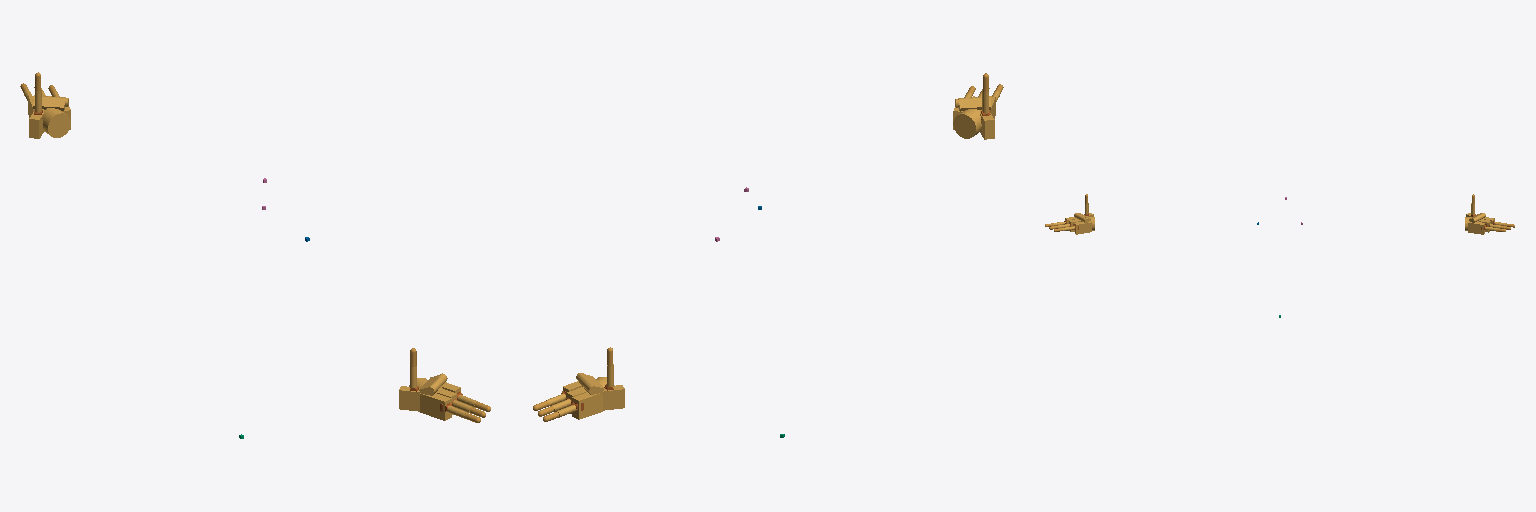
--- Render facts (derived) ---
The picture shows the robot from 3 angles, left to right: view 1: azimuth 30°, elevation 25°; view 2: azimuth 150°, elevation 25°; view 3: azimuth 270°, elevation 25°; orthographic projection.
Robot: atlas — 111 links, 110 joints (52 revolute, 1 continuous, 57 fixed); root link pelvis; default pose: every joint at zero.
Links seen in each view (by area): view 1: right_palm, left_palm; view 2: left_palm, right_palm; view 3: none.
Boxes of the visible links, x1,y1,x2,y2 form: right_palm: (399,373,460,420); left_palm: (28,95,70,138); left_palm: (563,373,624,419); right_palm: (953,96,995,139).
Size in the robot's own frame: 0.2424 by 2.6 by 0.7741 metres.
0 mesh visuals loaded from 31 distinct referenced files (none loaded); not drawn: 31 (reference not matched to a file when rendering).

robot.urdf — atlas:
<?xml version="1.0" ?>
<!-- =================================================================================== -->
<!-- |    This document was autogenerated by xacro from /opt/ros/groovy/share/atlas_description/robots/atlas_v3_sandia_hands.urdf.xacro | -->
<!-- |    EDITING THIS FILE BY HAND IS NOT RECOMMENDED                                 | -->
<!-- =================================================================================== -->
<robot name="atlas" xmlns:xacro="http://www.ros.org/wiki/xacro">
  <link name="l_clav">
    <inertial>
      <mass value="3.45"/>
      <origin rpy="0 -0 0" xyz="0 0.048 0.084"/>
      <inertia ixx="0.011" ixy="0" ixz="0" iyy="0.009" iyz="-0.004" izz="0.004"/>
    </inertial>
    <visual>
      <origin rpy="0 -0 0" xyz="0 0 0"/>
      <geometry>
        <mesh filename="package://atlas_description/meshes_v3/l_clav.DAE" scale="1 1 1"/>
      </geometry>
    </visual>
    <collision>
      <origin rpy="0 -0 0" xyz="0 0 0"/>
      <geometry>
        <mesh filename="package://atlas_description/meshes_v3/l_clav.DAE" scale="1 1 1"/>
      </geometry>
    </collision>
  </link>
  <link name="l_farm">
    <inertial>
      <mass value="3.388"/>
      <origin rpy="0 -0 0" xyz="0 -0.065 0"/>
      <inertia ixx="0.00656" ixy="0" ixz="0" iyy="0.00358" iyz="0" izz="0.00656"/>
    </inertial>
    <visual>
      <origin rpy="0 -0 0" xyz="0 0 0"/>
      <geometry>
        <mesh filename="package://atlas_description/meshes_v3/l_farm.DAE" scale="1 1 1"/>
      </geometry>
    </visual>
    <collision>
      <origin rpy="0 -0 0" xyz="0 0 0"/>
      <geometry>
        <mesh filename="package://atlas_description/meshes_v3/l_farm.DAE" scale="1 1 1"/>
      </geometry>
    </collision>
  </link>
  <link name="l_foot">
    <inertial>
      <mass value="2.05"/>
      <origin rpy="0 -0 0" xyz="0.027 0 -0.067"/>
      <inertia ixx="0.002" ixy="0" ixz="0" iyy="0.007" iyz="0" izz="0.008"/>
    </inertial>
    <visual>
      <origin rpy="0 -0 0" xyz="0 0 0"/>
      <geometry>
        <mesh filename="package://atlas_description/meshes_v3/l_foot.DAE" scale="1 1 1"/>
      </geometry>
    </visual>
    <collision>
      <origin rpy="0 -0 0" xyz="0 0 0"/>
      <geometry>
        <mesh filename="package://atlas_description/meshes_v3/l_foot.DAE" scale="1 1 1"/>
      </geometry>
    </collision>
  </link>
  <link name="l_hand">
    <inertial>
      <mass value="2.509"/>
      <origin rpy="0 -0 0" xyz="0 0 0"/>
      <inertia ixx="0.00265" ixy="0" ixz="0" iyy="0.00446" iyz="0" izz="0.00446"/>
    </inertial>
    <visual>
      <origin rpy="0 -0 0" xyz="0 0 0"/>
      <geometry>
        <mesh filename="package://atlas_description/meshes_v3/l_hand.DAE" scale="1 1 1"/>
      </geometry>
    </visual>
    <collision>
      <origin rpy="0 -0 0" xyz="0 0 0"/>
      <geometry>
        <mesh filename="package://atlas_description/meshes_v3/l_hand.DAE" scale="1 1 1"/>
      </geometry>
    </collision>
  </link>
  <link name="l_larm">
    <inertial>
      <mass value="2.509"/>
      <origin rpy="0 -0 0" xyz="0 0 0"/>
      <inertia ixx="0.00265" ixy="0" ixz="0" iyy="0.00446" iyz="0" izz="0.00446"/>
    </inertial>
    <visual>
      <origin rpy="0 -0 0" xyz="0 0 0"/>
      <geometry>
        <mesh filename="package://atlas_description/meshes_v3/l_elbow_rx.DAE" scale="1 1 1"/>
      </geometry>
    </visual>
    <collision>
      <origin rpy="0 -0 0" xyz="0 0 0"/>
      <geometry>
        <mesh filename="package://atlas_description/meshes_v3/l_elbow_rx.DAE" scale="1 1 1"/>
      </geometry>
    </collision>
  </link>
  <link name="l_lglut">
    <inertial>
      <mass value="0.866"/>
      <origin rpy="0 -0 0" xyz="0.0133341 0.0170484 -0.0312052"/>
      <inertia ixx="0.000691326" ixy="-2.24344e-05" ixz="2.50508e-06" iyy="0.00126856" iyz="0.000137862" izz="0.00106487"/>
    </inertial>
    <visual>
      <origin rpy="0 -0 0" xyz="0 0 0"/>
      <geometry>
        <mesh filename="package://atlas_description/meshes_v3/l_lglut.DAE" scale="1 1 1"/>
      </geometry>
    </visual>
    <collision>
      <origin rpy="0 -0 0" xyz="0 0 0"/>
      <geometry>
        <mesh filename="package://atlas_description/meshes_v3/l_lglut.DAE" scale="1 1 1"/>
      </geometry>
    </collision>
  </link>
  <link name="l_lleg">
    <inertial>
      <mass value="5.479"/>
      <origin rpy="0 -0 0" xyz="0.001 0 -0.187"/>
      <inertia ixx="0.077" ixy="0" ixz="-0.003" iyy="0.076" iyz="0" izz="0.01"/>
    </inertial>
    <visual>
      <origin rpy="0 -0 0" xyz="0 0 0"/>
      <geometry>
        <mesh filename="package://atlas_description/meshes_v3/l_lleg.DAE" scale="1 1 1"/>
      </geometry>
    </visual>
    <collision>
      <origin rpy="0 -0 0" xyz="0 0 0"/>
      <geometry>
        <mesh filename="package://atlas_description/meshes_v3/l_lleg.DAE" scale="1 1 1"/>
      </geometry>
    </collision>
  </link>
  <link name="l_scap">
    <inertial>
      <mass value="3.012"/>
      <origin rpy="0 -0 0" xyz="0 0 0"/>
      <inertia ixx="0.00319" ixy="0" ixz="0" iyy="0.00583" iyz="0" izz="0.00583"/>
    </inertial>
    <visual>
      <origin rpy="0 -0 0" xyz="0 0 0"/>
      <geometry>
        <mesh filename="package://atlas_description/meshes_v3/l_sh_rx.DAE" scale="1 1 1"/>
      </geometry>
    </visual>
    <collision>
      <origin rpy="0 -0 0" xyz="0 0 0"/>
      <geometry>
        <mesh filename="package://atlas_description/meshes_v3/l_sh_rx.DAE" scale="1 1 1"/>
      </geometry>
    </collision>
  </link>
  <link name="l_talus">
    <inertial>
      <mass value="0.125"/>
      <origin rpy="0 -0 0" xyz="0 0 0"/>
      <inertia ixx="1.01674e-05" ixy="0" ixz="0" iyy="8.42775e-06" iyz="0" izz="1.30101e-05"/>
    </inertial>
    <visual>
      <origin rpy="0 -0 0" xyz="0 0 0"/>
      <geometry>
        <mesh filename="package://atlas_description/meshes_v3/l_talus.DAE" scale="1 1 1"/>
      </geometry>
    </visual>
    <collision>
      <origin rpy="0 -0 0" xyz="0 0 0"/>
      <geometry>
        <mesh filename="package://atlas_description/meshes_v3/l_talus.DAE" scale="1 1 1"/>
      </geometry>
    </collision>
  </link>
  <link name="l_uarm">
    <inertial>
      <mass value="3.388"/>
      <origin rpy="0 -0 0" xyz="0 -0.065 0"/>
      <inertia ixx="0.00656" ixy="0" ixz="0" iyy="0.00358" iyz="0" izz="0.00656"/>
    </inertial>
    <visual>
      <origin rpy="0 -0 0" xyz="0 0 0"/>
      <geometry>
        <mesh filename="package://atlas_description/meshes_v3/l_elbow_ry.DAE" scale="1 1 1"/>
      </geometry>
    </visual>
    <collision>
      <origin rpy="0 -0 0" xyz="0 0 0"/>
      <geometry>
        <mesh filename="package://atlas_description/meshes_v3/l_elbow_ry.DAE" scale="1 1 1"/>
      </geometry>
    </collision>
  </link>
  <link name="l_uglut">
    <inertial>
      <mass value="0.648"/>
      <origin rpy="0 -0 0" xyz="0.00529262 -0.00344732 0.00313046"/>
      <inertia ixx="0.00074276" ixy="-3.79607e-08" ixz="-2.79549e-05" iyy="0.000688179" iyz="-3.2735e-08" izz="0.00041242"/>
    </inertial>
    <visual>
      <origin rpy="0 -0 0" xyz="0 0 0"/>
      <geometry>
        <mesh filename="package://atlas_description/meshes_v3/l_uglut.DAE" scale="1 1 1"/>
      </geometry>
    </visual>
    <collision>
      <origin rpy="0 -0 0" xyz="0 0 0"/>
      <geometry>
        <mesh filename="package://atlas_description/meshes_v3/l_uglut.DAE" scale="1 1 1"/>
      </geometry>
    </collision>
  </link>
  <link name="l_uleg">
    <inertial>
      <mass value="9.209"/>
      <origin rpy="0 -0 0" xyz="0 0 -0.21"/>
      <inertia ixx="0.09" ixy="0" ixz="0" iyy="0.09" iyz="0" izz="0.02"/>
    </inertial>
    <visual>
      <origin rpy="0 -0 0" xyz="0 0 0"/>
      <geometry>
        <mesh filename="package://atlas_description/meshes_v3/l_uleg.DAE" scale="1 1 1"/>
      </geometry>
    </visual>
    <collision>
      <origin rpy="0 -0 0" xyz="0 0 0"/>
      <geometry>
        <mesh filename="package://atlas_description/meshes_v3/l_uleg.DAE" scale="1 1 1"/>
      </geometry>
    </collision>
  </link>
  <link name="ltorso">
    <inertial>
      <mass value="2.409"/>
      <origin rpy="0 -0 0" xyz="-0.0112984 -3.15366e-06 0.0746835"/>
      <inertia ixx="0.0039092" ixy="-5.04491e-08" ixz="-0.000342157" iyy="0.00341694" iyz="4.87119e-07" izz="0.00174492"/>
    </inertial>
    <visual>
      <origin rpy="0 -0 0" xyz="0 0 0"/>
      <geometry>
        <mesh filename="package://atlas_description/meshes_v3/ltorso.DAE" scale="1 1 1"/>
      </geometry>
    </visual>
    <collision>
      <origin rpy="0 -0 0" xyz="0 0 0"/>
      <geometry>
        <mesh filename="package://atlas_description/meshes_v3/ltorso.DAE" scale="1 1 1"/>
      </geometry>
    </collision>
  </link>
  <link name="mtorso">
    <inertial>
      <mass value="0.69"/>
      <origin rpy="0 -0 0" xyz="-0.00816266 -0.0131245 0.0305974"/>
      <inertia ixx="0.000454181" ixy="-6.10764e-05" ixz="3.94009e-05" iyy="0.000483282" iyz="5.27463e-05" izz="0.000444215"/>
    </inertial>
    <visual>
      <origin rpy="0 -0 0" xyz="0 0 0"/>
      <geometry>
        <mesh filename="package://atlas_description/meshes_v3/mtorso.DAE" scale="1 1 1"/>
      </geometry>
    </visual>
    <collision>
      <origin rpy="0 -0 0" xyz="0 0 0"/>
      <geometry>
        <mesh filename="package://atlas_description/meshes_v3/mtorso.DAE" scale="1 1 1"/>
      </geometry>
    </collision>
  </link>
  <link name="pelvis">
    <inertial>
      <mass value="17.882"/>
      <origin rpy="0 -0 0" xyz="0.0111 0 0.0271"/>
      <inertia ixx="0.1244" ixy="0.0008" ixz="-0.0007" iyy="0.0958" iyz="-0.0005" izz="0.1167"/>
    </inertial>
    <visual>
      <origin rpy="0 -0 0" xyz="0 0 0"/>
      <geometry>
        <mesh filename="package://atlas_description/meshes_v3/pelvis.DAE" scale="1 1 1"/>
      </geometry>
    </visual>
    <collision>
      <origin rpy="0 -0 0" xyz="0 0 0"/>
      <geometry>
        <mesh filename="package://atlas_description/meshes_v3/pelvis.DAE" scale="1 1 1"/>
      </geometry>
    </collision>
  </link>
  <link name="r_clav">
    <inertial>
      <mass value="3.45"/>
      <origin rpy="0 -0 0" xyz="0 -0.048 0.084"/>
      <inertia ixx="0.011" ixy="0" ixz="0" iyy="0.009" iyz="0.004" izz="0.004"/>
    </inertial>
    <visual>
      <origin rpy="0 -0 0" xyz="0 0 0"/>
      <geometry>
        <mesh filename="package://atlas_description/meshes_v3/r_clav.DAE" scale="1 1 1"/>
      </geometry>
    </visual>
    <collision>
      <origin rpy="0 -0 0" xyz="0 0 0"/>
      <geometry>
        <mesh filename="package://atlas_description/meshes_v3/r_clav.DAE" scale="1 1 1"/>
      </geometry>
    </collision>
  </link>
  <link name="r_farm">
    <inertial>
      <mass value="3.388"/>
      <origin rpy="0 -0 0" xyz="0 0.065 0"/>
      <inertia ixx="0.00656" ixy="0" ixz="0" iyy="0.00358" iyz="0" izz="0.00656"/>
    </inertial>
    <visual>
      <origin rpy="0 -0 0" xyz="0 0 0"/>
      <geometry>
        <mesh filename="package://atlas_description/meshes_v3/r_farm.DAE" scale="1 1 1"/>
      </geometry>
    </visual>
    <collision>
      <origin rpy="0 -0 0" xyz="0 0 0"/>
      <geometry>
        <mesh filename="package://atlas_description/meshes_v3/r_farm.DAE" scale="1 1 1"/>
      </geometry>
    </collision>
  </link>
  <link name="r_foot">
    <inertial>
      <mass value="2.05"/>
      <origin rpy="0 -0 0" xyz="0.027 0 -0.067"/>
      <inertia ixx="0.002" ixy="0" ixz="0" iyy="0.007" iyz="0" izz="0.008"/>
    </inertial>
    <visual>
      <origin rpy="0 -0 0" xyz="0 0 0"/>
      <geometry>
        <mesh filename="package://atlas_description/meshes_v3/r_foot.DAE" scale="1 1 1"/>
      </geometry>
    </visual>
    <collision>
      <origin rpy="0 -0 0" xyz="0 0 0"/>
      <geometry>
        <mesh filename="package://atlas_description/meshes_v3/r_foot.DAE" scale="1 1 1"/>
      </geometry>
    </collision>
  </link>
  <link name="r_hand">
    <inertial>
      <mass value="2.509"/>
      <origin rpy="0 -0 0" xyz="0 0 0"/>
      <inertia ixx="0.00265" ixy="0" ixz="0" iyy="0.00446" iyz="0" izz="0.00446"/>
    </inertial>
    <visual>
      <origin rpy="0 -0 0" xyz="0 0 0"/>
      <geometry>
        <mesh filename="package://atlas_description/meshes_v3/r_hand.DAE" scale="1 1 1"/>
      </geometry>
    </visual>
    <collision>
      <origin rpy="0 -0 0" xyz="0 0 0"/>
      <geometry>
        <mesh filename="package://atlas_description/meshes_v3/r_hand.DAE" scale="1 1 1"/>
      </geometry>
    </collision>
  </link>
  <link name="r_larm">
    <inertial>
      <mass value="2.509"/>
      <origin rpy="0 -0 0" xyz="0 0 0"/>
      <inertia ixx="0.00265" ixy="0" ixz="0" iyy="0.00446" iyz="0" izz="0.00446"/>
    </inertial>
    <visual>
      <origin rpy="0 -0 0" xyz="0 0 0"/>
      <geometry>
        <mesh filename="package://atlas_description/meshes_v3/r_elbow_rx.DAE" scale="1 1 1"/>
      </geometry>
    </visual>
    <collision>
      <origin rpy="0 -0 0" xyz="0 0 0"/>
      <geometry>
        <mesh filename="package://atlas_description/meshes_v3/r_elbow_rx.DAE" scale="1 1 1"/>
      </geometry>
    </collision>
  </link>
  <link name="r_lglut">
    <inertial>
      <mass value="0.866"/>
      <origin rpy="0 -0 0" xyz="0.0133341 -0.0170484 -0.0312052"/>
      <inertia ixx="0.000691326" ixy="2.24344e-05" ixz="2.50508e-06" iyy="0.00126856" iyz="-0.000137862" izz="0.00106487"/>
    </inertial>
    <visual>
      <origin rpy="0 -0 0" xyz="0 0 0"/>
      <geometry>
        <mesh filename="package://atlas_description/meshes_v3/r_lglut.DAE" scale="1 1 1"/>
      </geometry>
    </visual>
    <collision>
      <origin rpy="0 -0 0" xyz="0 0 0"/>
      <geometry>
        <mesh filename="package://atlas_description/meshes_v3/r_lglut.DAE" scale="1 1 1"/>
      </geometry>
    </collision>
  </link>
  <link name="r_lleg">
    <inertial>
      <mass value="5.479"/>
      <origin rpy="0 -0 0" xyz="0.001 0 -0.187"/>
      <inertia ixx="0.077" ixy="-0" ixz="-0.003" iyy="0.076" iyz="-0" izz="0.01"/>
    </inertial>
    <visual>
      <origin rpy="0 -0 0" xyz="0 0 0"/>
      <geometry>
        <mesh filename="package://atlas_description/meshes_v3/r_lleg.DAE" scale="1 1 1"/>
      </geometry>
    </visual>
    <collision>
      <origin rpy="0 -0 0" xyz="0 0 0"/>
      <geometry>
        <mesh filename="package://atlas_description/meshes_v3/r_lleg.DAE" scale="1 1 1"/>
      </geometry>
    </collision>
  </link>
  <link name="r_scap">
    <inertial>
      <mass value="3.012"/>
      <origin rpy="0 -0 0" xyz="0 0 0"/>
      <inertia ixx="0.00319" ixy="0" ixz="0" iyy="0.00583" iyz="0" izz="0.00583"/>
    </inertial>
    <visual>
      <origin rpy="0 -0 0" xyz="0 0 0"/>
      <geometry>
        <mesh filename="package://atlas_description/meshes_v3/r_sh_rx.DAE" scale="1 1 1"/>
      </geometry>
    </visual>
    <collision>
      <origin rpy="0 -0 0" xyz="0 0 0"/>
      <geometry>
        <mesh filename="package://atlas_description/meshes_v3/r_sh_rx.DAE" scale="1 1 1"/>
      </geometry>
    </collision>
  </link>
  <link name="r_talus">
    <inertial>
      <mass value="0.125"/>
      <origin rpy="0 -0 0" xyz="0 0 0"/>
      <inertia ixx="1.01674e-05" ixy="0" ixz="0" iyy="8.42775e-06" iyz="0" izz="1.30101e-05"/>
    </inertial>
    <visual>
      <origin rpy="0 -0 0" xyz="0 0 0"/>
      <geometry>
        <mesh filename="package://atlas_description/meshes_v3/r_talus.DAE" scale="1 1 1"/>
      </geometry>
    </visual>
    <collision>
      <origin rpy="0 -0 0" xyz="0 0 0"/>
      <geometry>
        <mesh filename="package://atlas_description/meshes_v3/r_talus.DAE" scale="1 1 1"/>
      </geometry>
    </collision>
  </link>
  <link name="r_uarm">
    <inertial>
      <mass value="3.388"/>
      <origin rpy="0 -0 0" xyz="0 0.065 0"/>
      <inertia ixx="0.00656" ixy="0" ixz="0" iyy="0.00358" iyz="0" izz="0.00656"/>
    </inertial>
    <visual>
      <origin rpy="0 -0 0" xyz="0 0 0"/>
      <geometry>
        <mesh filename="package://atlas_description/meshes_v3/r_elbow_ry.DAE" scale="1 1 1"/>
      </geometry>
    </visual>
    <collision>
      <origin rpy="0 -0 0" xyz="0 0 0"/>
      <geometry>
        <mesh filename="package://atlas_description/meshes_v3/r_elbow_ry.DAE" scale="1 1 1"/>
      </geometry>
    </collision>
  </link>
  <link name="r_uglut">
    <inertial>
      <mass value="0.648"/>
      <origin rpy="0 -0 0" xyz="0.00529262 0.00344732 0.00313046"/>
      <inertia ixx="0.00074276" ixy="3.79607e-08" ixz="-2.79549e-05" iyy="0.000688179" iyz="3.2735e-08" izz="0.00041242"/>
    </inertial>
    <visual>
      <origin rpy="0 -0 0" xyz="0 0 0"/>
      <geometry>
        <mesh filename="package://atlas_description/meshes_v3/r_uglut.DAE" scale="1 1 1"/>
      </geometry>
    </visual>
    <collision>
      <origin rpy="0 -0 0" xyz="0 0 0"/>
      <geometry>
        <mesh filename="package://atlas_description/meshes_v3/r_uglut.DAE" scale="1 1 1"/>
      </geometry>
    </collision>
  </link>
  <link name="r_uleg">
    <inertial>
      <mass value="9.209"/>
      <origin rpy="0 -0 0" xyz="0 0 -0.21"/>
      <inertia ixx="0.09" ixy="0" ixz="0" iyy="0.09" iyz="0" izz="0.02"/>
    </inertial>
    <visual>
      <origin rpy="0 -0 0" xyz="0 0 0"/>
      <geometry>
        <mesh filename="package://atlas_description/meshes_v3/r_uleg.DAE" scale="1 1 1"/>
      </geometry>
    </visual>
    <collision>
      <origin rpy="0 -0 0" xyz="0 0 0"/>
      <geometry>
        <mesh filename="package://atlas_description/meshes_v3/r_uleg.DAE" scale="1 1 1"/>
      </geometry>
    </collision>
  </link>
  <link name="utorso">
    <inertial>
      <mass value="52.007"/>
      <origin rpy="0 -0 0" xyz="-0.0923 0 0.3"/>
      <inertia ixx="1.466" ixy="0.00362" ixz="0.336" iyy="1.51" iyz="0.001" izz="1.3"/>
    </inertial>
    <visual>
      <origin rpy="0 -0 0" xyz="0 0 0"/>
      <geometry>
        <mesh filename="package://atlas_description/meshes_v3/utorso.DAE" scale="1 1 1"/>
      </geometry>
    </visual>
    <collision>
      <origin rpy="0 -0 0" xyz="0 0 0"/>
      <geometry>
        <mesh filename="package://atlas_description/meshes_v3/utorso.DAE" scale="1 1 1"/>
      </geometry>
    </collision>
    <visual>
      <origin rpy="0 -0 0" xyz="0 0 0"/>
      <geometry>
        <mesh filename="package://atlas_description/meshes_v3/utorso_pack.DAE" scale="1 1 1"/>
      </geometry>
    </visual>
    <collision>
      <origin rpy="0 -0 0" xyz="0 0 0"/>
      <geometry>
        <mesh filename="package://atlas_description/meshes_v3/utorso_pack.DAE" scale="1 1 1"/>
      </geometry>
    </collision>
  </link>
  <joint name="back_bkx" type="revolute">
    <origin rpy="0 -0 0" xyz="0 0 0.05"/>
    <axis xyz="1 0 0"/>
    <parent link="mtorso"/>
    <child link="utorso"/>
    <dynamics damping="0.1" friction="0"/>
    <limit effort="200" lower="-0.698132" upper="0.698132" velocity="12"/>
    <safety_controller k_position="100" k_velocity="100" soft_lower_limit="-10.6981" soft_upper_limit="10.6981"/>
  </joint>
  <joint name="back_bky" type="revolute">
    <origin rpy="0 -0 0" xyz="0 0 0.16197"/>
    <axis xyz="0 1 0"/>
    <parent link="ltorso"/>
    <child link="mtorso"/>
    <dynamics damping="0.1" friction="0"/>
    <limit effort="206.843" lower="-0.610691" upper="0.438427" velocity="12"/>
    <safety_controller k_position="100" k_velocity="100" soft_lower_limit="-10.6107" soft_upper_limit="10.4384"/>
  </joint>
  <joint name="back_bkz" type="revolute">
    <origin rpy="0 -0 0" xyz="-0.0125 0 0"/>
    <axis xyz="0 0 1"/>
    <parent link="pelvis"/>
    <child link="ltorso"/>
    <dynamics damping="0.1" friction="0"/>
    <limit effort="124.016" lower="-0.663225" upper="0.663225" velocity="12"/>
    <safety_controller k_position="100" k_velocity="100" soft_lower_limit="-10.6632" soft_upper_limit="10.6632"/>
  </joint>
  <joint name="l_arm_elx" type="revolute">
    <origin rpy="0 -0 0" xyz="0 0.119 0.00921"/>
    <axis xyz="1 0 0"/>
    <parent link="l_uarm"/>
    <child link="l_larm"/>
    <dynamics damping="0.1" friction="0"/>
    <limit effort="114" lower="0" upper="2.35619" velocity="12"/>
    <safety_controller k_position="100" k_velocity="100" soft_lower_limit="-10" soft_upper_limit="12.3562"/>
  </joint>
  <joint name="l_arm_ely" type="revolute">
    <origin rpy="0 -0 0" xyz="0 0.187 0.016"/>
    <axis xyz="0 1 0"/>
    <parent link="l_scap"/>
    <child link="l_uarm"/>
    <dynamics damping="0.1" friction="0"/>
    <limit effort="114" lower="0" upper="3.14159" velocity="12"/>
    <safety_controller k_position="100" k_velocity="100" soft_lower_limit="-10" soft_upper_limit="13.1416"/>
  </joint>
  <joint name="l_arm_shx" type="revolute">
    <origin rpy="0 -0 0" xyz="0 0.14035 0.19609"/>
    <axis xyz="1 0 0"/>
    <parent link="l_clav"/>
    <child link="l_scap"/>
    <dynamics damping="0.1" friction="0"/>
    <limit effort="170" lower="-1.5708" upper="1.5708" velocity="12"/>
    <safety_controller k_position="100" k_velocity="100" soft_lower_limit="-11.5708" soft_upper_limit="11.5708"/>
  </joint>
  <joint name="l_arm_shy" type="revolute">
    <origin rpy="0 -0 0" xyz="0.06441 0.13866 0.10718"/>
    <axis xyz="0 0.5 0.866025"/>
    <parent link="utorso"/>
    <child link="l_clav"/>
    <dynamics damping="0.1" friction="0"/>
    <limit effort="212" lower="-1.5708" upper="0.785398" velocity="12"/>
    <safety_controller k_position="100" k_velocity="100" soft_lower_limit="-11.5708" soft_upper_limit="10.7854"/>
  </joint>
  <joint name="l_arm_wrx" type="revolute">
    <origin rpy="0 -0 0" xyz="0 0.119 0.00921"/>
    <axis xyz="1 0 0"/>
    <parent link="l_farm"/>
    <child link="l_hand"/>
    <dynamics damping="0.1" friction="0"/>
    <limit effort="60" lower="-1.1781" upper="1.1781" velocity="12"/>
    <safety_controller k_position="100" k_velocity="100" soft_lower_limit="-11.1781" soft_upper_limit="11.1781"/>
  </joint>
  <joint name="l_arm_wry" type="revolute">
    <origin rpy="0 -0 0" xyz="0 0.187 -0.00921"/>
    <axis xyz="0 1 0"/>
    <parent link="l_larm"/>
    <child link="l_farm"/>
    <dynamics damping="0.1" friction="0"/>
    <limit effort="114" lower="0" upper="3.14159" velocity="12"/>
    <safety_controller k_position="100" k_velocity="100" soft_lower_limit="-10" soft_upper_limit="13.1416"/>
  </joint>
  <joint name="l_leg_akx" type="revolute">
    <origin rpy="0 -0 0" xyz="0 0 0"/>
    <axis xyz="1 0 0"/>
    <parent link="l_talus"/>
    <child link="l_foot"/>
    <dynamics damping="0.1" friction="0"/>
    <limit effort="90" lower="-0.8" upper="0.8" velocity="12"/>
    <safety_controller k_position="100" k_velocity="100" soft_lower_limit="-10.8" soft_upper_limit="10.8"/>
  </joint>
  <joint name="l_leg_aky" type="revolute">
    <origin rpy="0 -0 0" xyz="0 0 -0.422"/>
    <axis xyz="0 1 0"/>
    <parent link="l_lleg"/>
    <child link="l_talus"/>
    <dynamics damping="0.1" friction="0"/>
    <limit effort="700" lower="-1" upper="0.7" velocity="12"/>
    <safety_controller k_position="100" k_velocity="100" soft_lower_limit="-11" soft_upper_limit="10.7"/>
  </joint>
  <joint name="l_leg_hpx" type="revolute">
    <origin rpy="0 -0 0" xyz="0 0 0"/>
    <axis xyz="1 0 0"/>
    <parent link="l_uglut"/>
    <child link="l_lglut"/>
    <dynamics damping="0.1" friction="0"/>
    <limit effort="180" lower="-0.523599" upper="0.523599" velocity="12"/>
    <safety_controller k_position="100" k_velocity="100" soft_lower_limit="-10.5236" soft_upper_limit="10.5236"/>
  </joint>
  <joint name="l_leg_hpy" type="revolute">
    <origin rpy="0 -0 0" xyz="0.05 0 -0.05"/>
    <axis xyz="0 1 0"/>
    <parent link="l_lglut"/>
    <child link="l_uleg"/>
    <dynamics damping="0.1" friction="0"/>
    <limit effort="260" lower="-1.72072" upper="0.524821" velocity="12"/>
    <safety_controller k_position="100" k_velocity="100" soft_lower_limit="-11.7207" soft_upper_limit="10.5248"/>
  </joint>
  <joint name="l_leg_hpz" type="revolute">
    <origin rpy="0 -0 0" xyz="0 0.089 0"/>
    <axis xyz="0 0 1"/>
    <parent link="pelvis"/>
    <child link="l_uglut"/>
    <dynamics damping="0.1" friction="0"/>
    <limit effort="110" lower="-0.174533" upper="1.22173" velocity="12"/>
    <safety_controller k_position="100" k_velocity="100" soft_lower_limit="-10.1745" soft_upper_limit="11.2217"/>
  </joint>
  <joint name="l_leg_kny" type="revolute">
    <origin rpy="0 -0 0" xyz="-0.05 0 -0.374"/>
    <axis xyz="0 1 0"/>
    <parent link="l_uleg"/>
    <child link="l_lleg"/>
    <dynamics damping="0.1" friction="0"/>
    <limit effort="220" lower="0" upper="2.38569" velocity="12"/>
    <safety_controller k_position="100" k_velocity="100" soft_lower_limit="-10" soft_upper_limit="12.3857"/>
  </joint>
  <joint name="neck_ry" type="revolute">
    <origin rpy="0 -0 0" xyz="0.21672 0 0.53796"/>
    <axis xyz="0 1 0"/>
    <parent link="utorso"/>
    <child link="head"/>
    <dynamics damping="0.1" friction="0"/>
    <limit effort="5" lower="-0.602139" upper="1.14494" velocity="12"/>
    <safety_controller k_position="100" k_velocity="100" soft_lower_limit="-10.6021" soft_upper_limit="11.1449"/>
  </joint>
  <joint name="r_arm_elx" type="revolute">
    <origin rpy="0 -0 0" xyz="0 -0.119 0.00921"/>
    <axis xyz="1 0 0"/>
    <parent link="r_uarm"/>
    <child link="r_larm"/>
    <dynamics damping="0.1" friction="0"/>
    <limit effort="114" lower="-2.35619" upper="0" velocity="12"/>
    <safety_controller k_position="100" k_velocity="100" soft_lower_limit="-12.3562" soft_upper_limit="10"/>
  </joint>
  <joint name="r_arm_ely" type="revolute">
    <origin rpy="0 -0 0" xyz="0 -0.187 0.016"/>
    <axis xyz="0 1 0"/>
    <parent link="r_scap"/>
    <child link="r_uarm"/>
    <dynamics damping="0.1" friction="0"/>
    <limit effort="114" lower="0" upper="3.14159" velocity="12"/>
    <safety_controller k_position="100" k_velocity="100" soft_lower_limit="-10" soft_upper_limit="13.1416"/>
  </joint>
  <joint name="r_arm_shx" type="revolute">
    <origin rpy="0 -0 0" xyz="0 -0.14035 0.19609"/>
    <axis xyz="1 0 0"/>
    <parent link="r_clav"/>
    <child link="r_scap"/>
    <dynamics damping="0.1" friction="0"/>
    <limit effort="170" lower="-1.5708" upper="1.5708" velocity="12"/>
    <safety_controller k_position="100" k_velocity="100" soft_lower_limit="-11.5708" soft_upper_limit="11.5708"/>
  </joint>
  <joint name="r_arm_shy" type="revolute">
    <origin rpy="0 -0 0" xyz="0.06441 -0.13866 0.10718"/>
    <axis xyz="0 0.5 -0.866025"/>
    <parent link="utorso"/>
    <child link="r_clav"/>
    <dynamics damping="0.1" friction="0"/>
    <limit effort="212" lower="-1.5708" upper="0.785398" velocity="12"/>
    <safety_controller k_position="100" k_velocity="100" soft_lower_limit="-11.5708" soft_upper_limit="10.7854"/>
  </joint>
  <joint name="r_arm_wrx" type="revolute">
    <origin rpy="0 -0 0" xyz="0 -0.119 0.00921"/>
    <axis xyz="1 0 0"/>
    <parent link="r_farm"/>
    <child link="r_hand"/>
    <dynamics damping="0.1" friction="0"/>
    <limit effort="60" lower="-1.1781" upper="1.1781" velocity="12"/>
    <safety_controller k_position="100" k_velocity="100" soft_lower_limit="-11.1781" soft_upper_limit="11.1781"/>
  </joint>
  <joint name="r_arm_wry" type="revolute">
    <origin rpy="0 -0 0" xyz="0 -0.187 -0.00921"/>
    <axis xyz="0 1 0"/>
    <parent link="r_larm"/>
    <child link="r_farm"/>
    <dynamics damping="0.1" friction="0"/>
    <limit effort="114" lower="0" upper="3.14159" velocity="12"/>
    <safety_controller k_position="100" k_velocity="100" soft_lower_limit="-10" soft_upper_limit="13.1416"/>
  </joint>
  <joint name="r_leg_akx" type="revolute">
    <origin rpy="0 -0 0" xyz="0 0 0"/>
    <axis xyz="1 0 0"/>
    <parent link="r_talus"/>
    <child link="r_foot"/>
    <dynamics damping="0.1" friction="0"/>
    <limit effort="90" lower="-0.8" upper="0.8" velocity="12"/>
    <safety_controller k_position="100" k_velocity="100" soft_lower_limit="-10.8" soft_upper_limit="10.8"/>
  </joint>
  <joint name="r_leg_aky" type="revolute">
    <origin rpy="0 -0 0" xyz="0 0 -0.422"/>
    <axis xyz="0 1 0"/>
    <parent link="r_lleg"/>
    <child link="r_talus"/>
    <dynamics damping="0.1" friction="0"/>
    <limit effort="700" lower="-1" upper="0.7" velocity="12"/>
    <safety_controller k_position="100" k_velocity="100" soft_lower_limit="-11" soft_upper_limit="10.7"/>
  </joint>
  <joint name="r_leg_hpx" type="revolute">
    <origin rpy="0 -0 0" xyz="0 0 0"/>
    <axis xyz="1 0 0"/>
    <parent link="r_uglut"/>
    <child link="r_lglut"/>
    <dynamics damping="0.1" friction="0"/>
    <limit effort="180" lower="-0.523599" upper="0.523599" velocity="12"/>
    <safety_controller k_position="100" k_velocity="100" soft_lower_limit="-10.5236" soft_upper_limit="10.5236"/>
  </joint>
  <joint name="r_leg_hpy" type="revolute">
    <origin rpy="0 -0 0" xyz="0.05 0 -0.05"/>
    <axis xyz="0 1 0"/>
    <parent link="r_lglut"/>
    <child link="r_uleg"/>
    <dynamics damping="0.1" friction="0"/>
    <limit effort="260" lower="-1.72072" upper="0.524821" velocity="12"/>
    <safety_controller k_position="100" k_velocity="100" soft_lower_limit="-11.7207" soft_upper_limit="10.5248"/>
  </joint>
  <joint name="r_leg_hpz" type="revolute">
    <origin rpy="0 -0 0" xyz="0 -0.089 0"/>
    <axis xyz="0 0 1"/>
    <parent link="pelvis"/>
    <child link="r_uglut"/>
    <dynamics damping="0.1" friction="0"/>
    <limit effort="110" lower="-1.22173" upper="0.174533" velocity="12"/>
    <safety_controller k_position="100" k_velocity="100" soft_lower_limit="-11.2217" soft_upper_limit="10.1745"/>
  </joint>
  <joint name="r_leg_kny" type="revolute">
    <origin rpy="0 -0 0" xyz="-0.05 0 -0.374"/>
    <axis xyz="0 1 0"/>
    <parent link="r_uleg"/>
    <child link="r_lleg"/>
    <dynamics damping="0.1" friction="0"/>
    <limit effort="220" lower="0" upper="2.38569" velocity="12"/>
    <safety_controller k_position="100" k_velocity="100" soft_lower_limit="-10" soft_upper_limit="12.3857"/>
  </joint>
  <link name="r_situational_awareness_camera_link">
    <inertial>
      <mass value="0.1"/>
      <origin xyz="0 0 0"/>
      <inertia ixx="0.00001" ixy="0" ixz="0" iyy="0.00001" iyz="0" izz="0.00001"/>
    </inertial>
    <visual>
      <origin rpy="0 0 0" xyz="0 0 0"/>
      <geometry>
        <box size="0.01 0.01 0.01"/>
      </geometry>
    </visual>
  </link>
  <joint name="r_situational_awareness_camera_joint" type="fixed">
    <parent link="utorso"/>
    <child link="r_situational_awareness_camera_link"/>
    <!-- if camera points x-forward, bottom towards front of robot, 15 degree yaw forwards from
           lateral (+y) view -->
    <origin rpy="1.57079633 0 -1.30899694" xyz="0.216409 -0.121799 0.406759"/>
  </joint>
  <joint name="r_situational_awareness_camera_optical_frame_joint" type="fixed">
    <origin rpy="-1.5708 0.0 -1.5708" xyz="0 0 0"/>
    <parent link="r_situational_awareness_camera_link"/>
    <child link="r_situational_awareness_camera_optical_frame"/>
  </joint>
  <link name="r_situational_awareness_camera_optical_frame"/>
  <link name="l_situational_awareness_camera_link">
    <inertial>
      <mass value="0.1"/>
      <origin xyz="0 0 0"/>
      <inertia ixx="0.00001" ixy="0" ixz="0" iyy="0.00001" iyz="0" izz="0.00001"/>
    </inertial>
    <visual>
      <origin rpy="0 0 0" xyz="0 0 0"/>
      <geometry>
        <box size="0.01 0.01 0.01"/>
      </geometry>
    </visual>
  </link>
  <joint name="l_situational_awareness_camera_joint" type="fixed">
    <parent link="utorso"/>
    <child link="l_situational_awareness_camera_link"/>
    <!-- if camera points x-forward, bottom towards front of robot, 15 degree yaw forwards from
           lateral (+y) view -->
    <origin rpy="-1.57079633 0 1.30899694" xyz="0.216409 0.121799 0.406759"/>
  </joint>
  <joint name="l_situational_awareness_camera_optical_frame_joint" type="fixed">
    <origin rpy="-1.5708 0.0 -1.5708" xyz="0 0 0"/>
    <parent link="l_situational_awareness_camera_link"/>
    <child link="l_situational_awareness_camera_optical_frame"/>
  </joint>
  <link name="l_situational_awareness_camera_optical_frame"/>
  <link name="right_palm">
    <origin rpy="0 0 0" xyz="0 0 0"/>
    <inertial>
      <mass value="1.303"/>
      <origin xyz="0 0 0"/>
      <!-- solid sphere with 5cm radius -->
      <inertia ixx="0.001303" ixy="0" ixz="0" iyy="0.001303" iyz="0" izz="0.001303"/>
    </inertial>
    <!-- begin simple shape approximation of palm -->
    <collision group="default">
      <origin rpy="0 1.57079632679 -0.9" xyz="0.069 0.016 0.038"/>
      <geometry>
        <cylinder length="0.100" radius="0.013"/>
      </geometry>
    </collision>
    <collision group="other">
      <origin rpy="0.41 0 -0.9" xyz="0.064 0.008 0.021"/>
      <geometry>
        <box size="0.09 .035 .05"/>
      </geometry>
    </collision>
    <collision group="other">
      <origin rpy="0 1.57079632679 0" xyz="0.02 0 -0.005"/>
      <geometry>
        <cylinder length="0.05" radius="0.038"/>
      </geometry>
    </collision>
    <collision group="other">
      <origin rpy="0 0 0.37" xyz="0.11 -0.01 -0.005"/>
      <geometry>
        <box size="0.09 .03 .06"/>
      </geometry>
    </collision>
    <collision group="other">
      <origin rpy="0 0 0.37" xyz="0.09 0.02 -0.005"/>
      <geometry>
        <box size="0.09 .03 .06"/>
      </geometry>
    </collision>
    <collision group="other">
      <origin rpy="0 0 0.37" xyz="0.060 0.05 -0.005"/>
      <geometry>
        <box size="0.09 .03 .06"/>
      </geometry>
    </collision>
    <collision group="other">
      <origin rpy="0 0 0.79" xyz="0.044 -0.04 -0.005"/>
      <geometry>
        <box size="0.09 .03 .06"/>
      </geometry>
    </collision>
    <!--   end simple shape approximation of palm -->
    <!-- begin visual shape approximation of palm -->
    <visual>
      <origin rpy="0 1.57079632679 -0.9" xyz="0.069 0.016 0.038"/>
      <geometry>
        <cylinder length="0.100" radius="0.013"/>
      </geometry>
      <material name="right_sandia_hand_skin">
        <color rgba="0.835 0.655 0.345 1.0"/>
      </material>
    </visual>
    <visual>
      <origin rpy="0.41 0 -0.9" xyz="0.064 0.008 0.021"/>
      <geometry>
        <box size="0.09 .035 .05"/>
      </geometry>
      <material name="right_sandia_hand_skin">
        <color rgba="0.835 0.655 0.345 1.0"/>
      </material>
    </visual>
    <visual>
      <origin rpy="0 1.57079632679 0" xyz="0.02 0 -0.005"/>
      <geometry>
        <cylinder length="0.05" radius="0.038"/>
      </geometry>
      <material name="right_sandia_hand_skin">
        <color rgba="0.835 0.655 0.345 1.0"/>
      </material>
    </visual>
    <visual>
      <origin rpy="0 0 0.37" xyz="0.11 -0.01 -0.005"/>
      <geometry>
        <box size="0.09 .03 .06"/>
      </geometry>
      <material name="right_sandia_hand_skin">
        <color rgba="0.835 0.655 0.345 1.0"/>
      </material>
    </visual>
    <visual>
      <origin rpy="0 0 0.37" xyz="0.09 0.02 -0.005"/>
      <geometry>
        <box size="0.09 .03 .06"/>
      </geometry>
      <material name="right_sandia_hand_skin">
        <color rgba="0.835 0.655 0.345 1.0"/>
      </material>
    </visual>
    <visual>
      <origin rpy="0 0 0.37" xyz="0.060 0.05 -0.005"/>
      <geometry>
        <box size="0.09 .03 .06"/>
      </geometry>
      <material name="right_sandia_hand_skin">
        <color rgba="0.835 0.655 0.345 1.0"/>
      </material>
    </visual>
    <visual>
      <origin rpy="0 0 0.79" xyz="0.044 -0.04 -0.005"/>
      <geometry>
        <box size="0.09 .03 .06"/>
      </geometry>
      <material name="right_sandia_hand_skin">
        <color rgba="0.835 0.655 0.345 1.0"/>
      </material>
    </visual>
    <!--   end visual shape approximation of palm -->
    <!-- begin collision mesh of f2 ->
      <collision group="default">
        <origin xyz="0 0 0" rpy="0 0 0"/>
        <geometry>
          <mesh filename="package://sandia_hand_description/meshes/palm.stl"/>
        </geometry>
      </collision>
      <!-   end collision mesh of f2 -->
    <!-- begin visual mesh of f2    ->
      <visual>
        <origin xyz="0 0 0" rpy="0 0 0"/>
        <geometry>
          <mesh filename="package://sandia_hand_description/meshes/palm.stl"/>
        </geometry>
        <material name="${side}_sandia_hand_skin">
          <color rgba="0.835 0.655 0.345 1.0"/>
        </material>
      </visual>
      <!-   end visual mesh of f2 -->
  </link>
  <joint name="right_sandia_hand_joint" type="fixed">
    <parent link="r_hand"/>
    <child link="right_palm"/>
    <origin rpy="0 0 -1.57079" xyz="-0.00179 -0.13516 0.01176"/>
  </joint>
  <link name="right_f0_base">
    <origin rpy="0 0 0" xyz="0 0 0"/>
    <inertial>
      <!-- total mass is 2.303 kg, palm is about 1.303 kg, distribute the rest into _base -->
      <mass value="0.250"/>
      <!-- (2.303 - 1.303) / 4 -->
      <origin xyz="0 0 0"/>
      <!-- model as sphere with radius of 1cm -->
      <inertia ixx="0.00001" ixy="0" ixz="0" iyy="0.00001" iyz="0" izz="0.00001"/>
    </inertial>
  </link>
  <link name="right_f0_fixed_accel">
    <origin rpy="0 0 0" xyz="0 0 0"/>
    <inertial>
      <mass value="0.01"/>
      <origin xyz="0 0 0"/>
      <inertia ixx="0.000001" ixy="0" ixz="0" iyy="0.000001" iyz="0" izz="0.000001"/>
    </inertial>
  </link>
  <link name="right_f0_0">
    <origin rpy="0 0 0" xyz="0 0 0"/>
    <inertial>
      <mass value="0.106"/>
      <!-- F1 -->
      <origin xyz="0 0 0"/>
      <!-- solid cylinder -->
      <inertia ixx="0.000011925" ixy="0" ixz="0" iyy="0.00011505" iyz="0" izz="0.00011505"/>
    </inertial>
    <!-- begin simple shape approximation of f0 -->
    <collision group="default">
      <origin rpy="0 0 0" xyz="0 0 0.003"/>
      <geometry>
        <cylinder length="0.023" radius="0.015"/>
      </geometry>
    </collision>
    <collision group="other">
      <origin rpy="1.57079632679 0 0" xyz="0.011 0 0.003"/>
      <geometry>
        <cylinder length="0.023" radius="0.01"/>
      </geometry>
    </collision>
    <!--   end simple shape approximation of f0 -->
    <!-- begin visual shape approximation of f0 -->
    <visual>
      <origin rpy="0 0 0" xyz="0 0 0.003"/>
      <geometry>
        <cylinder length="0.023" radius="0.015"/>
      </geometry>
      <material name="right_sandia_hand_skin_suntan">
        <color rgba="0.7 0.4 0.2 1.0"/>
      </material>
    </visual>
    <visual>
      <origin rpy="1.57079632679 0 0" xyz="0.011 0 0.003"/>
      <geometry>
        <cylinder length="0.023" radius="0.01"/>
      </geometry>
      <material name="right_sandia_hand_skin_suntan">
        <color rgba="0.7 0.4 0.2 1.0"/>
      </material>
    </visual>
    <!--   end visual shape approximation of f0 -->
    <!-- begin collision mesh of f0 ->
      <collision group="default">
        <origin xyz="0 0 0" rpy="0 0 0"/>
        <geometry>
          <mesh filename="package://sandia_hand_description/meshes/f0.stl"/>
        </geometry>
      </collision>
      <!-   end collision mesh of f0 -->
    <!-- begin visual mesh of f0 ->
      <visual>
        <origin xyz="0 0 0" rpy="0 0 0"/>
        <geometry>
          <mesh filename="package://sandia_hand_description/meshes/f0.stl"/>
        </geometry>
        <material name="${side}_sandia_hand_skin_suntan">
          <color rgba="0.7 0.4 0.2 1.0"/>
        </material>
      </visual>
      <!-   end visual mesh of f0 -->
  </link>
  <link name="right_f0_1">
    <origin rpy="0 0 0" xyz="0 0 0"/>
    <inertial>
      <mass value="0.033"/>
      <!-- F2 -->
      <origin xyz="0 0 0"/>
      <!-- solid cylinder -->
      <inertia ixx="0.00000165" ixy="0" ixz="0" iyy="0.00001316975" iyz="0" izz="0.00001316975"/>
    </inertial>
    <!-- begin simple shape approximation of f1 -->
    <collision group="default">
      <origin rpy="0 1.57079632679 0" xyz="0.024 0 0"/>
      <geometry>
        <cylinder length="0.067" radius="0.01"/>
      </geometry>
    </collision>
    <!--   end simple shape approximation of f1 -->
    <!-- begin visual shape approximation of f1 -->
    <visual>
      <origin rpy="0 1.57079632679 0" xyz="0.024 0 0"/>
      <geometry>
        <cylinder length="0.067" radius="0.01"/>
      </geometry>
      <material name="right_sandia_hand_skin">
        <color rgba="0.835 0.655 0.345 1.0"/>
      </material>
    </visual>
    <!--   end visual shape approximation of f1 -->
    <!-- begin collision mesh of f1 ->
      <collision group="default">
        <origin xyz="0 0 0" rpy="0 0 0"/>
        <geometry>
          <mesh filename="package://sandia_hand_description/meshes/f1.stl"/>
        </geometry>
      </collision>
      <!-   end collision mesh of f1 -->
    <!-- begin visual mesh of f1 ->
      <visual>
        <origin xyz="0 0 0" rpy="0 0 0"/>
        <geometry>
          <mesh filename="package://sandia_hand_description/meshes/f1.stl"/>
        </geometry>
        <material name="${side}_sandia_hand_skin">
          <color rgba="0.835 0.655 0.345 1.0"/>
        </material>
      </visual>
      <!-   end visual mesh of f1 -->
  </link>
  <link name="right_f0_1_accel">
    <origin rpy="0 0 0" xyz="0 0 0"/>
    <inertial>
      <mass value="0.01"/>
      <origin xyz="0 0 0"/>
      <inertia ixx="0.000001" ixy="0" ixz="0" iyy="0.000001" iyz="0" izz="0.000001"/>
    </inertial>
  </link>
  <link name="right_f0_2">
    <origin rpy="0 0 0" xyz="0 0 0"/>
    <inertial>
      <mass value="0.033"/>
      <!-- F3 -->
      <origin xyz="0 0 0"/>
      <!-- solid cylinder -->
      <inertia ixx="0.0000013365" ixy="0" ixz="0" iyy="0.000009603" iyz="0" izz="0.000009603"/>
    </inertial>
    <!-- begin simple shape approximation of f2 -->
    <collision group="default">
      <origin rpy="0 1.57079632679 0" xyz="0.024 0 0"/>
      <geometry>
        <cylinder length="0.057" radius="0.009"/>
      </geometry>
    </collision>
    <collision group="other">
      <origin rpy="0 0 0" xyz="0.052 0 0"/>
      <geometry>
        <sphere radius="0.009"/>
      </geometry>
    </collision>
    <!--   end simple shape approximation of f2 -->
    <!-- begin visual shape approximation of f2 -->
    <visual>
      <origin rpy="0 1.57079632679 0" xyz="0.024 0 0"/>
      <geometry>
        <cylinder length="0.057" radius="0.009"/>
      </geometry>
      <material name="right_sandia_hand_skin_suntan">
        <color rgba="0.8 0.6 0.3 1.0"/>
      </material>
    </visual>
    <visual>
      <origin rpy="0 0 0" xyz="0.052 0 0"/>
      <geometry>
        <sphere radius="0.009"/>
      </geometry>
      <material name="right_sandia_hand_skin_suntan">
        <color rgba="0.8 0.6 0.3 1.0"/>
      </material>
    </visual>
    <!-- begin collision mesh of f2    ->
      <collision group="default">
        <origin xyz="0 0 0" rpy="0 0 0"/>
        <geometry>
          <mesh filename="package://sandia_hand_description/meshes/f2.stl"/>
        </geometry>
      </collision>
      <!-   end collision mesh of f2 -->
    <!-- begin visual mesh of f2    ->
      <visual>
        <origin xyz="0 0 0" rpy="0 0 0"/>
        <geometry>
          <mesh filename="package://sandia_hand_description/meshes/f2.stl"/>
        </geometry>
        <material name="${side}_sandia_hand_skin_suntan">
          <color rgba="0.8 0.6 0.3 1.0"/>
        </material>
      </visual>
      <!-   end visual mesh of f2 -->
  </link>
  <link name="right_f0_2_accel">
    <origin rpy="0 0 0" xyz="0 0 0"/>
    <inertial>
      <mass value="0.01"/>
      <origin xyz="0 0 0"/>
      <inertia ixx="0.000001" ixy="0" ixz="0" iyy="0.000001" iyz="0" izz="0.000001"/>
    </inertial>
  </link>
  <joint name="right_f0_base" type="fixed">
    <parent link="right_palm"/>
    <child link="right_f0_base"/>
    <origin rpy="0 0 0.3" xyz="0.14 0.0 0"/>
  </joint>
  <joint name="right_f0_j0" type="revolute">
    <axis xyz="0 0 1"/>
    <parent link="right_f0_base"/>
    <child link="right_f0_0"/>
    <limit effort="11" lower="-1.57079632679" upper="1.57079632679" velocity="-1"/>
    <safety_controller k_position="1000.0" k_velocity="1000.0" soft_lower_limit="-11.57079" soft_upper_limit="11.57079"/>
    <dynamics damping="1.0"/>
    <origin rpy="0 0 0" xyz="0 0 0"/>
  </joint>
  <joint name="right_f0_j1" type="revolute">
    <axis xyz="0 0 1"/>
    <parent link="right_f0_0"/>
    <child link="right_f0_1"/>
    <limit effort="28" lower="-1.57079632679" upper="1.57079632679" velocity="-1"/>
    <safety_controller k_position="1000.0" k_velocity="1000.0" soft_lower_limit="-11.57079" soft_upper_limit="11.57079"/>
    <dynamics damping="1.0"/>
    <origin rpy="1.57079632679 0 0" xyz="0.028 0 0"/>
  </joint>
  <joint name="right_f0_j2" type="revolute">
    <axis xyz="0 0 1"/>
    <parent link="right_f0_1"/>
    <child link="right_f0_2"/>
    <origin rpy="0 0 0" xyz="0.05 0 0"/>
    <safety_controller k_position="1000.0" k_velocity="1000.0" soft_lower_limit="-11.57079" soft_upper_limit="11.57079"/>
    <dynamics damping="1.0"/>
    <limit effort="28" lower="-1.57079632679" upper="1.57079632679" velocity="-1"/>
  </joint>
  <joint name="right_f0_fixed_accel" type="fixed">
    <parent link="right_f0_base"/>
    <child link="right_f0_fixed_accel"/>
    <origin rpy="0 0 0" xyz="-0.05 0 0"/>
  </joint>
  <joint name="right_f0_1_accel" type="fixed">
    <parent link="right_f0_1"/>
    <child link="right_f0_1_accel"/>
    <origin rpy="-1.57079632679 0 0" xyz="0.03 0 0"/>
  </joint>
  <joint name="right_f0_2_accel" type="fixed">
    <parent link="right_f0_2"/>
    <child link="right_f0_2_accel"/>
    <origin rpy="-1.57079632679 0 0" xyz="0.04 0 0"/>
  </joint>
  <transmission name="right_f0_j0" type="pr2_mechanism_model/SimpleTransmission">
    <joint name="right_f0_j0"/>
    <actuator name="right_f0_j0_motor"/>
    <mechanicalReduction>1</mechanicalReduction>
  </transmission>
  <transmission name="right_f0_j1" type="pr2_mechanism_model/SimpleTransmission">
    <joint name="right_f0_j1"/>
    <actuator name="right_f0_j1_motor"/>
    <mechanicalReduction>1</mechanicalReduction>
  </transmission>
  <transmission name="right_f0_j2" type="pr2_mechanism_model/SimpleTransmission">
    <joint name="right_f0_j2"/>
    <actuator name="right_f0_j2_motor"/>
    <mechanicalReduction>1</mechanicalReduction>
  </transmission>
  <gazebo reference="right_f0_base">
    <mu1>1.1</mu1>
    <mu2>1.1</mu2>
    <kp>1000000.0</kp>
    <kd>10.0</kd>
    <maxVel>0.1</maxVel>
    <minDepth>0.00</minDepth>
    <maxContacts>1</maxContacts>
    <material>Gazebo/FlatBlack</material>
  </gazebo>
  <gazebo reference="right_f0_0">
    <mu1>1.1</mu1>
    <mu2>1.1</mu2>
    <kp>1000000.0</kp>
    <kd>10.0</kd>
    <maxVel>0.1</maxVel>
    <minDepth>0.00</minDepth>
    <maxContacts>1</maxContacts>
    <material>Gazebo/FlatBlack</material>
  </gazebo>
  <gazebo reference="right_f0_1">
    <mu1>1.1</mu1>
    <mu2>1.1</mu2>
    <kp>1000000.0</kp>
    <kd>10.0</kd>
    <maxVel>0.1</maxVel>
    <minDepth>0.00</minDepth>
    <maxContacts>1</maxContacts>
    <material>Gazebo/FlatBlack</material>
  </gazebo>
  <gazebo reference="right_f0_2">
    <mu1>1.1</mu1>
    <mu2>1.1</mu2>
    <kp>1000000.0</kp>
    <kd>10.0</kd>
    <maxVel>0.1</maxVel>
    <minDepth>0.00</minDepth>
    <maxContacts>1</maxContacts>
    <material>Gazebo/FlatBlack</material>
  </gazebo>
  <gazebo reference="right_f0_j0">
    <cfmDamping>1</cfmDamping>
  </gazebo>
  <gazebo reference="right_f0_j1">
    <cfmDamping>1</cfmDamping>
  </gazebo>
  <gazebo reference="right_f0_j2">
    <cfmDamping>1</cfmDamping>
  </gazebo>
  <link name="right_f1_base">
    <origin rpy="0 0 0" xyz="0 0 0"/>
    <inertial>
      <!-- total mass is 2.303 kg, palm is about 1.303 kg, distribute the rest into _base -->
      <mass value="0.250"/>
      <!-- (2.303 - 1.303) / 4 -->
      <origin xyz="0 0 0"/>
      <!-- model as sphere with radius of 1cm -->
      <inertia ixx="0.00001" ixy="0" ixz="0" iyy="0.00001" iyz="0" izz="0.00001"/>
    </inertial>
  </link>
  <link name="right_f1_fixed_accel">
    <origin rpy="0 0 0" xyz="0 0 0"/>
    <inertial>
      <mass value="0.01"/>
      <origin xyz="0 0 0"/>
      <inertia ixx="0.000001" ixy="0" ixz="0" iyy="0.000001" iyz="0" izz="0.000001"/>
    </inertial>
  </link>
  <link name="right_f1_0">
    <origin rpy="0 0 0" xyz="0 0 0"/>
    <inertial>
      <mass value="0.106"/>
      <!-- F1 -->
      <origin xyz="0 0 0"/>
      <!-- solid cylinder -->
      <inertia ixx="0.000011925" ixy="0" ixz="0" iyy="0.00011505" iyz="0" izz="0.00011505"/>
    </inertial>
    <!-- begin simple shape approximation of f0 -->
    <collision group="default">
      <origin rpy="0 0 0" xyz="0 0 0.003"/>
      <geometry>
        <cylinder length="0.023" radius="0.015"/>
      </geometry>
    </collision>
    <collision group="other">
      <origin rpy="1.57079632679 0 0" xyz="0.011 0 0.003"/>
      <geometry>
        <cylinder length="0.023" radius="0.01"/>
      </geometry>
    </collision>
    <!--   end simple shape approximation of f0 -->
    <!-- begin visual shape approximation of f0 -->
    <visual>
      <origin rpy="0 0 0" xyz="0 0 0.003"/>
      <geometry>
        <cylinder length="0.023" radius="0.015"/>
      </geometry>
      <material name="right_sandia_hand_skin_suntan">
        <color rgba="0.7 0.4 0.2 1.0"/>
      </material>
    </visual>
    <visual>
      <origin rpy="1.57079632679 0 0" xyz="0.011 0 0.003"/>
      <geometry>
        <cylinder length="0.023" radius="0.01"/>
      </geometry>
      <material name="right_sandia_hand_skin_suntan">
        <color rgba="0.7 0.4 0.2 1.0"/>
      </material>
    </visual>
    <!--   end visual shape approximation of f0 -->
    <!-- begin collision mesh of f0 ->
      <collision group="default">
        <origin xyz="0 0 0" rpy="0 0 0"/>
        <geometry>
          <mesh filename="package://sandia_hand_description/meshes/f0.stl"/>
        </geometry>
      </collision>
      <!-   end collision mesh of f0 -->
    <!-- begin visual mesh of f0 ->
      <visual>
        <origin xyz="0 0 0" rpy="0 0 0"/>
        <geometry>
          <mesh filename="package://sandia_hand_description/meshes/f0.stl"/>
        </geometry>
        <material name="${side}_sandia_hand_skin_suntan">
          <color rgba="0.7 0.4 0.2 1.0"/>
        </material>
      </visual>
      <!-   end visual mesh of f0 -->
  </link>
  <link name="right_f1_1">
    <origin rpy="0 0 0" xyz="0 0 0"/>
    <inertial>
      <mass value="0.033"/>
      <!-- F2 -->
      <origin xyz="0 0 0"/>
      <!-- solid cylinder -->
      <inertia ixx="0.00000165" ixy="0" ixz="0" iyy="0.00001316975" iyz="0" izz="0.00001316975"/>
    </inertial>
    <!-- begin simple shape approximation of f1 -->
    <collision group="default">
      <origin rpy="0 1.57079632679 0" xyz="0.024 0 0"/>
      <geometry>
        <cylinder length="0.067" radius="0.01"/>
      </geometry>
    </collision>
    <!--   end simple shape approximation of f1 -->
    <!-- begin visual shape approximation of f1 -->
    <visual>
      <origin rpy="0 1.57079632679 0" xyz="0.024 0 0"/>
      <geometry>
        <cylinder length="0.067" radius="0.01"/>
      </geometry>
      <material name="right_sandia_hand_skin">
        <color rgba="0.835 0.655 0.345 1.0"/>
      </material>
    </visual>
    <!--   end visual shape approximation of f1 -->
    <!-- begin collision mesh of f1 ->
      <collision group="default">
        <origin xyz="0 0 0" rpy="0 0 0"/>
        <geometry>
          <mesh filename="package://sandia_hand_description/meshes/f1.stl"/>
        </geometry>
      </collision>
      <!-   end collision mesh of f1 -->
    <!-- begin visual mesh of f1 ->
      <visual>
        <origin xyz="0 0 0" rpy="0 0 0"/>
        <geometry>
          <mesh filename="package://sandia_hand_description/meshes/f1.stl"/>
        </geometry>
        <material name="${side}_sandia_hand_skin">
          <color rgba="0.835 0.655 0.345 1.0"/>
        </material>
      </visual>
      <!-   end visual mesh of f1 -->
  </link>
  <link name="right_f1_1_accel">
    <origin rpy="0 0 0" xyz="0 0 0"/>
    <inertial>
      <mass value="0.01"/>
      <origin xyz="0 0 0"/>
      <inertia ixx="0.000001" ixy="0" ixz="0" iyy="0.000001" iyz="0" izz="0.000001"/>
    </inertial>
  </link>
  <link name="right_f1_2">
    <origin rpy="0 0 0" xyz="0 0 0"/>
    <inertial>
      <mass value="0.033"/>
      <!-- F3 -->
      <origin xyz="0 0 0"/>
      <!-- solid cylinder -->
      <inertia ixx="0.0000013365" ixy="0" ixz="0" iyy="0.000009603" iyz="0" izz="0.000009603"/>
    </inertial>
    <!-- begin simple shape approximation of f2 -->
    <collision group="default">
      <origin rpy="0 1.57079632679 0" xyz="0.024 0 0"/>
      <geometry>
        <cylinder length="0.057" radius="0.009"/>
      </geometry>
    </collision>
    <collision group="other">
      <origin rpy="0 0 0" xyz="0.052 0 0"/>
      <geometry>
        <sphere radius="0.009"/>
      </geometry>
    </collision>
    <!--   end simple shape approximation of f2 -->
    <!-- begin visual shape approximation of f2 -->
    <visual>
      <origin rpy="0 1.57079632679 0" xyz="0.024 0 0"/>
      <geometry>
        <cylinder length="0.057" radius="0.009"/>
      </geometry>
      <material name="right_sandia_hand_skin_suntan">
        <color rgba="0.8 0.6 0.3 1.0"/>
      </material>
    </visual>
    <visual>
      <origin rpy="0 0 0" xyz="0.052 0 0"/>
      <geometry>
        <sphere radius="0.009"/>
      </geometry>
      <material name="right_sandia_hand_skin_suntan">
        <color rgba="0.8 0.6 0.3 1.0"/>
      </material>
    </visual>
    <!-- begin collision mesh of f2    ->
      <collision group="default">
        <origin xyz="0 0 0" rpy="0 0 0"/>
        <geometry>
          <mesh filename="package://sandia_hand_description/meshes/f2.stl"/>
        </geometry>
      </collision>
      <!-   end collision mesh of f2 -->
    <!-- begin visual mesh of f2    ->
      <visual>
        <origin xyz="0 0 0" rpy="0 0 0"/>
        <geometry>
          <mesh filename="package://sandia_hand_description/meshes/f2.stl"/>
        </geometry>
        <material name="${side}_sandia_hand_skin_suntan">
          <color rgba="0.8 0.6 0.3 1.0"/>
        </material>
      </visual>
      <!-   end visual mesh of f2 -->
  </link>
  <link name="right_f1_2_accel">
    <origin rpy="0 0 0" xyz="0 0 0"/>
    <inertial>
      <mass value="0.01"/>
      <origin xyz="0 0 0"/>
      <inertia ixx="0.000001" ixy="0" ixz="0" iyy="0.000001" iyz="0" izz="0.000001"/>
    </inertial>
  </link>
  <joint name="right_f1_base" type="fixed">
    <parent link="right_palm"/>
    <child link="right_f1_base"/>
    <origin rpy="0 0 0.3" xyz="0.115 0.03122 0"/>
  </joint>
  <joint name="right_f1_j0" type="revolute">
    <axis xyz="0 0 1"/>
    <parent link="right_f1_base"/>
    <child link="right_f1_0"/>
    <limit effort="11" lower="-1.57079632679" upper="1.57079632679" velocity="-1"/>
    <safety_controller k_position="1000.0" k_velocity="1000.0" soft_lower_limit="-11.57079" soft_upper_limit="11.57079"/>
    <dynamics damping="1.0"/>
    <origin rpy="0 0 0" xyz="0 0 0"/>
  </joint>
  <joint name="right_f1_j1" type="revolute">
    <axis xyz="0 0 1"/>
    <parent link="right_f1_0"/>
    <child link="right_f1_1"/>
    <limit effort="28" lower="-1.57079632679" upper="1.57079632679" velocity="-1"/>
    <safety_controller k_position="1000.0" k_velocity="1000.0" soft_lower_limit="-11.57079" soft_upper_limit="11.57079"/>
    <dynamics damping="1.0"/>
    <origin rpy="1.57079632679 0 0" xyz="0.028 0 0"/>
  </joint>
  <joint name="right_f1_j2" type="revolute">
    <axis xyz="0 0 1"/>
    <parent link="right_f1_1"/>
    <child link="right_f1_2"/>
    <origin rpy="0 0 0" xyz="0.05 0 0"/>
    <safety_controller k_position="1000.0" k_velocity="1000.0" soft_lower_limit="-11.57079" soft_upper_limit="11.57079"/>
    <dynamics damping="1.0"/>
    <limit effort="28" lower="-1.57079632679" upper="1.57079632679" velocity="-1"/>
  </joint>
  <joint name="right_f1_fixed_accel" type="fixed">
    <parent link="right_f1_base"/>
    <child link="right_f1_fixed_accel"/>
    <origin rpy="0 0 0" xyz="-0.05 0 0"/>
  </joint>
  <joint name="right_f1_1_accel" type="fixed">
    <parent link="right_f1_1"/>
    <child link="right_f1_1_accel"/>
    <origin rpy="-1.57079632679 0 0" xyz="0.03 0 0"/>
  </joint>
  <joint name="right_f1_2_accel" type="fixed">
    <parent link="right_f1_2"/>
    <child link="right_f1_2_accel"/>
    <origin rpy="-1.57079632679 0 0" xyz="0.04 0 0"/>
  </joint>
  <transmission name="right_f1_j0" type="pr2_mechanism_model/SimpleTransmission">
    <joint name="right_f1_j0"/>
    <actuator name="right_f1_j0_motor"/>
    <mechanicalReduction>1</mechanicalReduction>
  </transmission>
  <transmission name="right_f1_j1" type="pr2_mechanism_model/SimpleTransmission">
    <joint name="right_f1_j1"/>
    <actuator name="right_f1_j1_motor"/>
    <mechanicalReduction>1</mechanicalReduction>
  </transmission>
  <transmission name="right_f1_j2" type="pr2_mechanism_model/SimpleTransmission">
    <joint name="right_f1_j2"/>
    <actuator name="right_f1_j2_motor"/>
    <mechanicalReduction>1</mechanicalReduction>
  </transmission>
  <gazebo reference="right_f1_base">
    <mu1>1.1</mu1>
    <mu2>1.1</mu2>
    <kp>1000000.0</kp>
    <kd>10.0</kd>
    <maxVel>0.1</maxVel>
    <minDepth>0.00</minDepth>
    <maxContacts>1</maxContacts>
    <material>Gazebo/FlatBlack</material>
  </gazebo>
  <gazebo reference="right_f1_0">
    <mu1>1.1</mu1>
    <mu2>1.1</mu2>
    <kp>1000000.0</kp>
    <kd>10.0</kd>
    <maxVel>0.1</maxVel>
    <minDepth>0.00</minDepth>
    <maxContacts>1</maxContacts>
    <material>Gazebo/FlatBlack</material>
  </gazebo>
  <gazebo reference="right_f1_1">
    <mu1>1.1</mu1>
    <mu2>1.1</mu2>
    <kp>1000000.0</kp>
    <kd>10.0</kd>
    <maxVel>0.1</maxVel>
    <minDepth>0.00</minDepth>
    <maxContacts>1</maxContacts>
    <material>Gazebo/FlatBlack</material>
  </gazebo>
  <gazebo reference="right_f1_2">
    <mu1>1.1</mu1>
    <mu2>1.1</mu2>
    <kp>1000000.0</kp>
    <kd>10.0</kd>
    <maxVel>0.1</maxVel>
    <minDepth>0.00</minDepth>
    <maxContacts>1</maxContacts>
    <material>Gazebo/FlatBlack</material>
  </gazebo>
  <gazebo reference="right_f1_j0">
    <cfmDamping>1</cfmDamping>
  </gazebo>
  <gazebo reference="right_f1_j1">
    <cfmDamping>1</cfmDamping>
  </gazebo>
  <gazebo reference="right_f1_j2">
    <cfmDamping>1</cfmDamping>
  </gazebo>
  <link name="right_f2_base">
    <origin rpy="0 0 0" xyz="0 0 0"/>
    <inertial>
      <!-- total mass is 2.303 kg, palm is about 1.303 kg, distribute the rest into _base -->
      <mass value="0.250"/>
      <!-- (2.303 - 1.303) / 4 -->
      <origin xyz="0 0 0"/>
      <!-- model as sphere with radius of 1cm -->
      <inertia ixx="0.00001" ixy="0" ixz="0" iyy="0.00001" iyz="0" izz="0.00001"/>
    </inertial>
  </link>
  <link name="right_f2_fixed_accel">
    <origin rpy="0 0 0" xyz="0 0 0"/>
    <inertial>
      <mass value="0.01"/>
      <origin xyz="0 0 0"/>
      <inertia ixx="0.000001" ixy="0" ixz="0" iyy="0.000001" iyz="0" izz="0.000001"/>
    </inertial>
  </link>
  <link name="right_f2_0">
    <origin rpy="0 0 0" xyz="0 0 0"/>
    <inertial>
      <mass value="0.106"/>
      <!-- F1 -->
      <origin xyz="0 0 0"/>
      <!-- solid cylinder -->
      <inertia ixx="0.000011925" ixy="0" ixz="0" iyy="0.00011505" iyz="0" izz="0.00011505"/>
    </inertial>
    <!-- begin simple shape approximation of f0 -->
    <collision group="default">
      <origin rpy="0 0 0" xyz="0 0 0.003"/>
      <geometry>
        <cylinder length="0.023" radius="0.015"/>
      </geometry>
    </collision>
    <collision group="other">
      <origin rpy="1.57079632679 0 0" xyz="0.011 0 0.003"/>
      <geometry>
        <cylinder length="0.023" radius="0.01"/>
      </geometry>
    </collision>
    <!--   end simple shape approximation of f0 -->
    <!-- begin visual shape approximation of f0 -->
    <visual>
      <origin rpy="0 0 0" xyz="0 0 0.003"/>
      <geometry>
        <cylinder length="0.023" radius="0.015"/>
      </geometry>
      <material name="right_sandia_hand_skin_suntan">
        <color rgba="0.7 0.4 0.2 1.0"/>
      </material>
    </visual>
    <visual>
      <origin rpy="1.57079632679 0 0" xyz="0.011 0 0.003"/>
      <geometry>
        <cylinder length="0.023" radius="0.01"/>
      </geometry>
      <material name="right_sandia_hand_skin_suntan">
        <color rgba="0.7 0.4 0.2 1.0"/>
      </material>
    </visual>
    <!--   end visual shape approximation of f0 -->
    <!-- begin collision mesh of f0 ->
      <collision group="default">
        <origin xyz="0 0 0" rpy="0 0 0"/>
        <geometry>
          <mesh filename="package://sandia_hand_description/meshes/f0.stl"/>
        </geometry>
      </collision>
      <!-   end collision mesh of f0 -->
    <!-- begin visual mesh of f0 ->
      <visual>
        <origin xyz="0 0 0" rpy="0 0 0"/>
        <geometry>
          <mesh filename="package://sandia_hand_description/meshes/f0.stl"/>
        </geometry>
        <material name="${side}_sandia_hand_skin_suntan">
          <color rgba="0.7 0.4 0.2 1.0"/>
        </material>
      </visual>
      <!-   end visual mesh of f0 -->
  </link>
  <link name="right_f2_1">
    <origin rpy="0 0 0" xyz="0 0 0"/>
    <inertial>
      <mass value="0.033"/>
      <!-- F2 -->
      <origin xyz="0 0 0"/>
      <!-- solid cylinder -->
      <inertia ixx="0.00000165" ixy="0" ixz="0" iyy="0.00001316975" iyz="0" izz="0.00001316975"/>
    </inertial>
    <!-- begin simple shape approximation of f1 -->
    <collision group="default">
      <origin rpy="0 1.57079632679 0" xyz="0.024 0 0"/>
      <geometry>
        <cylinder length="0.067" radius="0.01"/>
      </geometry>
    </collision>
    <!--   end simple shape approximation of f1 -->
    <!-- begin visual shape approximation of f1 -->
    <visual>
      <origin rpy="0 1.57079632679 0" xyz="0.024 0 0"/>
      <geometry>
        <cylinder length="0.067" radius="0.01"/>
      </geometry>
      <material name="right_sandia_hand_skin">
        <color rgba="0.835 0.655 0.345 1.0"/>
      </material>
    </visual>
    <!--   end visual shape approximation of f1 -->
    <!-- begin collision mesh of f1 ->
      <collision group="default">
        <origin xyz="0 0 0" rpy="0 0 0"/>
        <geometry>
          <mesh filename="package://sandia_hand_description/meshes/f1.stl"/>
        </geometry>
      </collision>
      <!-   end collision mesh of f1 -->
    <!-- begin visual mesh of f1 ->
      <visual>
        <origin xyz="0 0 0" rpy="0 0 0"/>
        <geometry>
          <mesh filename="package://sandia_hand_description/meshes/f1.stl"/>
        </geometry>
        <material name="${side}_sandia_hand_skin">
          <color rgba="0.835 0.655 0.345 1.0"/>
        </material>
      </visual>
      <!-   end visual mesh of f1 -->
  </link>
  <link name="right_f2_1_accel">
    <origin rpy="0 0 0" xyz="0 0 0"/>
    <inertial>
      <mass value="0.01"/>
      <origin xyz="0 0 0"/>
      <inertia ixx="0.000001" ixy="0" ixz="0" iyy="0.000001" iyz="0" izz="0.000001"/>
    </inertial>
  </link>
  <link name="right_f2_2">
    <origin rpy="0 0 0" xyz="0 0 0"/>
    <inertial>
      <mass value="0.033"/>
      <!-- F3 -->
      <origin xyz="0 0 0"/>
      <!-- solid cylinder -->
      <inertia ixx="0.0000013365" ixy="0" ixz="0" iyy="0.000009603" iyz="0" izz="0.000009603"/>
    </inertial>
    <!-- begin simple shape approximation of f2 -->
    <collision group="default">
      <origin rpy="0 1.57079632679 0" xyz="0.024 0 0"/>
      <geometry>
        <cylinder length="0.057" radius="0.009"/>
      </geometry>
    </collision>
    <collision group="other">
      <origin rpy="0 0 0" xyz="0.052 0 0"/>
      <geometry>
        <sphere radius="0.009"/>
      </geometry>
    </collision>
    <!--   end simple shape approximation of f2 -->
    <!-- begin visual shape approximation of f2 -->
    <visual>
      <origin rpy="0 1.57079632679 0" xyz="0.024 0 0"/>
      <geometry>
        <cylinder length="0.057" radius="0.009"/>
      </geometry>
      <material name="right_sandia_hand_skin_suntan">
        <color rgba="0.8 0.6 0.3 1.0"/>
      </material>
    </visual>
    <visual>
      <origin rpy="0 0 0" xyz="0.052 0 0"/>
      <geometry>
        <sphere radius="0.009"/>
      </geometry>
      <material name="right_sandia_hand_skin_suntan">
        <color rgba="0.8 0.6 0.3 1.0"/>
      </material>
    </visual>
    <!-- begin collision mesh of f2    ->
      <collision group="default">
        <origin xyz="0 0 0" rpy="0 0 0"/>
        <geometry>
          <mesh filename="package://sandia_hand_description/meshes/f2.stl"/>
        </geometry>
      </collision>
      <!-   end collision mesh of f2 -->
    <!-- begin visual mesh of f2    ->
      <visual>
        <origin xyz="0 0 0" rpy="0 0 0"/>
        <geometry>
          <mesh filename="package://sandia_hand_description/meshes/f2.stl"/>
        </geometry>
        <material name="${side}_sandia_hand_skin_suntan">
          <color rgba="0.8 0.6 0.3 1.0"/>
        </material>
      </visual>
      <!-   end visual mesh of f2 -->
  </link>
  <link name="right_f2_2_accel">
    <origin rpy="0 0 0" xyz="0 0 0"/>
    <inertial>
      <mass value="0.01"/>
      <origin xyz="0 0 0"/>
      <inertia ixx="0.000001" ixy="0" ixz="0" iyy="0.000001" iyz="0" izz="0.000001"/>
    </inertial>
  </link>
  <joint name="right_f2_base" type="fixed">
    <parent link="right_palm"/>
    <child link="right_f2_base"/>
    <origin rpy="0 0 0.3" xyz="0.09 0.06245 0"/>
  </joint>
  <joint name="right_f2_j0" type="revolute">
    <axis xyz="0 0 1"/>
    <parent link="right_f2_base"/>
    <child link="right_f2_0"/>
    <limit effort="11" lower="-1.57079632679" upper="1.57079632679" velocity="-1"/>
    <safety_controller k_position="1000.0" k_velocity="1000.0" soft_lower_limit="-11.57079" soft_upper_limit="11.57079"/>
    <dynamics damping="1.0"/>
    <origin rpy="0 0 0" xyz="0 0 0"/>
  </joint>
  <joint name="right_f2_j1" type="revolute">
    <axis xyz="0 0 1"/>
    <parent link="right_f2_0"/>
    <child link="right_f2_1"/>
    <limit effort="28" lower="-1.57079632679" upper="1.57079632679" velocity="-1"/>
    <safety_controller k_position="1000.0" k_velocity="1000.0" soft_lower_limit="-11.57079" soft_upper_limit="11.57079"/>
    <dynamics damping="1.0"/>
    <origin rpy="1.57079632679 0 0" xyz="0.028 0 0"/>
  </joint>
  <joint name="right_f2_j2" type="revolute">
    <axis xyz="0 0 1"/>
    <parent link="right_f2_1"/>
    <child link="right_f2_2"/>
    <origin rpy="0 0 0" xyz="0.05 0 0"/>
    <safety_controller k_position="1000.0" k_velocity="1000.0" soft_lower_limit="-11.57079" soft_upper_limit="11.57079"/>
    <dynamics damping="1.0"/>
    <limit effort="28" lower="-1.57079632679" upper="1.57079632679" velocity="-1"/>
  </joint>
  <joint name="right_f2_fixed_accel" type="fixed">
    <parent link="right_f2_base"/>
    <child link="right_f2_fixed_accel"/>
    <origin rpy="0 0 0" xyz="-0.05 0 0"/>
  </joint>
  <joint name="right_f2_1_accel" type="fixed">
    <parent link="right_f2_1"/>
    <child link="right_f2_1_accel"/>
    <origin rpy="-1.57079632679 0 0" xyz="0.03 0 0"/>
  </joint>
  <joint name="right_f2_2_accel" type="fixed">
    <parent link="right_f2_2"/>
    <child link="right_f2_2_accel"/>
    <origin rpy="-1.57079632679 0 0" xyz="0.04 0 0"/>
  </joint>
  <transmission name="right_f2_j0" type="pr2_mechanism_model/SimpleTransmission">
    <joint name="right_f2_j0"/>
    <actuator name="right_f2_j0_motor"/>
    <mechanicalReduction>1</mechanicalReduction>
  </transmission>
  <transmission name="right_f2_j1" type="pr2_mechanism_model/SimpleTransmission">
    <joint name="right_f2_j1"/>
    <actuator name="right_f2_j1_motor"/>
    <mechanicalReduction>1</mechanicalReduction>
  </transmission>
  <transmission name="right_f2_j2" type="pr2_mechanism_model/SimpleTransmission">
    <joint name="right_f2_j2"/>
    <actuator name="right_f2_j2_motor"/>
    <mechanicalReduction>1</mechanicalReduction>
  </transmission>
  <gazebo reference="right_f2_base">
    <mu1>1.1</mu1>
    <mu2>1.1</mu2>
    <kp>1000000.0</kp>
    <kd>10.0</kd>
    <maxVel>0.1</maxVel>
    <minDepth>0.00</minDepth>
    <maxContacts>1</maxContacts>
    <material>Gazebo/FlatBlack</material>
  </gazebo>
  <gazebo reference="right_f2_0">
    <mu1>1.1</mu1>
    <mu2>1.1</mu2>
    <kp>1000000.0</kp>
    <kd>10.0</kd>
    <maxVel>0.1</maxVel>
    <minDepth>0.00</minDepth>
    <maxContacts>1</maxContacts>
    <material>Gazebo/FlatBlack</material>
  </gazebo>
  <gazebo reference="right_f2_1">
    <mu1>1.1</mu1>
    <mu2>1.1</mu2>
    <kp>1000000.0</kp>
    <kd>10.0</kd>
    <maxVel>0.1</maxVel>
    <minDepth>0.00</minDepth>
    <maxContacts>1</maxContacts>
    <material>Gazebo/FlatBlack</material>
  </gazebo>
  <gazebo reference="right_f2_2">
    <mu1>1.1</mu1>
    <mu2>1.1</mu2>
    <kp>1000000.0</kp>
    <kd>10.0</kd>
    <maxVel>0.1</maxVel>
    <minDepth>0.00</minDepth>
    <maxContacts>1</maxContacts>
    <material>Gazebo/FlatBlack</material>
  </gazebo>
  <gazebo reference="right_f2_j0">
    <cfmDamping>1</cfmDamping>
  </gazebo>
  <gazebo reference="right_f2_j1">
    <cfmDamping>1</cfmDamping>
  </gazebo>
  <gazebo reference="right_f2_j2">
    <cfmDamping>1</cfmDamping>
  </gazebo>
  <link name="right_f3_base">
    <origin rpy="0 0 0" xyz="0 0 0"/>
    <inertial>
      <!-- total mass is 2.303 kg, palm is about 1.303 kg, distribute the rest into _base -->
      <mass value="0.250"/>
      <!-- (2.303 - 1.303) / 4 -->
      <origin xyz="0 0 0"/>
      <!-- model as sphere with radius of 1cm -->
      <inertia ixx="0.00001" ixy="0" ixz="0" iyy="0.00001" iyz="0" izz="0.00001"/>
    </inertial>
  </link>
  <link name="right_f3_fixed_accel">
    <origin rpy="0 0 0" xyz="0 0 0"/>
    <inertial>
      <mass value="0.01"/>
      <origin xyz="0 0 0"/>
      <inertia ixx="0.000001" ixy="0" ixz="0" iyy="0.000001" iyz="0" izz="0.000001"/>
    </inertial>
  </link>
  <link name="right_f3_0">
    <origin rpy="0 0 0" xyz="0 0 0"/>
    <inertial>
      <mass value="0.106"/>
      <!-- F1 -->
      <origin xyz="0 0 0"/>
      <!-- solid cylinder -->
      <inertia ixx="0.000011925" ixy="0" ixz="0" iyy="0.00011505" iyz="0" izz="0.00011505"/>
    </inertial>
    <!-- begin simple shape approximation of f0 -->
    <collision group="default">
      <origin rpy="0 0 0" xyz="0 0 0.003"/>
      <geometry>
        <cylinder length="0.023" radius="0.015"/>
      </geometry>
    </collision>
    <collision group="other">
      <origin rpy="1.57079632679 0 0" xyz="0.011 0 0.003"/>
      <geometry>
        <cylinder length="0.023" radius="0.01"/>
      </geometry>
    </collision>
    <!--   end simple shape approximation of f0 -->
    <!-- begin visual shape approximation of f0 -->
    <visual>
      <origin rpy="0 0 0" xyz="0 0 0.003"/>
      <geometry>
        <cylinder length="0.023" radius="0.015"/>
      </geometry>
      <material name="right_sandia_hand_skin_suntan">
        <color rgba="0.7 0.4 0.2 1.0"/>
      </material>
    </visual>
    <visual>
      <origin rpy="1.57079632679 0 0" xyz="0.011 0 0.003"/>
      <geometry>
        <cylinder length="0.023" radius="0.01"/>
      </geometry>
      <material name="right_sandia_hand_skin_suntan">
        <color rgba="0.7 0.4 0.2 1.0"/>
      </material>
    </visual>
    <!--   end visual shape approximation of f0 -->
    <!-- begin collision mesh of f0 ->
      <collision group="default">
        <origin xyz="0 0 0" rpy="0 0 0"/>
        <geometry>
          <mesh filename="package://sandia_hand_description/meshes/f0.stl"/>
        </geometry>
      </collision>
      <!-   end collision mesh of f0 -->
    <!-- begin visual mesh of f0 ->
      <visual>
        <origin xyz="0 0 0" rpy="0 0 0"/>
        <geometry>
          <mesh filename="package://sandia_hand_description/meshes/f0.stl"/>
        </geometry>
        <material name="${side}_sandia_hand_skin_suntan">
          <color rgba="0.7 0.4 0.2 1.0"/>
        </material>
      </visual>
      <!-   end visual mesh of f0 -->
  </link>
  <link name="right_f3_1">
    <origin rpy="0 0 0" xyz="0 0 0"/>
    <inertial>
      <mass value="0.033"/>
      <!-- F2 -->
      <origin xyz="0 0 0"/>
      <!-- solid cylinder -->
      <inertia ixx="0.00000165" ixy="0" ixz="0" iyy="0.00001316975" iyz="0" izz="0.00001316975"/>
    </inertial>
    <!-- begin simple shape approximation of f1 -->
    <collision group="default">
      <origin rpy="0 1.57079632679 0" xyz="0.024 0 0"/>
      <geometry>
        <cylinder length="0.067" radius="0.01"/>
      </geometry>
    </collision>
    <!--   end simple shape approximation of f1 -->
    <!-- begin visual shape approximation of f1 -->
    <visual>
      <origin rpy="0 1.57079632679 0" xyz="0.024 0 0"/>
      <geometry>
        <cylinder length="0.067" radius="0.01"/>
      </geometry>
      <material name="right_sandia_hand_skin">
        <color rgba="0.835 0.655 0.345 1.0"/>
      </material>
    </visual>
    <!--   end visual shape approximation of f1 -->
    <!-- begin collision mesh of f1 ->
      <collision group="default">
        <origin xyz="0 0 0" rpy="0 0 0"/>
        <geometry>
          <mesh filename="package://sandia_hand_description/meshes/f1.stl"/>
        </geometry>
      </collision>
      <!-   end collision mesh of f1 -->
    <!-- begin visual mesh of f1 ->
      <visual>
        <origin xyz="0 0 0" rpy="0 0 0"/>
        <geometry>
          <mesh filename="package://sandia_hand_description/meshes/f1.stl"/>
        </geometry>
        <material name="${side}_sandia_hand_skin">
          <color rgba="0.835 0.655 0.345 1.0"/>
        </material>
      </visual>
      <!-   end visual mesh of f1 -->
  </link>
  <link name="right_f3_1_accel">
    <origin rpy="0 0 0" xyz="0 0 0"/>
    <inertial>
      <mass value="0.01"/>
      <origin xyz="0 0 0"/>
      <inertia ixx="0.000001" ixy="0" ixz="0" iyy="0.000001" iyz="0" izz="0.000001"/>
    </inertial>
  </link>
  <link name="right_f3_2">
    <origin rpy="0 0 0" xyz="0 0 0"/>
    <inertial>
      <mass value="0.033"/>
      <!-- F3 -->
      <origin xyz="0 0 0"/>
      <!-- solid cylinder -->
      <inertia ixx="0.0000013365" ixy="0" ixz="0" iyy="0.000009603" iyz="0" izz="0.000009603"/>
    </inertial>
    <!-- begin simple shape approximation of f2 -->
    <collision group="default">
      <origin rpy="0 1.57079632679 0" xyz="0.024 0 0"/>
      <geometry>
        <cylinder length="0.057" radius="0.009"/>
      </geometry>
    </collision>
    <collision group="other">
      <origin rpy="0 0 0" xyz="0.052 0 0"/>
      <geometry>
        <sphere radius="0.009"/>
      </geometry>
    </collision>
    <!--   end simple shape approximation of f2 -->
    <!-- begin visual shape approximation of f2 -->
    <visual>
      <origin rpy="0 1.57079632679 0" xyz="0.024 0 0"/>
      <geometry>
        <cylinder length="0.057" radius="0.009"/>
      </geometry>
      <material name="right_sandia_hand_skin_suntan">
        <color rgba="0.8 0.6 0.3 1.0"/>
      </material>
    </visual>
    <visual>
      <origin rpy="0 0 0" xyz="0.052 0 0"/>
      <geometry>
        <sphere radius="0.009"/>
      </geometry>
      <material name="right_sandia_hand_skin_suntan">
        <color rgba="0.8 0.6 0.3 1.0"/>
      </material>
    </visual>
    <!-- begin collision mesh of f2    ->
      <collision group="default">
        <origin xyz="0 0 0" rpy="0 0 0"/>
        <geometry>
          <mesh filename="package://sandia_hand_description/meshes/f2.stl"/>
        </geometry>
      </collision>
      <!-   end collision mesh of f2 -->
    <!-- begin visual mesh of f2    ->
      <visual>
        <origin xyz="0 0 0" rpy="0 0 0"/>
        <geometry>
          <mesh filename="package://sandia_hand_description/meshes/f2.stl"/>
        </geometry>
        <material name="${side}_sandia_hand_skin_suntan">
          <color rgba="0.8 0.6 0.3 1.0"/>
        </material>
      </visual>
      <!-   end visual mesh of f2 -->
  </link>
  <link name="right_f3_2_accel">
    <origin rpy="0 0 0" xyz="0 0 0"/>
    <inertial>
      <mass value="0.01"/>
      <origin xyz="0 0 0"/>
      <inertia ixx="0.000001" ixy="0" ixz="0" iyy="0.000001" iyz="0" izz="0.000001"/>
    </inertial>
  </link>
  <joint name="right_f3_base" type="fixed">
    <parent link="right_palm"/>
    <child link="right_f3_base"/>
    <origin rpy="0 -1.57079632679 -2.3562" xyz="0.03995 -0.04383 0.014"/>
  </joint>
  <joint name="right_f3_j0" type="revolute">
    <axis xyz="0 0 1"/>
    <parent link="right_f3_base"/>
    <child link="right_f3_0"/>
    <limit effort="11" lower="-1.57079632679" upper="1.57079632679" velocity="-1"/>
    <safety_controller k_position="1000.0" k_velocity="1000.0" soft_lower_limit="-11.57079" soft_upper_limit="11.57079"/>
    <dynamics damping="1.0"/>
    <origin rpy="0 0 0" xyz="0 0 0"/>
  </joint>
  <joint name="right_f3_j1" type="revolute">
    <axis xyz="0 0 1"/>
    <parent link="right_f3_0"/>
    <child link="right_f3_1"/>
    <limit effort="28" lower="-1.57079632679" upper="1.57079632679" velocity="-1"/>
    <safety_controller k_position="1000.0" k_velocity="1000.0" soft_lower_limit="-11.57079" soft_upper_limit="11.57079"/>
    <dynamics damping="1.0"/>
    <origin rpy="1.57079632679 0 0" xyz="0.028 0 0"/>
  </joint>
  <joint name="right_f3_j2" type="revolute">
    <axis xyz="0 0 1"/>
    <parent link="right_f3_1"/>
    <child link="right_f3_2"/>
    <origin rpy="0 0 0" xyz="0.05 0 0"/>
    <safety_controller k_position="1000.0" k_velocity="1000.0" soft_lower_limit="-11.57079" soft_upper_limit="11.57079"/>
    <dynamics damping="1.0"/>
    <limit effort="28" lower="-1.57079632679" upper="1.57079632679" velocity="-1"/>
  </joint>
  <joint name="right_f3_fixed_accel" type="fixed">
    <parent link="right_f3_base"/>
    <child link="right_f3_fixed_accel"/>
    <origin rpy="0 0 0" xyz="-0.05 0 0"/>
  </joint>
  <joint name="right_f3_1_accel" type="fixed">
    <parent link="right_f3_1"/>
    <child link="right_f3_1_accel"/>
    <origin rpy="-1.57079632679 0 0" xyz="0.03 0 0"/>
  </joint>
  <joint name="right_f3_2_accel" type="fixed">
    <parent link="right_f3_2"/>
    <child link="right_f3_2_accel"/>
    <origin rpy="-1.57079632679 0 0" xyz="0.04 0 0"/>
  </joint>
  <transmission name="right_f3_j0" type="pr2_mechanism_model/SimpleTransmission">
    <joint name="right_f3_j0"/>
    <actuator name="right_f3_j0_motor"/>
    <mechanicalReduction>1</mechanicalReduction>
  </transmission>
  <transmission name="right_f3_j1" type="pr2_mechanism_model/SimpleTransmission">
    <joint name="right_f3_j1"/>
    <actuator name="right_f3_j1_motor"/>
    <mechanicalReduction>1</mechanicalReduction>
  </transmission>
  <transmission name="right_f3_j2" type="pr2_mechanism_model/SimpleTransmission">
    <joint name="right_f3_j2"/>
    <actuator name="right_f3_j2_motor"/>
    <mechanicalReduction>1</mechanicalReduction>
  </transmission>
  <gazebo reference="right_f3_base">
    <mu1>1.1</mu1>
    <mu2>1.1</mu2>
    <kp>1000000.0</kp>
    <kd>10.0</kd>
    <maxVel>0.1</maxVel>
    <minDepth>0.00</minDepth>
    <maxContacts>1</maxContacts>
    <material>Gazebo/FlatBlack</material>
  </gazebo>
  <gazebo reference="right_f3_0">
    <mu1>1.1</mu1>
    <mu2>1.1</mu2>
    <kp>1000000.0</kp>
    <kd>10.0</kd>
    <maxVel>0.1</maxVel>
    <minDepth>0.00</minDepth>
    <maxContacts>1</maxContacts>
    <material>Gazebo/FlatBlack</material>
  </gazebo>
  <gazebo reference="right_f3_1">
    <mu1>1.1</mu1>
    <mu2>1.1</mu2>
    <kp>1000000.0</kp>
    <kd>10.0</kd>
    <maxVel>0.1</maxVel>
    <minDepth>0.00</minDepth>
    <maxContacts>1</maxContacts>
    <material>Gazebo/FlatBlack</material>
  </gazebo>
  <gazebo reference="right_f3_2">
    <mu1>1.1</mu1>
    <mu2>1.1</mu2>
    <kp>1000000.0</kp>
    <kd>10.0</kd>
    <maxVel>0.1</maxVel>
    <minDepth>0.00</minDepth>
    <maxContacts>1</maxContacts>
    <material>Gazebo/FlatBlack</material>
  </gazebo>
  <gazebo reference="right_f3_j0">
    <cfmDamping>1</cfmDamping>
  </gazebo>
  <gazebo reference="right_f3_j1">
    <cfmDamping>1</cfmDamping>
  </gazebo>
  <gazebo reference="right_f3_j2">
    <cfmDamping>1</cfmDamping>
  </gazebo>
  <gazebo reference="right_palm">
    <mu1>1.1</mu1>
    <mu2>1.1</mu2>
    <kp>1000000.0</kp>
    <kd>1.0</kd>
    <maxVel>0.1</maxVel>
    <minDepth>0.00</minDepth>
    <maxContacts>6</maxContacts>
    <material>Gazebo/FlatBlack</material>
  </gazebo>
  <joint name="right_palm_left_camera_frame_joint" type="fixed">
    <origin rpy="0.6708 -1.57079632679 3.14159265359" xyz="0.0683774130138 0.0138342911048 0.025"/>
    <parent link="right_palm"/>
    <child link="right_palm_left_camera_frame"/>
  </joint>
  <link name="right_palm_left_camera_frame">
    <inertial>
      <mass value="0.01"/>
      <origin xyz="0 0 0"/>
      <inertia ixx="0.0001" ixy="0.0" ixz="0.0" iyy="0.0001" iyz="0.0" izz="0.0001"/>
    </inertial>
    <visual group="default">
      <origin rpy="0 0 0" xyz="0 0 0"/>
      <geometry>
        <box size="0.003 0.010 0.007"/>
      </geometry>
    </visual>
  </link>
  <joint name="right_palm_left_camera_optical_frame_joint" type="fixed">
    <origin rpy="-1.57079632679 0.0 -1.57079632679" xyz="0 0 0"/>
    <parent link="right_palm_left_camera_frame"/>
    <child link="right_palm_left_camera_optical_frame"/>
  </joint>
  <link name="right_palm_left_camera_optical_frame"/>
  <gazebo reference="right_palm_left_camera_frame">
    <sensor name="right_palm_stereo_camera" type="multicamera">
      <update_rate>30.0</update_rate>
      <camera name="left">
        <horizontal_fov>1.25663706144</horizontal_fov>
        <image>
          <width>752</width>
          <height>480</height>
          <format>L8</format>
        </image>
        <clip>
          <near>0.02</near>
          <far>100</far>
        </clip>
        <noise>
          <type>gaussian</type>
          <mean>0.0</mean>
          <stddev>0.007</stddev>
        </noise>
      </camera>
      <camera name="right">
        <pose>0 -0.04 0  0 0 0</pose>
        <horizontal_fov>1.25663706144</horizontal_fov>
        <image>
          <width>752</width>
          <height>480</height>
          <format>L8</format>
        </image>
        <clip>
          <near>0.02</near>
          <far>100</far>
        </clip>
        <noise>
          <type>gaussian</type>
          <mean>0.0</mean>
          <stddev>0.007</stddev>
        </noise>
      </camera>
      <plugin filename="libgazebo_ros_multicamera.so" name="stereo_camera_controller">
        <alwaysOn>true</alwaysOn>
        <updateRate>0.0</updateRate>
        <cameraName>sandia_hands/r_hand/camera</cameraName>
        <imageTopicName>image_raw</imageTopicName>
        <cameraInfoTopicName>camera_info</cameraInfoTopicName>
        <frameName>right_palm_left_camera_optical_frame</frameName>
        <hackBaseline>0.04</hackBaseline>
        <distortionK1>0.0</distortionK1>
        <distortionK2>0.0</distortionK2>
        <distortionK3>0.0</distortionK3>
        <distortionT1>0.0</distortionT1>
        <distortionT2>0.0</distortionT2>
      </plugin>
    </sensor>
  </gazebo>
  <joint name="right_palm_right_camera_frame_joint" type="fixed">
    <origin rpy="0.6708 -1.57079632679 3.14159265359" xyz="0.0435128991906 0.0451672761576 0.025"/>
    <parent link="right_palm"/>
    <child link="right_palm_right_camera_frame"/>
  </joint>
  <link name="right_palm_right_camera_frame">
    <inertial>
      <mass value="0.01"/>
      <origin xyz="0 0 0"/>
      <inertia ixx="0.0001" ixy="0.0" ixz="0.0" iyy="0.0001" iyz="0.0" izz="0.0001"/>
    </inertial>
    <visual group="default">
      <origin rpy="0 0 0" xyz="0 0 0"/>
      <geometry>
        <box size="0.003 0.010 0.007"/>
      </geometry>
    </visual>
  </link>
  <joint name="right_palm_right_camera_optical_frame_joint" type="fixed">
    <origin rpy="-1.57079632679 0.0 -1.57079632679" xyz="0 0 0"/>
    <parent link="right_palm_right_camera_frame"/>
    <child link="right_palm_right_camera_optical_frame"/>
  </joint>
  <link name="right_palm_right_camera_optical_frame"/>
  <gazebo>
    <plugin filename="libContactModelPlugin.so" name="sandia_contact_plugin">
      <contact>
        <collision>r_hand::r_hand_collision_right_palm</collision>
        <collision>r_hand::r_hand_collision_right_palm_1</collision>
        <collision>r_hand::r_hand_collision_right_palm_3</collision>
        <collision>r_hand::r_hand_collision_right_palm_4</collision>
        <collision>r_hand::r_hand_collision_right_palm_5</collision>
        <collision>right_f0_1::right_f0_1_collision</collision>
        <collision>right_f0_2::right_f0_2_collision</collision>
        <collision>right_f1_1::right_f1_1_collision</collision>
        <collision>right_f1_2::right_f1_2_collision</collision>
        <collision>right_f2_1::right_f2_1_collision</collision>
        <collision>right_f2_2::right_f2_2_collision</collision>
        <collision>right_f3_1::right_f3_1_collision</collision>
        <collision>right_f3_2::right_f3_2_collision</collision>
      </contact>
    </plugin>
  </gazebo>
  <gazebo reference="r_hand">
    <sensor name="imu_sensor" type="imu">
      <always_on>1</always_on>
      <update_rate>1000.0</update_rate>
      <imu>
        <noise>
          <type>gaussian</type>
          <rate>
            <mean>0.0</mean>
            <stddev>2e-4</stddev>
            <bias_mean>0.0000075</bias_mean>
            <bias_stddev>0.0000008</bias_stddev>
          </rate>
          <accel>
            <mean>0.0</mean>
            <stddev>1.7e-2</stddev>
            <bias_mean>0.1</bias_mean>
            <bias_stddev>0.001</bias_stddev>
          </accel>
        </noise>
      </imu>
    </sensor>
  </gazebo>
  <link name="left_palm">
    <origin rpy="0 0 0" xyz="0 0 0"/>
    <inertial>
      <mass value="1.303"/>
      <origin xyz="0 0 0"/>
      <!-- solid sphere with 5cm radius -->
      <inertia ixx="0.001303" ixy="0" ixz="0" iyy="0.001303" iyz="0" izz="0.001303"/>
    </inertial>
    <!-- begin simple shape approximation of palm -->
    <collision group="default">
      <origin rpy="0 1.57079632679 0.9" xyz="0.069 -0.016 0.038"/>
      <geometry>
        <cylinder length="0.100" radius="0.013"/>
      </geometry>
    </collision>
    <collision group="other">
      <origin rpy="-0.41 0 0.9" xyz="0.064 -0.008 0.021"/>
      <geometry>
        <box size="0.09 .035 .05"/>
      </geometry>
    </collision>
    <collision group="other">
      <origin rpy="0 1.57079632679 0" xyz="0.02 0 -0.005"/>
      <geometry>
        <cylinder length="0.05" radius="0.038"/>
      </geometry>
    </collision>
    <collision group="other">
      <origin rpy="0 0 -0.37" xyz="0.11 0.01 -0.005"/>
      <geometry>
        <box size="0.09 .03 .06"/>
      </geometry>
    </collision>
    <collision group="other">
      <origin rpy="0 0 -0.37" xyz="0.09 -0.02 -0.005"/>
      <geometry>
        <box size="0.09 .03 .06"/>
      </geometry>
    </collision>
    <collision group="other">
      <origin rpy="0 0 -0.37" xyz="0.060 -0.05 -0.005"/>
      <geometry>
        <box size="0.09 .03 .06"/>
      </geometry>
    </collision>
    <collision group="other">
      <origin rpy="0 0 -0.79" xyz="0.044 0.04 -0.005"/>
      <geometry>
        <box size="0.09 .03 .06"/>
      </geometry>
    </collision>
    <!--   end simple shape approximation of palm -->
    <!-- begin visual shape approximation of palm -->
    <visual>
      <origin rpy="0 1.57079632679 0.9" xyz="0.069 -0.016 0.038"/>
      <geometry>
        <cylinder length="0.100" radius="0.013"/>
      </geometry>
      <material name="left_sandia_hand_skin">
        <color rgba="0.835 0.655 0.345 1.0"/>
      </material>
    </visual>
    <visual>
      <origin rpy="-0.41 0 0.9" xyz="0.064 -0.008 0.021"/>
      <geometry>
        <box size="0.09 .035 .05"/>
      </geometry>
      <material name="left_sandia_hand_skin">
        <color rgba="0.835 0.655 0.345 1.0"/>
      </material>
    </visual>
    <visual>
      <origin rpy="0 1.57079632679 0" xyz="0.02 0 -0.005"/>
      <geometry>
        <cylinder length="0.05" radius="0.038"/>
      </geometry>
      <material name="left_sandia_hand_skin">
        <color rgba="0.835 0.655 0.345 1.0"/>
      </material>
    </visual>
    <visual>
      <origin rpy="0 0 -0.37" xyz="0.11 0.01 -0.005"/>
      <geometry>
        <box size="0.09 .03 .06"/>
      </geometry>
      <material name="left_sandia_hand_skin">
        <color rgba="0.835 0.655 0.345 1.0"/>
      </material>
    </visual>
    <visual>
      <origin rpy="0 0 -0.37" xyz="0.09 -0.02 -0.005"/>
      <geometry>
        <box size="0.09 .03 .06"/>
      </geometry>
      <material name="left_sandia_hand_skin">
        <color rgba="0.835 0.655 0.345 1.0"/>
      </material>
    </visual>
    <visual>
      <origin rpy="0 0 -0.37" xyz="0.060 -0.05 -0.005"/>
      <geometry>
        <box size="0.09 .03 .06"/>
      </geometry>
      <material name="left_sandia_hand_skin">
        <color rgba="0.835 0.655 0.345 1.0"/>
      </material>
    </visual>
    <visual>
      <origin rpy="0 0 -0.79" xyz="0.044 0.04 -0.005"/>
      <geometry>
        <box size="0.09 .03 .06"/>
      </geometry>
      <material name="left_sandia_hand_skin">
        <color rgba="0.835 0.655 0.345 1.0"/>
      </material>
    </visual>
    <!--   end visual shape approximation of palm -->
    <!-- begin collision mesh of f2 ->
      <collision group="default">
        <origin xyz="0 0 0" rpy="0 0 0"/>
        <geometry>
          <mesh filename="package://sandia_hand_description/meshes/palm.stl"/>
        </geometry>
      </collision>
      <!-   end collision mesh of f2 -->
    <!-- begin visual mesh of f2    ->
      <visual>
        <origin xyz="0 0 0" rpy="0 0 0"/>
        <geometry>
          <mesh filename="package://sandia_hand_description/meshes/palm.stl"/>
        </geometry>
        <material name="${side}_sandia_hand_skin">
          <color rgba="0.835 0.655 0.345 1.0"/>
        </material>
      </visual>
      <!-   end visual mesh of f2 -->
  </link>
  <joint name="left_sandia_hand_joint" type="fixed">
    <parent link="l_hand"/>
    <child link="left_palm"/>
    <origin rpy="0 0  1.57079" xyz="0.00179  0.13516 0.01176"/>
  </joint>
  <link name="left_f0_base">
    <origin rpy="0 0 0" xyz="0 0 0"/>
    <inertial>
      <!-- total mass is 2.303 kg, palm is about 1.303 kg, distribute the rest into _base -->
      <mass value="0.250"/>
      <!-- (2.303 - 1.303) / 4 -->
      <origin xyz="0 0 0"/>
      <!-- model as sphere with radius of 1cm -->
      <inertia ixx="0.00001" ixy="0" ixz="0" iyy="0.00001" iyz="0" izz="0.00001"/>
    </inertial>
  </link>
  <link name="left_f0_fixed_accel">
    <origin rpy="0 0 0" xyz="0 0 0"/>
    <inertial>
      <mass value="0.01"/>
      <origin xyz="0 0 0"/>
      <inertia ixx="0.000001" ixy="0" ixz="0" iyy="0.000001" iyz="0" izz="0.000001"/>
    </inertial>
  </link>
  <link name="left_f0_0">
    <origin rpy="0 0 0" xyz="0 0 0"/>
    <inertial>
      <mass value="0.106"/>
      <!-- F1 -->
      <origin xyz="0 0 0"/>
      <!-- solid cylinder -->
      <inertia ixx="0.000011925" ixy="0" ixz="0" iyy="0.00011505" iyz="0" izz="0.00011505"/>
    </inertial>
    <!-- begin simple shape approximation of f0 -->
    <collision group="default">
      <origin rpy="0 0 0" xyz="0 0 0.003"/>
      <geometry>
        <cylinder length="0.023" radius="0.015"/>
      </geometry>
    </collision>
    <collision group="other">
      <origin rpy="1.57079632679 0 0" xyz="0.011 0 0.003"/>
      <geometry>
        <cylinder length="0.023" radius="0.01"/>
      </geometry>
    </collision>
    <!--   end simple shape approximation of f0 -->
    <!-- begin visual shape approximation of f0 -->
    <visual>
      <origin rpy="0 0 0" xyz="0 0 0.003"/>
      <geometry>
        <cylinder length="0.023" radius="0.015"/>
      </geometry>
      <material name="left_sandia_hand_skin_suntan">
        <color rgba="0.7 0.4 0.2 1.0"/>
      </material>
    </visual>
    <visual>
      <origin rpy="1.57079632679 0 0" xyz="0.011 0 0.003"/>
      <geometry>
        <cylinder length="0.023" radius="0.01"/>
      </geometry>
      <material name="left_sandia_hand_skin_suntan">
        <color rgba="0.7 0.4 0.2 1.0"/>
      </material>
    </visual>
    <!--   end visual shape approximation of f0 -->
    <!-- begin collision mesh of f0 ->
      <collision group="default">
        <origin xyz="0 0 0" rpy="0 0 0"/>
        <geometry>
          <mesh filename="package://sandia_hand_description/meshes/f0.stl"/>
        </geometry>
      </collision>
      <!-   end collision mesh of f0 -->
    <!-- begin visual mesh of f0 ->
      <visual>
        <origin xyz="0 0 0" rpy="0 0 0"/>
        <geometry>
          <mesh filename="package://sandia_hand_description/meshes/f0.stl"/>
        </geometry>
        <material name="${side}_sandia_hand_skin_suntan">
          <color rgba="0.7 0.4 0.2 1.0"/>
        </material>
      </visual>
      <!-   end visual mesh of f0 -->
  </link>
  <link name="left_f0_1">
    <origin rpy="0 0 0" xyz="0 0 0"/>
    <inertial>
      <mass value="0.033"/>
      <!-- F2 -->
      <origin xyz="0 0 0"/>
      <!-- solid cylinder -->
      <inertia ixx="0.00000165" ixy="0" ixz="0" iyy="0.00001316975" iyz="0" izz="0.00001316975"/>
    </inertial>
    <!-- begin simple shape approximation of f1 -->
    <collision group="default">
      <origin rpy="0 1.57079632679 0" xyz="0.024 0 0"/>
      <geometry>
        <cylinder length="0.067" radius="0.01"/>
      </geometry>
    </collision>
    <!--   end simple shape approximation of f1 -->
    <!-- begin visual shape approximation of f1 -->
    <visual>
      <origin rpy="0 1.57079632679 0" xyz="0.024 0 0"/>
      <geometry>
        <cylinder length="0.067" radius="0.01"/>
      </geometry>
      <material name="left_sandia_hand_skin">
        <color rgba="0.835 0.655 0.345 1.0"/>
      </material>
    </visual>
    <!--   end visual shape approximation of f1 -->
    <!-- begin collision mesh of f1 ->
      <collision group="default">
        <origin xyz="0 0 0" rpy="0 0 0"/>
        <geometry>
          <mesh filename="package://sandia_hand_description/meshes/f1.stl"/>
        </geometry>
      </collision>
      <!-   end collision mesh of f1 -->
    <!-- begin visual mesh of f1 ->
      <visual>
        <origin xyz="0 0 0" rpy="0 0 0"/>
        <geometry>
          <mesh filename="package://sandia_hand_description/meshes/f1.stl"/>
        </geometry>
        <material name="${side}_sandia_hand_skin">
          <color rgba="0.835 0.655 0.345 1.0"/>
        </material>
      </visual>
      <!-   end visual mesh of f1 -->
  </link>
  <link name="left_f0_1_accel">
    <origin rpy="0 0 0" xyz="0 0 0"/>
    <inertial>
      <mass value="0.01"/>
      <origin xyz="0 0 0"/>
      <inertia ixx="0.000001" ixy="0" ixz="0" iyy="0.000001" iyz="0" izz="0.000001"/>
    </inertial>
  </link>
  <link name="left_f0_2">
    <origin rpy="0 0 0" xyz="0 0 0"/>
    <inertial>
      <mass value="0.033"/>
      <!-- F3 -->
      <origin xyz="0 0 0"/>
      <!-- solid cylinder -->
      <inertia ixx="0.0000013365" ixy="0" ixz="0" iyy="0.000009603" iyz="0" izz="0.000009603"/>
    </inertial>
    <!-- begin simple shape approximation of f2 -->
    <collision group="default">
      <origin rpy="0 1.57079632679 0" xyz="0.024 0 0"/>
      <geometry>
        <cylinder length="0.057" radius="0.009"/>
      </geometry>
    </collision>
    <collision group="other">
      <origin rpy="0 0 0" xyz="0.052 0 0"/>
      <geometry>
        <sphere radius="0.009"/>
      </geometry>
    </collision>
    <!--   end simple shape approximation of f2 -->
    <!-- begin visual shape approximation of f2 -->
    <visual>
      <origin rpy="0 1.57079632679 0" xyz="0.024 0 0"/>
      <geometry>
        <cylinder length="0.057" radius="0.009"/>
      </geometry>
      <material name="left_sandia_hand_skin_suntan">
        <color rgba="0.8 0.6 0.3 1.0"/>
      </material>
    </visual>
    <visual>
      <origin rpy="0 0 0" xyz="0.052 0 0"/>
      <geometry>
        <sphere radius="0.009"/>
      </geometry>
      <material name="left_sandia_hand_skin_suntan">
        <color rgba="0.8 0.6 0.3 1.0"/>
      </material>
    </visual>
    <!-- begin collision mesh of f2    ->
      <collision group="default">
        <origin xyz="0 0 0" rpy="0 0 0"/>
        <geometry>
          <mesh filename="package://sandia_hand_description/meshes/f2.stl"/>
        </geometry>
      </collision>
      <!-   end collision mesh of f2 -->
    <!-- begin visual mesh of f2    ->
      <visual>
        <origin xyz="0 0 0" rpy="0 0 0"/>
        <geometry>
          <mesh filename="package://sandia_hand_description/meshes/f2.stl"/>
        </geometry>
        <material name="${side}_sandia_hand_skin_suntan">
          <color rgba="0.8 0.6 0.3 1.0"/>
        </material>
      </visual>
      <!-   end visual mesh of f2 -->
  </link>
  <link name="left_f0_2_accel">
    <origin rpy="0 0 0" xyz="0 0 0"/>
    <inertial>
      <mass value="0.01"/>
      <origin xyz="0 0 0"/>
      <inertia ixx="0.000001" ixy="0" ixz="0" iyy="0.000001" iyz="0" izz="0.000001"/>
    </inertial>
  </link>
  <joint name="left_f0_base" type="fixed">
    <parent link="left_palm"/>
    <child link="left_f0_base"/>
    <origin rpy="0 0 -0.3" xyz="0.14 0.0 0"/>
  </joint>
  <joint name="left_f0_j0" type="revolute">
    <axis xyz="0 0 -1"/>
    <parent link="left_f0_base"/>
    <child link="left_f0_0"/>
    <limit effort="11" lower="-1.57079632679" upper="1.57079632679" velocity="-1"/>
    <safety_controller k_position="1000.0" k_velocity="1000.0" soft_lower_limit="-11.57079" soft_upper_limit="11.57079"/>
    <dynamics damping="1.0"/>
    <origin rpy="0 0 0" xyz="0 0 0"/>
  </joint>
  <joint name="left_f0_j1" type="revolute">
    <axis xyz="0 0 1"/>
    <parent link="left_f0_0"/>
    <child link="left_f0_1"/>
    <limit effort="28" lower="-1.57079632679" upper="1.57079632679" velocity="-1"/>
    <safety_controller k_position="1000.0" k_velocity="1000.0" soft_lower_limit="-11.57079" soft_upper_limit="11.57079"/>
    <dynamics damping="1.0"/>
    <origin rpy="1.57079632679 0 0" xyz="0.028 0 0"/>
  </joint>
  <joint name="left_f0_j2" type="revolute">
    <axis xyz="0 0 1"/>
    <parent link="left_f0_1"/>
    <child link="left_f0_2"/>
    <origin rpy="0 0 0" xyz="0.05 0 0"/>
    <safety_controller k_position="1000.0" k_velocity="1000.0" soft_lower_limit="-11.57079" soft_upper_limit="11.57079"/>
    <dynamics damping="1.0"/>
    <limit effort="28" lower="-1.57079632679" upper="1.57079632679" velocity="-1"/>
  </joint>
  <joint name="left_f0_fixed_accel" type="fixed">
    <parent link="left_f0_base"/>
    <child link="left_f0_fixed_accel"/>
    <origin rpy="0 0 0" xyz="-0.05 0 0"/>
  </joint>
  <joint name="left_f0_1_accel" type="fixed">
    <parent link="left_f0_1"/>
    <child link="left_f0_1_accel"/>
    <origin rpy="-1.57079632679 0 0" xyz="0.03 0 0"/>
  </joint>
  <joint name="left_f0_2_accel" type="fixed">
    <parent link="left_f0_2"/>
    <child link="left_f0_2_accel"/>
    <origin rpy="-1.57079632679 0 0" xyz="0.04 0 0"/>
  </joint>
  <transmission name="left_f0_j0" type="pr2_mechanism_model/SimpleTransmission">
    <joint name="left_f0_j0"/>
    <actuator name="left_f0_j0_motor"/>
    <mechanicalReduction>1</mechanicalReduction>
  </transmission>
  <transmission name="left_f0_j1" type="pr2_mechanism_model/SimpleTransmission">
    <joint name="left_f0_j1"/>
    <actuator name="left_f0_j1_motor"/>
    <mechanicalReduction>1</mechanicalReduction>
  </transmission>
  <transmission name="left_f0_j2" type="pr2_mechanism_model/SimpleTransmission">
    <joint name="left_f0_j2"/>
    <actuator name="left_f0_j2_motor"/>
    <mechanicalReduction>1</mechanicalReduction>
  </transmission>
  <gazebo reference="left_f0_base">
    <mu1>1.1</mu1>
    <mu2>1.1</mu2>
    <kp>1000000.0</kp>
    <kd>10.0</kd>
    <maxVel>0.1</maxVel>
    <minDepth>0.00</minDepth>
    <maxContacts>1</maxContacts>
    <material>Gazebo/FlatBlack</material>
  </gazebo>
  <gazebo reference="left_f0_0">
    <mu1>1.1</mu1>
    <mu2>1.1</mu2>
    <kp>1000000.0</kp>
    <kd>10.0</kd>
    <maxVel>0.1</maxVel>
    <minDepth>0.00</minDepth>
    <maxContacts>1</maxContacts>
    <material>Gazebo/FlatBlack</material>
  </gazebo>
  <gazebo reference="left_f0_1">
    <mu1>1.1</mu1>
    <mu2>1.1</mu2>
    <kp>1000000.0</kp>
    <kd>10.0</kd>
    <maxVel>0.1</maxVel>
    <minDepth>0.00</minDepth>
    <maxContacts>1</maxContacts>
    <material>Gazebo/FlatBlack</material>
  </gazebo>
  <gazebo reference="left_f0_2">
    <mu1>1.1</mu1>
    <mu2>1.1</mu2>
    <kp>1000000.0</kp>
    <kd>10.0</kd>
    <maxVel>0.1</maxVel>
    <minDepth>0.00</minDepth>
    <maxContacts>1</maxContacts>
    <material>Gazebo/FlatBlack</material>
  </gazebo>
  <gazebo reference="left_f0_j0">
    <cfmDamping>1</cfmDamping>
  </gazebo>
  <gazebo reference="left_f0_j1">
    <cfmDamping>1</cfmDamping>
  </gazebo>
  <gazebo reference="left_f0_j2">
    <cfmDamping>1</cfmDamping>
  </gazebo>
  <link name="left_f1_base">
    <origin rpy="0 0 0" xyz="0 0 0"/>
    <inertial>
      <!-- total mass is 2.303 kg, palm is about 1.303 kg, distribute the rest into _base -->
      <mass value="0.250"/>
      <!-- (2.303 - 1.303) / 4 -->
      <origin xyz="0 0 0"/>
      <!-- model as sphere with radius of 1cm -->
      <inertia ixx="0.00001" ixy="0" ixz="0" iyy="0.00001" iyz="0" izz="0.00001"/>
    </inertial>
  </link>
  <link name="left_f1_fixed_accel">
    <origin rpy="0 0 0" xyz="0 0 0"/>
    <inertial>
      <mass value="0.01"/>
      <origin xyz="0 0 0"/>
      <inertia ixx="0.000001" ixy="0" ixz="0" iyy="0.000001" iyz="0" izz="0.000001"/>
    </inertial>
  </link>
  <link name="left_f1_0">
    <origin rpy="0 0 0" xyz="0 0 0"/>
    <inertial>
      <mass value="0.106"/>
      <!-- F1 -->
      <origin xyz="0 0 0"/>
      <!-- solid cylinder -->
      <inertia ixx="0.000011925" ixy="0" ixz="0" iyy="0.00011505" iyz="0" izz="0.00011505"/>
    </inertial>
    <!-- begin simple shape approximation of f0 -->
    <collision group="default">
      <origin rpy="0 0 0" xyz="0 0 0.003"/>
      <geometry>
        <cylinder length="0.023" radius="0.015"/>
      </geometry>
    </collision>
    <collision group="other">
      <origin rpy="1.57079632679 0 0" xyz="0.011 0 0.003"/>
      <geometry>
        <cylinder length="0.023" radius="0.01"/>
      </geometry>
    </collision>
    <!--   end simple shape approximation of f0 -->
    <!-- begin visual shape approximation of f0 -->
    <visual>
      <origin rpy="0 0 0" xyz="0 0 0.003"/>
      <geometry>
        <cylinder length="0.023" radius="0.015"/>
      </geometry>
      <material name="left_sandia_hand_skin_suntan">
        <color rgba="0.7 0.4 0.2 1.0"/>
      </material>
    </visual>
    <visual>
      <origin rpy="1.57079632679 0 0" xyz="0.011 0 0.003"/>
      <geometry>
        <cylinder length="0.023" radius="0.01"/>
      </geometry>
      <material name="left_sandia_hand_skin_suntan">
        <color rgba="0.7 0.4 0.2 1.0"/>
      </material>
    </visual>
    <!--   end visual shape approximation of f0 -->
    <!-- begin collision mesh of f0 ->
      <collision group="default">
        <origin xyz="0 0 0" rpy="0 0 0"/>
        <geometry>
          <mesh filename="package://sandia_hand_description/meshes/f0.stl"/>
        </geometry>
      </collision>
      <!-   end collision mesh of f0 -->
    <!-- begin visual mesh of f0 ->
      <visual>
        <origin xyz="0 0 0" rpy="0 0 0"/>
        <geometry>
          <mesh filename="package://sandia_hand_description/meshes/f0.stl"/>
        </geometry>
        <material name="${side}_sandia_hand_skin_suntan">
          <color rgba="0.7 0.4 0.2 1.0"/>
        </material>
      </visual>
      <!-   end visual mesh of f0 -->
  </link>
  <link name="left_f1_1">
    <origin rpy="0 0 0" xyz="0 0 0"/>
    <inertial>
      <mass value="0.033"/>
      <!-- F2 -->
      <origin xyz="0 0 0"/>
      <!-- solid cylinder -->
      <inertia ixx="0.00000165" ixy="0" ixz="0" iyy="0.00001316975" iyz="0" izz="0.00001316975"/>
    </inertial>
    <!-- begin simple shape approximation of f1 -->
    <collision group="default">
      <origin rpy="0 1.57079632679 0" xyz="0.024 0 0"/>
      <geometry>
        <cylinder length="0.067" radius="0.01"/>
      </geometry>
    </collision>
    <!--   end simple shape approximation of f1 -->
    <!-- begin visual shape approximation of f1 -->
    <visual>
      <origin rpy="0 1.57079632679 0" xyz="0.024 0 0"/>
      <geometry>
        <cylinder length="0.067" radius="0.01"/>
      </geometry>
      <material name="left_sandia_hand_skin">
        <color rgba="0.835 0.655 0.345 1.0"/>
      </material>
    </visual>
    <!--   end visual shape approximation of f1 -->
    <!-- begin collision mesh of f1 ->
      <collision group="default">
        <origin xyz="0 0 0" rpy="0 0 0"/>
        <geometry>
          <mesh filename="package://sandia_hand_description/meshes/f1.stl"/>
        </geometry>
      </collision>
      <!-   end collision mesh of f1 -->
    <!-- begin visual mesh of f1 ->
      <visual>
        <origin xyz="0 0 0" rpy="0 0 0"/>
        <geometry>
          <mesh filename="package://sandia_hand_description/meshes/f1.stl"/>
        </geometry>
        <material name="${side}_sandia_hand_skin">
          <color rgba="0.835 0.655 0.345 1.0"/>
        </material>
      </visual>
      <!-   end visual mesh of f1 -->
  </link>
  <link name="left_f1_1_accel">
    <origin rpy="0 0 0" xyz="0 0 0"/>
    <inertial>
      <mass value="0.01"/>
      <origin xyz="0 0 0"/>
      <inertia ixx="0.000001" ixy="0" ixz="0" iyy="0.000001" iyz="0" izz="0.000001"/>
    </inertial>
  </link>
  <link name="left_f1_2">
    <origin rpy="0 0 0" xyz="0 0 0"/>
    <inertial>
      <mass value="0.033"/>
      <!-- F3 -->
      <origin xyz="0 0 0"/>
      <!-- solid cylinder -->
      <inertia ixx="0.0000013365" ixy="0" ixz="0" iyy="0.000009603" iyz="0" izz="0.000009603"/>
    </inertial>
    <!-- begin simple shape approximation of f2 -->
    <collision group="default">
      <origin rpy="0 1.57079632679 0" xyz="0.024 0 0"/>
      <geometry>
        <cylinder length="0.057" radius="0.009"/>
      </geometry>
    </collision>
    <collision group="other">
      <origin rpy="0 0 0" xyz="0.052 0 0"/>
      <geometry>
        <sphere radius="0.009"/>
      </geometry>
    </collision>
    <!--   end simple shape approximation of f2 -->
    <!-- begin visual shape approximation of f2 -->
    <visual>
      <origin rpy="0 1.57079632679 0" xyz="0.024 0 0"/>
      <geometry>
        <cylinder length="0.057" radius="0.009"/>
      </geometry>
      <material name="left_sandia_hand_skin_suntan">
        <color rgba="0.8 0.6 0.3 1.0"/>
      </material>
    </visual>
    <visual>
      <origin rpy="0 0 0" xyz="0.052 0 0"/>
      <geometry>
        <sphere radius="0.009"/>
      </geometry>
      <material name="left_sandia_hand_skin_suntan">
        <color rgba="0.8 0.6 0.3 1.0"/>
      </material>
    </visual>
    <!-- begin collision mesh of f2    ->
      <collision group="default">
        <origin xyz="0 0 0" rpy="0 0 0"/>
        <geometry>
          <mesh filename="package://sandia_hand_description/meshes/f2.stl"/>
        </geometry>
      </collision>
      <!-   end collision mesh of f2 -->
    <!-- begin visual mesh of f2    ->
      <visual>
        <origin xyz="0 0 0" rpy="0 0 0"/>
        <geometry>
          <mesh filename="package://sandia_hand_description/meshes/f2.stl"/>
        </geometry>
        <material name="${side}_sandia_hand_skin_suntan">
          <color rgba="0.8 0.6 0.3 1.0"/>
        </material>
      </visual>
      <!-   end visual mesh of f2 -->
  </link>
  <link name="left_f1_2_accel">
    <origin rpy="0 0 0" xyz="0 0 0"/>
    <inertial>
      <mass value="0.01"/>
      <origin xyz="0 0 0"/>
      <inertia ixx="0.000001" ixy="0" ixz="0" iyy="0.000001" iyz="0" izz="0.000001"/>
    </inertial>
  </link>
  <joint name="left_f1_base" type="fixed">
    <parent link="left_palm"/>
    <child link="left_f1_base"/>
    <origin rpy="0 0 -0.3" xyz="0.115 -0.03122 0"/>
  </joint>
  <joint name="left_f1_j0" type="revolute">
    <axis xyz="0 0 -1"/>
    <parent link="left_f1_base"/>
    <child link="left_f1_0"/>
    <limit effort="11" lower="-1.57079632679" upper="1.57079632679" velocity="-1"/>
    <safety_controller k_position="1000.0" k_velocity="1000.0" soft_lower_limit="-11.57079" soft_upper_limit="11.57079"/>
    <dynamics damping="1.0"/>
    <origin rpy="0 0 0" xyz="0 0 0"/>
  </joint>
  <joint name="left_f1_j1" type="revolute">
    <axis xyz="0 0 1"/>
    <parent link="left_f1_0"/>
    <child link="left_f1_1"/>
    <limit effort="28" lower="-1.57079632679" upper="1.57079632679" velocity="-1"/>
    <safety_controller k_position="1000.0" k_velocity="1000.0" soft_lower_limit="-11.57079" soft_upper_limit="11.57079"/>
    <dynamics damping="1.0"/>
    <origin rpy="1.57079632679 0 0" xyz="0.028 0 0"/>
  </joint>
  <joint name="left_f1_j2" type="revolute">
    <axis xyz="0 0 1"/>
    <parent link="left_f1_1"/>
    <child link="left_f1_2"/>
    <origin rpy="0 0 0" xyz="0.05 0 0"/>
    <safety_controller k_position="1000.0" k_velocity="1000.0" soft_lower_limit="-11.57079" soft_upper_limit="11.57079"/>
    <dynamics damping="1.0"/>
    <limit effort="28" lower="-1.57079632679" upper="1.57079632679" velocity="-1"/>
  </joint>
  <joint name="left_f1_fixed_accel" type="fixed">
    <parent link="left_f1_base"/>
    <child link="left_f1_fixed_accel"/>
    <origin rpy="0 0 0" xyz="-0.05 0 0"/>
  </joint>
  <joint name="left_f1_1_accel" type="fixed">
    <parent link="left_f1_1"/>
    <child link="left_f1_1_accel"/>
    <origin rpy="-1.57079632679 0 0" xyz="0.03 0 0"/>
  </joint>
  <joint name="left_f1_2_accel" type="fixed">
    <parent link="left_f1_2"/>
    <child link="left_f1_2_accel"/>
    <origin rpy="-1.57079632679 0 0" xyz="0.04 0 0"/>
  </joint>
  <transmission name="left_f1_j0" type="pr2_mechanism_model/SimpleTransmission">
    <joint name="left_f1_j0"/>
    <actuator name="left_f1_j0_motor"/>
    <mechanicalReduction>1</mechanicalReduction>
  </transmission>
  <transmission name="left_f1_j1" type="pr2_mechanism_model/SimpleTransmission">
    <joint name="left_f1_j1"/>
    <actuator name="left_f1_j1_motor"/>
    <mechanicalReduction>1</mechanicalReduction>
  </transmission>
  <transmission name="left_f1_j2" type="pr2_mechanism_model/SimpleTransmission">
    <joint name="left_f1_j2"/>
    <actuator name="left_f1_j2_motor"/>
    <mechanicalReduction>1</mechanicalReduction>
  </transmission>
  <gazebo reference="left_f1_base">
    <mu1>1.1</mu1>
    <mu2>1.1</mu2>
    <kp>1000000.0</kp>
    <kd>10.0</kd>
    <maxVel>0.1</maxVel>
    <minDepth>0.00</minDepth>
    <maxContacts>1</maxContacts>
    <material>Gazebo/FlatBlack</material>
  </gazebo>
  <gazebo reference="left_f1_0">
    <mu1>1.1</mu1>
    <mu2>1.1</mu2>
    <kp>1000000.0</kp>
    <kd>10.0</kd>
    <maxVel>0.1</maxVel>
    <minDepth>0.00</minDepth>
    <maxContacts>1</maxContacts>
    <material>Gazebo/FlatBlack</material>
  </gazebo>
  <gazebo reference="left_f1_1">
    <mu1>1.1</mu1>
    <mu2>1.1</mu2>
    <kp>1000000.0</kp>
    <kd>10.0</kd>
    <maxVel>0.1</maxVel>
    <minDepth>0.00</minDepth>
    <maxContacts>1</maxContacts>
    <material>Gazebo/FlatBlack</material>
  </gazebo>
  <gazebo reference="left_f1_2">
    <mu1>1.1</mu1>
    <mu2>1.1</mu2>
    <kp>1000000.0</kp>
    <kd>10.0</kd>
    <maxVel>0.1</maxVel>
    <minDepth>0.00</minDepth>
    <maxContacts>1</maxContacts>
    <material>Gazebo/FlatBlack</material>
  </gazebo>
  <gazebo reference="left_f1_j0">
    <cfmDamping>1</cfmDamping>
  </gazebo>
  <gazebo reference="left_f1_j1">
    <cfmDamping>1</cfmDamping>
  </gazebo>
  <gazebo reference="left_f1_j2">
    <cfmDamping>1</cfmDamping>
  </gazebo>
  <link name="left_f2_base">
    <origin rpy="0 0 0" xyz="0 0 0"/>
    <inertial>
      <!-- total mass is 2.303 kg, palm is about 1.303 kg, distribute the rest into _base -->
      <mass value="0.250"/>
      <!-- (2.303 - 1.303) / 4 -->
      <origin xyz="0 0 0"/>
      <!-- model as sphere with radius of 1cm -->
      <inertia ixx="0.00001" ixy="0" ixz="0" iyy="0.00001" iyz="0" izz="0.00001"/>
    </inertial>
  </link>
  <link name="left_f2_fixed_accel">
    <origin rpy="0 0 0" xyz="0 0 0"/>
    <inertial>
      <mass value="0.01"/>
      <origin xyz="0 0 0"/>
      <inertia ixx="0.000001" ixy="0" ixz="0" iyy="0.000001" iyz="0" izz="0.000001"/>
    </inertial>
  </link>
  <link name="left_f2_0">
    <origin rpy="0 0 0" xyz="0 0 0"/>
    <inertial>
      <mass value="0.106"/>
      <!-- F1 -->
      <origin xyz="0 0 0"/>
      <!-- solid cylinder -->
      <inertia ixx="0.000011925" ixy="0" ixz="0" iyy="0.00011505" iyz="0" izz="0.00011505"/>
    </inertial>
    <!-- begin simple shape approximation of f0 -->
    <collision group="default">
      <origin rpy="0 0 0" xyz="0 0 0.003"/>
      <geometry>
        <cylinder length="0.023" radius="0.015"/>
      </geometry>
    </collision>
    <collision group="other">
      <origin rpy="1.57079632679 0 0" xyz="0.011 0 0.003"/>
      <geometry>
        <cylinder length="0.023" radius="0.01"/>
      </geometry>
    </collision>
    <!--   end simple shape approximation of f0 -->
    <!-- begin visual shape approximation of f0 -->
    <visual>
      <origin rpy="0 0 0" xyz="0 0 0.003"/>
      <geometry>
        <cylinder length="0.023" radius="0.015"/>
      </geometry>
      <material name="left_sandia_hand_skin_suntan">
        <color rgba="0.7 0.4 0.2 1.0"/>
      </material>
    </visual>
    <visual>
      <origin rpy="1.57079632679 0 0" xyz="0.011 0 0.003"/>
      <geometry>
        <cylinder length="0.023" radius="0.01"/>
      </geometry>
      <material name="left_sandia_hand_skin_suntan">
        <color rgba="0.7 0.4 0.2 1.0"/>
      </material>
    </visual>
    <!--   end visual shape approximation of f0 -->
    <!-- begin collision mesh of f0 ->
      <collision group="default">
        <origin xyz="0 0 0" rpy="0 0 0"/>
        <geometry>
          <mesh filename="package://sandia_hand_description/meshes/f0.stl"/>
        </geometry>
      </collision>
      <!-   end collision mesh of f0 -->
    <!-- begin visual mesh of f0 ->
      <visual>
        <origin xyz="0 0 0" rpy="0 0 0"/>
        <geometry>
          <mesh filename="package://sandia_hand_description/meshes/f0.stl"/>
        </geometry>
        <material name="${side}_sandia_hand_skin_suntan">
          <color rgba="0.7 0.4 0.2 1.0"/>
        </material>
      </visual>
      <!-   end visual mesh of f0 -->
  </link>
  <link name="left_f2_1">
    <origin rpy="0 0 0" xyz="0 0 0"/>
    <inertial>
      <mass value="0.033"/>
      <!-- F2 -->
      <origin xyz="0 0 0"/>
      <!-- solid cylinder -->
      <inertia ixx="0.00000165" ixy="0" ixz="0" iyy="0.00001316975" iyz="0" izz="0.00001316975"/>
    </inertial>
    <!-- begin simple shape approximation of f1 -->
    <collision group="default">
      <origin rpy="0 1.57079632679 0" xyz="0.024 0 0"/>
      <geometry>
        <cylinder length="0.067" radius="0.01"/>
      </geometry>
    </collision>
    <!--   end simple shape approximation of f1 -->
    <!-- begin visual shape approximation of f1 -->
    <visual>
      <origin rpy="0 1.57079632679 0" xyz="0.024 0 0"/>
      <geometry>
        <cylinder length="0.067" radius="0.01"/>
      </geometry>
      <material name="left_sandia_hand_skin">
        <color rgba="0.835 0.655 0.345 1.0"/>
      </material>
    </visual>
    <!--   end visual shape approximation of f1 -->
    <!-- begin collision mesh of f1 ->
      <collision group="default">
        <origin xyz="0 0 0" rpy="0 0 0"/>
        <geometry>
          <mesh filename="package://sandia_hand_description/meshes/f1.stl"/>
        </geometry>
      </collision>
      <!-   end collision mesh of f1 -->
    <!-- begin visual mesh of f1 ->
      <visual>
        <origin xyz="0 0 0" rpy="0 0 0"/>
        <geometry>
          <mesh filename="package://sandia_hand_description/meshes/f1.stl"/>
        </geometry>
        <material name="${side}_sandia_hand_skin">
          <color rgba="0.835 0.655 0.345 1.0"/>
        </material>
      </visual>
      <!-   end visual mesh of f1 -->
  </link>
  <link name="left_f2_1_accel">
    <origin rpy="0 0 0" xyz="0 0 0"/>
    <inertial>
      <mass value="0.01"/>
      <origin xyz="0 0 0"/>
      <inertia ixx="0.000001" ixy="0" ixz="0" iyy="0.000001" iyz="0" izz="0.000001"/>
    </inertial>
  </link>
  <link name="left_f2_2">
    <origin rpy="0 0 0" xyz="0 0 0"/>
    <inertial>
      <mass value="0.033"/>
      <!-- F3 -->
      <origin xyz="0 0 0"/>
      <!-- solid cylinder -->
      <inertia ixx="0.0000013365" ixy="0" ixz="0" iyy="0.000009603" iyz="0" izz="0.000009603"/>
    </inertial>
    <!-- begin simple shape approximation of f2 -->
    <collision group="default">
      <origin rpy="0 1.57079632679 0" xyz="0.024 0 0"/>
      <geometry>
        <cylinder length="0.057" radius="0.009"/>
      </geometry>
    </collision>
    <collision group="other">
      <origin rpy="0 0 0" xyz="0.052 0 0"/>
      <geometry>
        <sphere radius="0.009"/>
      </geometry>
    </collision>
    <!--   end simple shape approximation of f2 -->
    <!-- begin visual shape approximation of f2 -->
    <visual>
      <origin rpy="0 1.57079632679 0" xyz="0.024 0 0"/>
      <geometry>
        <cylinder length="0.057" radius="0.009"/>
      </geometry>
      <material name="left_sandia_hand_skin_suntan">
        <color rgba="0.8 0.6 0.3 1.0"/>
      </material>
    </visual>
    <visual>
      <origin rpy="0 0 0" xyz="0.052 0 0"/>
      <geometry>
        <sphere radius="0.009"/>
      </geometry>
      <material name="left_sandia_hand_skin_suntan">
        <color rgba="0.8 0.6 0.3 1.0"/>
      </material>
    </visual>
    <!-- begin collision mesh of f2    ->
      <collision group="default">
        <origin xyz="0 0 0" rpy="0 0 0"/>
        <geometry>
          <mesh filename="package://sandia_hand_description/meshes/f2.stl"/>
        </geometry>
      </collision>
      <!-   end collision mesh of f2 -->
    <!-- begin visual mesh of f2    ->
      <visual>
        <origin xyz="0 0 0" rpy="0 0 0"/>
        <geometry>
          <mesh filename="package://sandia_hand_description/meshes/f2.stl"/>
        </geometry>
        <material name="${side}_sandia_hand_skin_suntan">
          <color rgba="0.8 0.6 0.3 1.0"/>
        </material>
      </visual>
      <!-   end visual mesh of f2 -->
  </link>
  <link name="left_f2_2_accel">
    <origin rpy="0 0 0" xyz="0 0 0"/>
    <inertial>
      <mass value="0.01"/>
      <origin xyz="0 0 0"/>
      <inertia ixx="0.000001" ixy="0" ixz="0" iyy="0.000001" iyz="0" izz="0.000001"/>
    </inertial>
  </link>
  <joint name="left_f2_base" type="fixed">
    <parent link="left_palm"/>
    <child link="left_f2_base"/>
    <origin rpy="0 0 -0.3" xyz="0.09 -0.06245 0"/>
  </joint>
  <joint name="left_f2_j0" type="revolute">
    <axis xyz="0 0 -1"/>
    <parent link="left_f2_base"/>
    <child link="left_f2_0"/>
    <limit effort="11" lower="-1.57079632679" upper="1.57079632679" velocity="-1"/>
    <safety_controller k_position="1000.0" k_velocity="1000.0" soft_lower_limit="-11.57079" soft_upper_limit="11.57079"/>
    <dynamics damping="1.0"/>
    <origin rpy="0 0 0" xyz="0 0 0"/>
  </joint>
  <joint name="left_f2_j1" type="revolute">
    <axis xyz="0 0 1"/>
    <parent link="left_f2_0"/>
    <child link="left_f2_1"/>
    <limit effort="28" lower="-1.57079632679" upper="1.57079632679" velocity="-1"/>
    <safety_controller k_position="1000.0" k_velocity="1000.0" soft_lower_limit="-11.57079" soft_upper_limit="11.57079"/>
    <dynamics damping="1.0"/>
    <origin rpy="1.57079632679 0 0" xyz="0.028 0 0"/>
  </joint>
  <joint name="left_f2_j2" type="revolute">
    <axis xyz="0 0 1"/>
    <parent link="left_f2_1"/>
    <child link="left_f2_2"/>
    <origin rpy="0 0 0" xyz="0.05 0 0"/>
    <safety_controller k_position="1000.0" k_velocity="1000.0" soft_lower_limit="-11.57079" soft_upper_limit="11.57079"/>
    <dynamics damping="1.0"/>
    <limit effort="28" lower="-1.57079632679" upper="1.57079632679" velocity="-1"/>
  </joint>
  <joint name="left_f2_fixed_accel" type="fixed">
    <parent link="left_f2_base"/>
    <child link="left_f2_fixed_accel"/>
    <origin rpy="0 0 0" xyz="-0.05 0 0"/>
  </joint>
  <joint name="left_f2_1_accel" type="fixed">
    <parent link="left_f2_1"/>
    <child link="left_f2_1_accel"/>
    <origin rpy="-1.57079632679 0 0" xyz="0.03 0 0"/>
  </joint>
  <joint name="left_f2_2_accel" type="fixed">
    <parent link="left_f2_2"/>
    <child link="left_f2_2_accel"/>
    <origin rpy="-1.57079632679 0 0" xyz="0.04 0 0"/>
  </joint>
  <transmission name="left_f2_j0" type="pr2_mechanism_model/SimpleTransmission">
    <joint name="left_f2_j0"/>
    <actuator name="left_f2_j0_motor"/>
    <mechanicalReduction>1</mechanicalReduction>
  </transmission>
  <transmission name="left_f2_j1" type="pr2_mechanism_model/SimpleTransmission">
    <joint name="left_f2_j1"/>
    <actuator name="left_f2_j1_motor"/>
    <mechanicalReduction>1</mechanicalReduction>
  </transmission>
  <transmission name="left_f2_j2" type="pr2_mechanism_model/SimpleTransmission">
    <joint name="left_f2_j2"/>
    <actuator name="left_f2_j2_motor"/>
    <mechanicalReduction>1</mechanicalReduction>
  </transmission>
  <gazebo reference="left_f2_base">
    <mu1>1.1</mu1>
    <mu2>1.1</mu2>
    <kp>1000000.0</kp>
    <kd>10.0</kd>
    <maxVel>0.1</maxVel>
    <minDepth>0.00</minDepth>
    <maxContacts>1</maxContacts>
    <material>Gazebo/FlatBlack</material>
  </gazebo>
  <gazebo reference="left_f2_0">
    <mu1>1.1</mu1>
    <mu2>1.1</mu2>
    <kp>1000000.0</kp>
    <kd>10.0</kd>
    <maxVel>0.1</maxVel>
    <minDepth>0.00</minDepth>
    <maxContacts>1</maxContacts>
    <material>Gazebo/FlatBlack</material>
  </gazebo>
  <gazebo reference="left_f2_1">
    <mu1>1.1</mu1>
    <mu2>1.1</mu2>
    <kp>1000000.0</kp>
    <kd>10.0</kd>
    <maxVel>0.1</maxVel>
    <minDepth>0.00</minDepth>
    <maxContacts>1</maxContacts>
    <material>Gazebo/FlatBlack</material>
  </gazebo>
  <gazebo reference="left_f2_2">
    <mu1>1.1</mu1>
    <mu2>1.1</mu2>
    <kp>1000000.0</kp>
    <kd>10.0</kd>
    <maxVel>0.1</maxVel>
    <minDepth>0.00</minDepth>
    <maxContacts>1</maxContacts>
    <material>Gazebo/FlatBlack</material>
  </gazebo>
  <gazebo reference="left_f2_j0">
    <cfmDamping>1</cfmDamping>
  </gazebo>
  <gazebo reference="left_f2_j1">
    <cfmDamping>1</cfmDamping>
  </gazebo>
  <gazebo reference="left_f2_j2">
    <cfmDamping>1</cfmDamping>
  </gazebo>
  <link name="left_f3_base">
    <origin rpy="0 0 0" xyz="0 0 0"/>
    <inertial>
      <!-- total mass is 2.303 kg, palm is about 1.303 kg, distribute the rest into _base -->
      <mass value="0.250"/>
      <!-- (2.303 - 1.303) / 4 -->
      <origin xyz="0 0 0"/>
      <!-- model as sphere with radius of 1cm -->
      <inertia ixx="0.00001" ixy="0" ixz="0" iyy="0.00001" iyz="0" izz="0.00001"/>
    </inertial>
  </link>
  <link name="left_f3_fixed_accel">
    <origin rpy="0 0 0" xyz="0 0 0"/>
    <inertial>
      <mass value="0.01"/>
      <origin xyz="0 0 0"/>
      <inertia ixx="0.000001" ixy="0" ixz="0" iyy="0.000001" iyz="0" izz="0.000001"/>
    </inertial>
  </link>
  <link name="left_f3_0">
    <origin rpy="0 0 0" xyz="0 0 0"/>
    <inertial>
      <mass value="0.106"/>
      <!-- F1 -->
      <origin xyz="0 0 0"/>
      <!-- solid cylinder -->
      <inertia ixx="0.000011925" ixy="0" ixz="0" iyy="0.00011505" iyz="0" izz="0.00011505"/>
    </inertial>
    <!-- begin simple shape approximation of f0 -->
    <collision group="default">
      <origin rpy="0 0 0" xyz="0 0 0.003"/>
      <geometry>
        <cylinder length="0.023" radius="0.015"/>
      </geometry>
    </collision>
    <collision group="other">
      <origin rpy="1.57079632679 0 0" xyz="0.011 0 0.003"/>
      <geometry>
        <cylinder length="0.023" radius="0.01"/>
      </geometry>
    </collision>
    <!--   end simple shape approximation of f0 -->
    <!-- begin visual shape approximation of f0 -->
    <visual>
      <origin rpy="0 0 0" xyz="0 0 0.003"/>
      <geometry>
        <cylinder length="0.023" radius="0.015"/>
      </geometry>
      <material name="left_sandia_hand_skin_suntan">
        <color rgba="0.7 0.4 0.2 1.0"/>
      </material>
    </visual>
    <visual>
      <origin rpy="1.57079632679 0 0" xyz="0.011 0 0.003"/>
      <geometry>
        <cylinder length="0.023" radius="0.01"/>
      </geometry>
      <material name="left_sandia_hand_skin_suntan">
        <color rgba="0.7 0.4 0.2 1.0"/>
      </material>
    </visual>
    <!--   end visual shape approximation of f0 -->
    <!-- begin collision mesh of f0 ->
      <collision group="default">
        <origin xyz="0 0 0" rpy="0 0 0"/>
        <geometry>
          <mesh filename="package://sandia_hand_description/meshes/f0.stl"/>
        </geometry>
      </collision>
      <!-   end collision mesh of f0 -->
    <!-- begin visual mesh of f0 ->
      <visual>
        <origin xyz="0 0 0" rpy="0 0 0"/>
        <geometry>
          <mesh filename="package://sandia_hand_description/meshes/f0.stl"/>
        </geometry>
        <material name="${side}_sandia_hand_skin_suntan">
          <color rgba="0.7 0.4 0.2 1.0"/>
        </material>
      </visual>
      <!-   end visual mesh of f0 -->
  </link>
  <link name="left_f3_1">
    <origin rpy="0 0 0" xyz="0 0 0"/>
    <inertial>
      <mass value="0.033"/>
      <!-- F2 -->
      <origin xyz="0 0 0"/>
      <!-- solid cylinder -->
      <inertia ixx="0.00000165" ixy="0" ixz="0" iyy="0.00001316975" iyz="0" izz="0.00001316975"/>
    </inertial>
    <!-- begin simple shape approximation of f1 -->
    <collision group="default">
      <origin rpy="0 1.57079632679 0" xyz="0.024 0 0"/>
      <geometry>
        <cylinder length="0.067" radius="0.01"/>
      </geometry>
    </collision>
    <!--   end simple shape approximation of f1 -->
    <!-- begin visual shape approximation of f1 -->
    <visual>
      <origin rpy="0 1.57079632679 0" xyz="0.024 0 0"/>
      <geometry>
        <cylinder length="0.067" radius="0.01"/>
      </geometry>
      <material name="left_sandia_hand_skin">
        <color rgba="0.835 0.655 0.345 1.0"/>
      </material>
    </visual>
    <!--   end visual shape approximation of f1 -->
    <!-- begin collision mesh of f1 ->
      <collision group="default">
        <origin xyz="0 0 0" rpy="0 0 0"/>
        <geometry>
          <mesh filename="package://sandia_hand_description/meshes/f1.stl"/>
        </geometry>
      </collision>
      <!-   end collision mesh of f1 -->
    <!-- begin visual mesh of f1 ->
      <visual>
        <origin xyz="0 0 0" rpy="0 0 0"/>
        <geometry>
          <mesh filename="package://sandia_hand_description/meshes/f1.stl"/>
        </geometry>
        <material name="${side}_sandia_hand_skin">
          <color rgba="0.835 0.655 0.345 1.0"/>
        </material>
      </visual>
      <!-   end visual mesh of f1 -->
  </link>
  <link name="left_f3_1_accel">
    <origin rpy="0 0 0" xyz="0 0 0"/>
    <inertial>
      <mass value="0.01"/>
      <origin xyz="0 0 0"/>
      <inertia ixx="0.000001" ixy="0" ixz="0" iyy="0.000001" iyz="0" izz="0.000001"/>
    </inertial>
  </link>
  <link name="left_f3_2">
    <origin rpy="0 0 0" xyz="0 0 0"/>
    <inertial>
      <mass value="0.033"/>
      <!-- F3 -->
      <origin xyz="0 0 0"/>
      <!-- solid cylinder -->
      <inertia ixx="0.0000013365" ixy="0" ixz="0" iyy="0.000009603" iyz="0" izz="0.000009603"/>
    </inertial>
    <!-- begin simple shape approximation of f2 -->
    <collision group="default">
      <origin rpy="0 1.57079632679 0" xyz="0.024 0 0"/>
      <geometry>
        <cylinder length="0.057" radius="0.009"/>
      </geometry>
    </collision>
    <collision group="other">
      <origin rpy="0 0 0" xyz="0.052 0 0"/>
      <geometry>
        <sphere radius="0.009"/>
      </geometry>
    </collision>
    <!--   end simple shape approximation of f2 -->
    <!-- begin visual shape approximation of f2 -->
    <visual>
      <origin rpy="0 1.57079632679 0" xyz="0.024 0 0"/>
      <geometry>
        <cylinder length="0.057" radius="0.009"/>
      </geometry>
      <material name="left_sandia_hand_skin_suntan">
        <color rgba="0.8 0.6 0.3 1.0"/>
      </material>
    </visual>
    <visual>
      <origin rpy="0 0 0" xyz="0.052 0 0"/>
      <geometry>
        <sphere radius="0.009"/>
      </geometry>
      <material name="left_sandia_hand_skin_suntan">
        <color rgba="0.8 0.6 0.3 1.0"/>
      </material>
    </visual>
    <!-- begin collision mesh of f2    ->
      <collision group="default">
        <origin xyz="0 0 0" rpy="0 0 0"/>
        <geometry>
          <mesh filename="package://sandia_hand_description/meshes/f2.stl"/>
        </geometry>
      </collision>
      <!-   end collision mesh of f2 -->
    <!-- begin visual mesh of f2    ->
      <visual>
        <origin xyz="0 0 0" rpy="0 0 0"/>
        <geometry>
          <mesh filename="package://sandia_hand_description/meshes/f2.stl"/>
        </geometry>
        <material name="${side}_sandia_hand_skin_suntan">
          <color rgba="0.8 0.6 0.3 1.0"/>
        </material>
      </visual>
      <!-   end visual mesh of f2 -->
  </link>
  <link name="left_f3_2_accel">
    <origin rpy="0 0 0" xyz="0 0 0"/>
    <inertial>
      <mass value="0.01"/>
      <origin xyz="0 0 0"/>
      <inertia ixx="0.000001" ixy="0" ixz="0" iyy="0.000001" iyz="0" izz="0.000001"/>
    </inertial>
  </link>
  <joint name="left_f3_base" type="fixed">
    <parent link="left_palm"/>
    <child link="left_f3_base"/>
    <origin rpy="0 -1.57079632679 2.3562" xyz="0.03995 0.04383 0.014"/>
  </joint>
  <joint name="left_f3_j0" type="revolute">
    <axis xyz="0 0 -1"/>
    <parent link="left_f3_base"/>
    <child link="left_f3_0"/>
    <limit effort="11" lower="-1.57079632679" upper="1.57079632679" velocity="-1"/>
    <safety_controller k_position="1000.0" k_velocity="1000.0" soft_lower_limit="-11.57079" soft_upper_limit="11.57079"/>
    <dynamics damping="1.0"/>
    <origin rpy="0 0 0" xyz="0 0 0"/>
  </joint>
  <joint name="left_f3_j1" type="revolute">
    <axis xyz="0 0 1"/>
    <parent link="left_f3_0"/>
    <child link="left_f3_1"/>
    <limit effort="28" lower="-1.57079632679" upper="1.57079632679" velocity="-1"/>
    <safety_controller k_position="1000.0" k_velocity="1000.0" soft_lower_limit="-11.57079" soft_upper_limit="11.57079"/>
    <dynamics damping="1.0"/>
    <origin rpy="1.57079632679 0 0" xyz="0.028 0 0"/>
  </joint>
  <joint name="left_f3_j2" type="revolute">
    <axis xyz="0 0 1"/>
    <parent link="left_f3_1"/>
    <child link="left_f3_2"/>
    <origin rpy="0 0 0" xyz="0.05 0 0"/>
    <safety_controller k_position="1000.0" k_velocity="1000.0" soft_lower_limit="-11.57079" soft_upper_limit="11.57079"/>
    <dynamics damping="1.0"/>
    <limit effort="28" lower="-1.57079632679" upper="1.57079632679" velocity="-1"/>
  </joint>
  <joint name="left_f3_fixed_accel" type="fixed">
    <parent link="left_f3_base"/>
    <child link="left_f3_fixed_accel"/>
    <origin rpy="0 0 0" xyz="-0.05 0 0"/>
  </joint>
  <joint name="left_f3_1_accel" type="fixed">
    <parent link="left_f3_1"/>
    <child link="left_f3_1_accel"/>
    <origin rpy="-1.57079632679 0 0" xyz="0.03 0 0"/>
  </joint>
  <joint name="left_f3_2_accel" type="fixed">
    <parent link="left_f3_2"/>
    <child link="left_f3_2_accel"/>
    <origin rpy="-1.57079632679 0 0" xyz="0.04 0 0"/>
  </joint>
  <transmission name="left_f3_j0" type="pr2_mechanism_model/SimpleTransmission">
    <joint name="left_f3_j0"/>
    <actuator name="left_f3_j0_motor"/>
    <mechanicalReduction>1</mechanicalReduction>
  </transmission>
  <transmission name="left_f3_j1" type="pr2_mechanism_model/SimpleTransmission">
    <joint name="left_f3_j1"/>
    <actuator name="left_f3_j1_motor"/>
    <mechanicalReduction>1</mechanicalReduction>
  </transmission>
  <transmission name="left_f3_j2" type="pr2_mechanism_model/SimpleTransmission">
    <joint name="left_f3_j2"/>
    <actuator name="left_f3_j2_motor"/>
    <mechanicalReduction>1</mechanicalReduction>
  </transmission>
  <gazebo reference="left_f3_base">
    <mu1>1.1</mu1>
    <mu2>1.1</mu2>
    <kp>1000000.0</kp>
    <kd>10.0</kd>
    <maxVel>0.1</maxVel>
    <minDepth>0.00</minDepth>
    <maxContacts>1</maxContacts>
    <material>Gazebo/FlatBlack</material>
  </gazebo>
  <gazebo reference="left_f3_0">
    <mu1>1.1</mu1>
    <mu2>1.1</mu2>
    <kp>1000000.0</kp>
    <kd>10.0</kd>
    <maxVel>0.1</maxVel>
    <minDepth>0.00</minDepth>
    <maxContacts>1</maxContacts>
    <material>Gazebo/FlatBlack</material>
  </gazebo>
  <gazebo reference="left_f3_1">
    <mu1>1.1</mu1>
    <mu2>1.1</mu2>
    <kp>1000000.0</kp>
    <kd>10.0</kd>
    <maxVel>0.1</maxVel>
    <minDepth>0.00</minDepth>
    <maxContacts>1</maxContacts>
    <material>Gazebo/FlatBlack</material>
  </gazebo>
  <gazebo reference="left_f3_2">
    <mu1>1.1</mu1>
    <mu2>1.1</mu2>
    <kp>1000000.0</kp>
    <kd>10.0</kd>
    <maxVel>0.1</maxVel>
    <minDepth>0.00</minDepth>
    <maxContacts>1</maxContacts>
    <material>Gazebo/FlatBlack</material>
  </gazebo>
  <gazebo reference="left_f3_j0">
    <cfmDamping>1</cfmDamping>
  </gazebo>
  <gazebo reference="left_f3_j1">
    <cfmDamping>1</cfmDamping>
  </gazebo>
  <gazebo reference="left_f3_j2">
    <cfmDamping>1</cfmDamping>
  </gazebo>
  <gazebo reference="left_palm">
    <mu1>1.1</mu1>
    <mu2>1.1</mu2>
    <kp>1000000.0</kp>
    <kd>1.0</kd>
    <maxVel>0.1</maxVel>
    <minDepth>0.00</minDepth>
    <maxContacts>6</maxContacts>
    <material>Gazebo/FlatBlack</material>
  </gazebo>
  <joint name="left_palm_left_camera_frame_joint" type="fixed">
    <origin rpy="-0.6708 -1.57079632679 3.14159265359" xyz="0.0435128991906 -0.0451672761576 0.025"/>
    <parent link="left_palm"/>
    <child link="left_palm_left_camera_frame"/>
  </joint>
  <link name="left_palm_left_camera_frame">
    <inertial>
      <mass value="0.01"/>
      <origin xyz="0 0 0"/>
      <inertia ixx="0.0001" ixy="0.0" ixz="0.0" iyy="0.0001" iyz="0.0" izz="0.0001"/>
    </inertial>
    <visual group="default">
      <origin rpy="0 0 0" xyz="0 0 0"/>
      <geometry>
        <box size="0.003 0.010 0.007"/>
      </geometry>
    </visual>
  </link>
  <joint name="left_palm_left_camera_optical_frame_joint" type="fixed">
    <origin rpy="-1.57079632679 0.0 -1.57079632679" xyz="0 0 0"/>
    <parent link="left_palm_left_camera_frame"/>
    <child link="left_palm_left_camera_optical_frame"/>
  </joint>
  <link name="left_palm_left_camera_optical_frame"/>
  <gazebo reference="left_palm_left_camera_frame">
    <sensor name="left_palm_stereo_camera" type="multicamera">
      <update_rate>30.0</update_rate>
      <camera name="left">
        <horizontal_fov>1.25663706144</horizontal_fov>
        <image>
          <width>752</width>
          <height>480</height>
          <format>L8</format>
        </image>
        <clip>
          <near>0.02</near>
          <far>100</far>
        </clip>
        <noise>
          <type>gaussian</type>
          <mean>0.0</mean>
          <stddev>0.007</stddev>
        </noise>
      </camera>
      <camera name="right">
        <pose>0 -0.04 0  0 0 0</pose>
        <horizontal_fov>1.25663706144</horizontal_fov>
        <image>
          <width>752</width>
          <height>480</height>
          <format>L8</format>
        </image>
        <clip>
          <near>0.02</near>
          <far>100</far>
        </clip>
        <noise>
          <type>gaussian</type>
          <mean>0.0</mean>
          <stddev>0.007</stddev>
        </noise>
      </camera>
      <plugin filename="libgazebo_ros_multicamera.so" name="stereo_camera_controller">
        <alwaysOn>true</alwaysOn>
        <updateRate>0.0</updateRate>
        <cameraName>sandia_hands/l_hand/camera</cameraName>
        <imageTopicName>image_raw</imageTopicName>
        <cameraInfoTopicName>camera_info</cameraInfoTopicName>
        <frameName>left_palm_left_camera_optical_frame</frameName>
        <hackBaseline>0.04</hackBaseline>
        <distortionK1>0.0</distortionK1>
        <distortionK2>0.0</distortionK2>
        <distortionK3>0.0</distortionK3>
        <distortionT1>0.0</distortionT1>
        <distortionT2>0.0</distortionT2>
      </plugin>
    </sensor>
  </gazebo>
  <joint name="left_palm_right_camera_frame_joint" type="fixed">
    <origin rpy="-0.6708 -1.57079632679 3.14159265359" xyz="0.0683774130138 -0.0138342911048 0.025"/>
    <parent link="left_palm"/>
    <child link="left_palm_right_camera_frame"/>
  </joint>
  <link name="left_palm_right_camera_frame">
    <inertial>
      <mass value="0.01"/>
      <origin xyz="0 0 0"/>
      <inertia ixx="0.0001" ixy="0.0" ixz="0.0" iyy="0.0001" iyz="0.0" izz="0.0001"/>
    </inertial>
    <visual group="default">
      <origin rpy="0 0 0" xyz="0 0 0"/>
      <geometry>
        <box size="0.003 0.010 0.007"/>
      </geometry>
    </visual>
  </link>
  <joint name="left_palm_right_camera_optical_frame_joint" type="fixed">
    <origin rpy="-1.57079632679 0.0 -1.57079632679" xyz="0 0 0"/>
    <parent link="left_palm_right_camera_frame"/>
    <child link="left_palm_right_camera_optical_frame"/>
  </joint>
  <link name="left_palm_right_camera_optical_frame"/>
  <gazebo>
    <plugin filename="libContactModelPlugin.so" name="sandia_contact_plugin">
      <contact>
        <collision>l_hand::l_hand_collision_left_palm</collision>
        <collision>l_hand::l_hand_collision_left_palm_1</collision>
        <collision>l_hand::l_hand_collision_left_palm_3</collision>
        <collision>l_hand::l_hand_collision_left_palm_4</collision>
        <collision>l_hand::l_hand_collision_left_palm_5</collision>
        <collision>left_f0_1::left_f0_1_collision</collision>
        <collision>left_f0_2::left_f0_2_collision</collision>
        <collision>left_f1_1::left_f1_1_collision</collision>
        <collision>left_f1_2::left_f1_2_collision</collision>
        <collision>left_f2_1::left_f2_1_collision</collision>
        <collision>left_f2_2::left_f2_2_collision</collision>
        <collision>left_f3_1::left_f3_1_collision</collision>
        <collision>left_f3_2::left_f3_2_collision</collision>
      </contact>
    </plugin>
  </gazebo>
  <gazebo reference="l_hand">
    <sensor name="imu_sensor" type="imu">
      <always_on>1</always_on>
      <update_rate>1000.0</update_rate>
      <imu>
        <noise>
          <type>gaussian</type>
          <rate>
            <mean>0.0</mean>
            <stddev>2e-4</stddev>
            <bias_mean>0.0000075</bias_mean>
            <bias_stddev>0.0000008</bias_stddev>
          </rate>
          <accel>
            <mean>0.0</mean>
            <stddev>1.7e-2</stddev>
            <bias_mean>0.1</bias_mean>
            <bias_stddev>0.001</bias_stddev>
          </accel>
        </noise>
      </imu>
    </sensor>
  </gazebo>
  <gazebo>
    <!-- robot model offset -->
    <pose>0 0 0.93 0 0 0</pose>
  </gazebo>
  <gazebo>
    <plugin filename="libAtlasPlugin.so" name="atlas_plugin"/>
    <plugin filename="libgazebo_ros_joint_pose_trajectory.so" name="joint_trajectory_plugin">
      <topicName>joint_trajectory</topicName>
      <updateRate>1000.0</updateRate>
    </plugin>
    <!--
    <plugin filename="libgazebo_ros_controller_manager.so" name="gazebo_ros_controller_manager">
      <alwaysOn>true</alwaysOn>
      <updateRate>1000.0</updateRate>
    </plugin>
    -->
  </gazebo>
  <link name="imu_link">
    <inertial>
      <mass value="0.1"/>
      <origin xyz="0 0 0"/>
      <inertia ixx="0.001" ixy="0" ixz="0" iyy="0.001" iyz="0" izz="0.001"/>
    </inertial>
    <visual>
      <origin rpy="0 0 0" xyz="0 0 0"/>
      <geometry>
        <box size="0.01 0.01 0.01"/>
      </geometry>
    </visual>
  </link>
  <joint name="imu_joint" type="fixed">
    <parent link="pelvis"/>
    <child link="imu_link"/>
    <origin rpy="0 0 0" xyz="0.05991527603 0 -0.01415"/>
  </joint>
  <gazebo reference="imu_link">
    <!-- this is expected to be reparented to pelvis with appropriate offset
         when imu_link is reduced by fixed joint reduction -->
    <!-- todo: this is working with gazebo 1.4, need to write a unit test -->
    <sensor name="imu_sensor" type="imu">
      <always_on>1</always_on>
      <update_rate>1000.0</update_rate>
      <imu>
        <noise>
          <type>gaussian</type>
          <!-- Noise parameters from Boston Dynamics
               (http://gazebosim.org/wiki/Sensor_noise):
                 rates (rad/s): mean=0, stddev=2e-4
                 accels (m/s/s): mean=0, stddev=1.7e-2
                 rate bias (rad/s): 5e-6 - 1e-5
                 accel bias (m/s/s): 1e-1
               Experimentally, simulation provide rates with noise of
               about 1e-3 rad/s and accels with noise of about 1e-1 m/s/s.
               So we don't expect to see the noise unless number of inner iterations
               are increased.

               We will add bias.  In this model, bias is sampled once for rates
               and once for accels at startup; the sign (negative or positive)
               of each bias is then switched with equal probability.  Thereafter,
               the biases are fixed additive offsets.  We choose
               bias means and stddevs to produce biases close to the provided
               data. -->
          <rate>
            <mean>0.0</mean>
            <stddev>2e-4</stddev>
            <bias_mean>0.0000075</bias_mean>
            <bias_stddev>0.0000008</bias_stddev>
          </rate>
          <accel>
            <mean>0.0</mean>
            <stddev>1.7e-2</stddev>
            <bias_mean>0.1</bias_mean>
            <bias_stddev>0.001</bias_stddev>
          </accel>
        </noise>
      </imu>
    </sensor>
  </gazebo>
  <gazebo reference="l_arm_wrx">
    <provideFeedback>1</provideFeedback>
  </gazebo>
  <gazebo reference="r_arm_wrx">
    <provideFeedback>1</provideFeedback>
  </gazebo>
  <gazebo reference="l_leg_akx">
    <provideFeedback>1</provideFeedback>
    <cfmDamping>1</cfmDamping>
  </gazebo>
  <gazebo reference="r_leg_akx">
    <provideFeedback>1</provideFeedback>
    <cfmDamping>1</cfmDamping>
  </gazebo>
  <gazebo reference="r_foot">
    <!-- kp and kd for rubber -->
    <kp>1000000.0</kp>
    <kd>100.0</kd>
    <mu1>1.5</mu1>
    <mu2>1.5</mu2>
    <fdir1>1 0 0</fdir1>
    <maxVel>1.0</maxVel>
    <minDepth>0.00</minDepth>
  </gazebo>
  <gazebo reference="l_foot">
    <kp>1000000.0</kp>
    <kd>100.0</kd>
    <mu1>1.5</mu1>
    <mu2>1.5</mu2>
    <fdir1>1 0 0</fdir1>
    <maxVel>1.0</maxVel>
    <minDepth>0.00</minDepth>
  </gazebo>
  <gazebo reference="l_clav">
    <mu1>0.9</mu1>
    <mu2>0.9</mu2>
  </gazebo>
  <gazebo reference="l_farm">
    <mu1>0.9</mu1>
    <mu2>0.9</mu2>
  </gazebo>
  <gazebo reference="l_hand">
    <mu1>0.9</mu1>
    <mu2>0.9</mu2>
  </gazebo>
  <gazebo reference="l_larm">
    <mu1>0.9</mu1>
    <mu2>0.9</mu2>
  </gazebo>
  <gazebo reference="l_lglut">
    <mu1>0.9</mu1>
    <mu2>0.9</mu2>
  </gazebo>
  <gazebo reference="l_lleg">
    <mu1>0.9</mu1>
    <mu2>0.9</mu2>
  </gazebo>
  <gazebo reference="l_scap">
    <mu1>0.9</mu1>
    <mu2>0.9</mu2>
  </gazebo>
  <gazebo reference="l_talus">
    <mu1>0.9</mu1>
    <mu2>0.9</mu2>
  </gazebo>
  <gazebo reference="l_uarm">
    <mu1>0.9</mu1>
    <mu2>0.9</mu2>
  </gazebo>
  <gazebo reference="l_uglut">
    <mu1>0.9</mu1>
    <mu2>0.9</mu2>
  </gazebo>
  <gazebo reference="l_uleg">
    <mu1>0.9</mu1>
    <mu2>0.9</mu2>
  </gazebo>
  <gazebo reference="ltorso">
    <mu1>0.9</mu1>
    <mu2>0.9</mu2>
  </gazebo>
  <gazebo reference="mtorso">
    <mu1>0.9</mu1>
    <mu2>0.9</mu2>
  </gazebo>
  <gazebo reference="pelvis">
    <mu1>0.9</mu1>
    <mu2>0.9</mu2>
  </gazebo>
  <gazebo reference="r_clav">
    <mu1>0.9</mu1>
    <mu2>0.9</mu2>
  </gazebo>
  <gazebo reference="r_farm">
    <mu1>0.9</mu1>
    <mu2>0.9</mu2>
  </gazebo>
  <gazebo reference="r_hand">
    <mu1>0.9</mu1>
    <mu2>0.9</mu2>
  </gazebo>
  <gazebo reference="r_larm">
    <mu1>0.9</mu1>
    <mu2>0.9</mu2>
  </gazebo>
  <gazebo reference="r_lglut">
    <mu1>0.9</mu1>
    <mu2>0.9</mu2>
  </gazebo>
  <gazebo reference="r_lleg">
    <mu1>0.9</mu1>
    <mu2>0.9</mu2>
  </gazebo>
  <gazebo reference="r_scap">
    <mu1>0.9</mu1>
    <mu2>0.9</mu2>
  </gazebo>
  <gazebo reference="r_talus">
    <mu1>0.9</mu1>
    <mu2>0.9</mu2>
  </gazebo>
  <gazebo reference="r_uarm">
    <mu1>0.9</mu1>
    <mu2>0.9</mu2>
  </gazebo>
  <gazebo reference="r_uglut">
    <mu1>0.9</mu1>
    <mu2>0.9</mu2>
  </gazebo>
  <gazebo reference="r_uleg">
    <mu1>0.9</mu1>
    <mu2>0.9</mu2>
  </gazebo>
  <gazebo reference="utorso">
    <mu1>0.9</mu1>
    <mu2>0.9</mu2>
  </gazebo>
  <gazebo>
    <plugin filename="libgazebo_ros_p3d.so" name="gazebo_ros_p3d">
      <bodyName>pelvis</bodyName>
      <topicName>/ground_truth_odom</topicName>
      <alwaysOn>true</alwaysOn>
      <updateRate>100.0</updateRate>
    </plugin>
  </gazebo>
  <gazebo reference="r_foot">
    <!-- contact sensor -->
    <sensor name="r_foot_contact_sensor" type="contact">
      <update_rate>1000.0</update_rate>
      <always_on>1</always_on>
      <contact>
        <collision>r_foot_collision</collision>
        <topic>/r_foot_contact</topic>
      </contact>
    </sensor>
  </gazebo>
  <gazebo reference="l_foot">
    <!-- contact sensor -->
    <sensor name="l_foot_contact_sensor" type="contact">
      <update_rate>1000.0</update_rate>
      <always_on>1</always_on>
      <contact>
        <collision>l_foot_collision</collision>
        <topic>/l_foot_contact</topic>
      </contact>
    </sensor>
  </gazebo>
  <gazebo>
    <plugin filename="libgazebo_ros_force.so" name="gazebo_ros_force">
      <bodyName>pelvis</bodyName>
      <topicName>/atlas/apply_pelvis_force</topicName>
    </plugin>
  </gazebo>
  <gazebo reference="back_bkz">
    <cfmDamping>1</cfmDamping>
  </gazebo>
  <gazebo reference="back_bky">
    <cfmDamping>1</cfmDamping>
  </gazebo>
  <gazebo reference="back_bkx">
    <cfmDamping>1</cfmDamping>
  </gazebo>
  <gazebo reference="l_arm_elx">
    <cfmDamping>1</cfmDamping>
  </gazebo>
  <gazebo reference="l_arm_ely">
    <cfmDamping>1</cfmDamping>
  </gazebo>
  <gazebo reference="l_arm_wrx">
    <cfmDamping>1</cfmDamping>
  </gazebo>
  <gazebo reference="l_arm_shx">
    <cfmDamping>1</cfmDamping>
  </gazebo>
  <gazebo reference="l_arm_shy">
    <cfmDamping>1</cfmDamping>
  </gazebo>
  <gazebo reference="l_arm_wry">
    <cfmDamping>1</cfmDamping>
  </gazebo>
  <gazebo reference="l_leg_kny">
    <cfmDamping>1</cfmDamping>
  </gazebo>
  <gazebo reference="l_leg_hpy">
    <cfmDamping>1</cfmDamping>
  </gazebo>
  <gazebo reference="l_leg_hpx">
    <cfmDamping>1</cfmDamping>
  </gazebo>
  <gazebo reference="l_leg_aky">
    <cfmDamping>1</cfmDamping>
  </gazebo>
  <gazebo reference="l_leg_hpz">
    <cfmDamping>1</cfmDamping>
  </gazebo>
  <gazebo reference="neck_ry">
    <cfmDamping>1</cfmDamping>
  </gazebo>
  <gazebo reference="r_arm_elx">
    <cfmDamping>1</cfmDamping>
  </gazebo>
  <gazebo reference="r_arm_ely">
    <cfmDamping>1</cfmDamping>
  </gazebo>
  <gazebo reference="r_arm_wrx">
    <cfmDamping>1</cfmDamping>
  </gazebo>
  <gazebo reference="r_arm_shx">
    <cfmDamping>1</cfmDamping>
  </gazebo>
  <gazebo reference="r_arm_shy">
    <cfmDamping>1</cfmDamping>
  </gazebo>
  <gazebo reference="r_arm_wry">
    <cfmDamping>1</cfmDamping>
  </gazebo>
  <gazebo reference="r_leg_kny">
    <cfmDamping>1</cfmDamping>
  </gazebo>
  <gazebo reference="r_leg_hpy">
    <cfmDamping>1</cfmDamping>
  </gazebo>
  <gazebo reference="r_leg_hpx">
    <cfmDamping>1</cfmDamping>
  </gazebo>
  <gazebo reference="r_leg_aky">
    <cfmDamping>1</cfmDamping>
  </gazebo>
  <gazebo reference="r_leg_hpz">
    <cfmDamping>1</cfmDamping>
  </gazebo>
  <gazebo reference="r_situational_awareness_camera_link">
    <sensor name="r_situational_awareness_camera_sensor" type="camera">
      <update_rate>60.0</update_rate>
      <camera name="r_situational_awareness_camera">
        <pose>0 0 0 0 0 0</pose>
        <!-- Spec sheet says 185deg HFOV @ 1280x1024pi @ 60 hz.
             Don't think most GPU's can achieve this at real-time right now.
        <horizontal_fov>3.22885912</horizontal_fov>
        -->
        <horizontal_fov>2.0</horizontal_fov>
        <image>
          <width>1280</width>
          <height>1024</height>
          <format>R8G8B8</format>
        </image>
        <clip>
          <near>0.02</near>
          <far>300</far>
        </clip>
        <noise>
          <type>gaussian</type>
          <!-- Noise is sampled independently per pixel on each frame.  
               That pixel's noise value is added to each of its color
               channels, which at that point lie in the range [0,1].
               The stddev value of 0.007 is based on experimental data 
               from a camera in a Sandia hand pointed at a static scene
               in a couple of different lighting conditions.  -->
          <mean>0.0</mean>
          <stddev>0.007</stddev>
        </noise>
      </camera>
      <plugin filename="libgazebo_ros_camera.so" name="r_situational_awareness_camera_controller">
        <alwaysOn>true</alwaysOn>
        <updateRate>0.0</updateRate>
        <cameraName>r_situational_awareness_camera</cameraName>
        <imageTopicName>image_raw</imageTopicName>
        <cameraInfoTopicName>camera_info</cameraInfoTopicName>
        <frameName>r_situational_awareness_camera_optical_frame</frameName>
        <hackBaseline>0.07</hackBaseline>
        <distortionK1>0.0</distortionK1>
        <distortionK2>0.0</distortionK2>
        <distortionK3>0.0</distortionK3>
        <distortionT1>0.0</distortionT1>
        <distortionT2>0.0</distortionT2>
      </plugin>
    </sensor>
  </gazebo>
  <gazebo reference="l_situational_awareness_camera_link">
    <sensor name="l_situational_awareness_camera_sensor" type="camera">
      <update_rate>60.0</update_rate>
      <camera name="l_situational_awareness_camera">
        <pose>0 0 0 0 0 0</pose>
        <!-- Spec sheet says 185deg HFOV @ 1280x1024pi @ 60 hz.
             Don't think most GPU's can achieve this at real-time right now.
        <horizontal_fov>3.22885912</horizontal_fov>
        -->
        <horizontal_fov>2.0</horizontal_fov>
        <image>
          <width>1280</width>
          <height>1024</height>
          <format>R8G8B8</format>
        </image>
        <clip>
          <near>0.02</near>
          <far>300</far>
        </clip>
        <noise>
          <type>gaussian</type>
          <!-- Noise is sampled independently per pixel on each frame.  
               That pixel's noise value is added to each of its color
               channels, which at that point lie in the range [0,1].
               The stddev value of 0.007 is based on experimental data 
               from a camera in a Sandia hand pointed at a static scene
               in a couple of different lighting conditions.  -->
          <mean>0.0</mean>
          <stddev>0.007</stddev>
        </noise>
      </camera>
      <plugin filename="libgazebo_ros_camera.so" name="l_situational_awareness_camera_controller">
        <alwaysOn>true</alwaysOn>
        <updateRate>0.0</updateRate>
        <cameraName>l_situational_awareness_camera</cameraName>
        <imageTopicName>image_raw</imageTopicName>
        <cameraInfoTopicName>camera_info</cameraInfoTopicName>
        <frameName>l_situational_awareness_camera_optical_frame</frameName>
        <hackBaseline>0.07</hackBaseline>
        <distortionK1>0.0</distortionK1>
        <distortionK2>0.0</distortionK2>
        <distortionK3>0.0</distortionK3>
        <distortionT1>0.0</distortionT1>
        <distortionT2>0.0</distortionT2>
      </plugin>
    </sensor>
  </gazebo>
  <transmission name="head_hokuyo_trans" type="pr2_mechanism_model/SimpleTransmission">
    <joint name="hokuyo_joint"/>
    <actuator name="hokuyo_motor"/>
    <mechanicalReduction>1</mechanicalReduction>
  </transmission>
  <transmission name="back_bkz_trans" type="pr2_mechanism_model/SimpleTransmission">
    <joint name="back_bkz"/>
    <actuator name="back_bkz_motor"/>
    <mechanicalReduction>1</mechanicalReduction>
  </transmission>
  <transmission name="back_bky_trans" type="pr2_mechanism_model/SimpleTransmission">
    <actuator name="back_bky_motor"/>
    <joint name="back_bky"/>
    <mechanicalReduction>1</mechanicalReduction>
  </transmission>
  <transmission name="back_bkx_trans" type="pr2_mechanism_model/SimpleTransmission">
    <actuator name="back_bkx_motor"/>
    <joint name="back_bkx"/>
    <mechanicalReduction>1</mechanicalReduction>
  </transmission>
  <transmission name="l_arm_elx_trans" type="pr2_mechanism_model/SimpleTransmission">
    <actuator name="l_arm_elx_motor"/>
    <joint name="l_arm_elx"/>
    <mechanicalReduction>1</mechanicalReduction>
  </transmission>
  <transmission name="l_arm_ely_trans" type="pr2_mechanism_model/SimpleTransmission">
    <actuator name="l_arm_ely_motor"/>
    <joint name="l_arm_ely"/>
    <mechanicalReduction>1</mechanicalReduction>
  </transmission>
  <transmission name="l_arm_wrx_trans" type="pr2_mechanism_model/SimpleTransmission">
    <actuator name="l_arm_wrx_motor"/>
    <joint name="l_arm_wrx"/>
    <mechanicalReduction>1</mechanicalReduction>
  </transmission>
  <transmission name="l_arm_shx_trans" type="pr2_mechanism_model/SimpleTransmission">
    <actuator name="l_arm_shx_motor"/>
    <joint name="l_arm_shx"/>
    <mechanicalReduction>1</mechanicalReduction>
  </transmission>
  <transmission name="l_arm_shy_trans" type="pr2_mechanism_model/SimpleTransmission">
    <actuator name="l_arm_shy_motor"/>
    <joint name="l_arm_shy"/>
    <mechanicalReduction>1</mechanicalReduction>
  </transmission>
  <transmission name="l_arm_wry_trans" type="pr2_mechanism_model/SimpleTransmission">
    <actuator name="l_arm_wry_motor"/>
    <joint name="l_arm_wry"/>
    <mechanicalReduction>1</mechanicalReduction>
  </transmission>
  <transmission name="l_leg_kny_trans" type="pr2_mechanism_model/SimpleTransmission">
    <actuator name="l_leg_kny_motor"/>
    <joint name="l_leg_kny"/>
    <mechanicalReduction>1</mechanicalReduction>
  </transmission>
  <transmission name="l_leg_akx_trans" type="pr2_mechanism_model/SimpleTransmission">
    <actuator name="l_leg_akx_motor"/>
    <joint name="l_leg_akx"/>
    <mechanicalReduction>1</mechanicalReduction>
  </transmission>
  <transmission name="l_leg_hpy_trans" type="pr2_mechanism_model/SimpleTransmission">
    <actuator name="l_leg_hpy_motor"/>
    <joint name="l_leg_hpy"/>
    <mechanicalReduction>1</mechanicalReduction>
  </transmission>
  <transmission name="l_leg_hpx_trans" type="pr2_mechanism_model/SimpleTransmission">
    <actuator name="l_leg_hpx_motor"/>
    <joint name="l_leg_hpx"/>
    <mechanicalReduction>1</mechanicalReduction>
  </transmission>
  <transmission name="l_leg_aky_trans" type="pr2_mechanism_model/SimpleTransmission">
    <actuator name="l_leg_aky_motor"/>
    <joint name="l_leg_aky"/>
    <mechanicalReduction>1</mechanicalReduction>
  </transmission>
  <transmission name="l_leg_hpz_trans" type="pr2_mechanism_model/SimpleTransmission">
    <actuator name="l_leg_hpz_motor"/>
    <joint name="l_leg_hpz"/>
    <mechanicalReduction>1</mechanicalReduction>
  </transmission>
  <transmission name="neck_ry_trans" type="pr2_mechanism_model/SimpleTransmission">
    <actuator name="neck_ry_motor"/>
    <joint name="neck_ry"/>
    <mechanicalReduction>1</mechanicalReduction>
  </transmission>
  <transmission name="r_arm_elx_trans" type="pr2_mechanism_model/SimpleTransmission">
    <actuator name="r_arm_elx_motor"/>
    <joint name="r_arm_elx"/>
    <mechanicalReduction>1</mechanicalReduction>
  </transmission>
  <transmission name="r_arm_ely_trans" type="pr2_mechanism_model/SimpleTransmission">
    <actuator name="r_arm_ely_motor"/>
    <joint name="r_arm_ely"/>
    <mechanicalReduction>1</mechanicalReduction>
  </transmission>
  <transmission name="r_arm_wrx_trans" type="pr2_mechanism_model/SimpleTransmission">
    <actuator name="r_arm_wrx_motor"/>
    <joint name="r_arm_wrx"/>
    <mechanicalReduction>1</mechanicalReduction>
  </transmission>
  <transmission name="r_arm_shx_trans" type="pr2_mechanism_model/SimpleTransmission">
    <actuator name="r_arm_shx_motor"/>
    <joint name="r_arm_shx"/>
    <mechanicalReduction>1</mechanicalReduction>
  </transmission>
  <transmission name="r_arm_shy_trans" type="pr2_mechanism_model/SimpleTransmission">
    <actuator name="r_arm_shy_motor"/>
    <joint name="r_arm_shy"/>
    <mechanicalReduction>1</mechanicalReduction>
  </transmission>
  <transmission name="r_arm_wry_trans" type="pr2_mechanism_model/SimpleTransmission">
    <actuator name="r_arm_wry_motor"/>
    <joint name="r_arm_wry"/>
    <mechanicalReduction>1</mechanicalReduction>
  </transmission>
  <transmission name="r_leg_kny_trans" type="pr2_mechanism_model/SimpleTransmission">
    <actuator name="r_leg_kny_motor"/>
    <joint name="r_leg_kny"/>
    <mechanicalReduction>1</mechanicalReduction>
  </transmission>
  <transmission name="r_leg_akx_trans" type="pr2_mechanism_model/SimpleTransmission">
    <actuator name="r_leg_akx_motor"/>
    <joint name="r_leg_akx"/>
    <mechanicalReduction>1</mechanicalReduction>
  </transmission>
  <transmission name="r_leg_hpy_trans" type="pr2_mechanism_model/SimpleTransmission">
    <actuator name="r_leg_hpy_motor"/>
    <joint name="r_leg_hpy"/>
    <mechanicalReduction>1</mechanicalReduction>
  </transmission>
  <transmission name="r_leg_hpx_trans" type="pr2_mechanism_model/SimpleTransmission">
    <actuator name="r_leg_hpx_motor"/>
    <joint name="r_leg_hpx"/>
    <mechanicalReduction>1</mechanicalReduction>
  </transmission>
  <transmission name="r_leg_aky_trans" type="pr2_mechanism_model/SimpleTransmission">
    <actuator name="r_leg_aky_motor"/>
    <joint name="r_leg_aky"/>
    <mechanicalReduction>1</mechanicalReduction>
  </transmission>
  <transmission name="r_leg_hpz_trans" type="pr2_mechanism_model/SimpleTransmission">
    <actuator name="r_leg_hpz_motor"/>
    <joint name="r_leg_hpz"/>
    <mechanicalReduction>1</mechanicalReduction>
  </transmission>
  <link name="head">
    <inertial>
      <origin rpy="0 0 0" xyz="-0.075493 3.3383E-05 0.02774"/>
      <mass value="1.41984"/>
      <!--<inertia iyy="0.0041178" ixy="-1.5797E-06" iyz="-6.8415E-07" ixx="0.0039688" ixz="-0.00089293" izz="0.0035243" />-->
      <inertia ixx="0.0036053766" ixy="-1.5797E-06" ixz="-0.00089293" iyy="0.002080106" iyz="-6.8415E-07" izz="0.001782985"/>
    </inertial>
    <visual>
      <origin rpy="0 0 0" xyz="0 0 0"/>
      <geometry>
        <mesh filename="package://multisense_sl_description/meshes/head.dae"/>
      </geometry>
      <material name="">
        <color rgba="0.9098 0.44314 0.031373 1"/>
      </material>
    </visual>
    <collision group="default">
      <origin rpy="0 0 0" xyz="-0.0503 0 -0.00195"/>
      <geometry>
        <box size="0.1311 0.12 0.0591"/>
      </geometry>
    </collision>
    <collision group="other">
      <origin rpy="0 0 0" xyz="-0.093 0 0.0868"/>
      <geometry>
        <box size="0.0468 0.12 0.1184"/>
      </geometry>
    </collision>
  </link>
  <link name="hokuyo_link">
    <inertial>
      <origin rpy="0 0 0" xyz="0.012428 0.0004084 -0.0041835"/>
      <mass value="0.057654"/>
      <!--<inertia iyy="4.2412E-05" ixy="4.9927E-08" iyz="-9.8165E-09" ixx="3.7174E-05" ixz="1.1015E-05" izz="4.167E-05" />-->
      <!-- distribute iyy and izz equally between head and hokuyo_link given it's constrainted anyways -->
      <!-- tweak ixx of hokuyo so it's larger, 1/10th of head ixx. -->
      <inertia ixx="0.0004005974" ixy="4.9927E-08" ixz="1.1015E-05" iyy="0.002080106" iyz="-9.8165E-09" izz="0.001782985"/>
    </inertial>
    <visual>
      <!--origin xyz="0.065774 -0.001163 -0.08809" rpy="0 0 0" /-->
      <!--origin xyz="0.045 -0.001163 -0.08809" rpy="-0.314 0 0" /-->
      <origin rpy="-0.314 0 0" xyz="0.045 -0.0261018277 -0.08342369"/>
      <geometry>
        <mesh filename="package://multisense_sl_description/meshes/head_camera.dae"/>
      </geometry>
      <material name="">
        <color rgba="0.72941 0.35686 0.023529 1"/>
      </material>
    </visual>
    <collision group="default">
      <origin rpy="0 0 0" xyz="0.01885 0 -0.02119"/>
      <geometry>
        <box size="0.08 0.06 0.04238"/>
      </geometry>
    </collision>
    <collision group="other">
      <origin rpy="0 0 0" xyz="0.03 0 0.0235"/>
      <geometry>
        <cylinder length="0.047" radius="0.024425"/>
      </geometry>
    </collision>
  </link>
  <gazebo reference="head">
    <mu1>0.9</mu1>
    <mu2>0.9</mu2>
  </gazebo>
  <gazebo reference="hokuyo_link">
    <mu1>0.9</mu1>
    <mu2>0.9</mu2>
  </gazebo>
  <joint name="hokuyo_joint" type="continuous">
    <origin rpy="0 0 0" xyz="-0.0446 0 0.0880"/>
    <parent link="head"/>
    <child link="hokuyo_link"/>
    <axis xyz="1 0 0"/>
    <dynamics damping="0.01" friction="0"/>
  </joint>
  <joint name="head_hokuyo_joint" type="fixed">
    <axis xyz="0 1 0"/>
    <origin rpy="0 0 0" xyz="0.03 0 0.015"/>
    <parent link="hokuyo_link"/>
    <child link="head_hokuyo_frame"/>
  </joint>
  <link name="head_hokuyo_frame">
    <inertial>
      <mass value="1e-5"/>
      <!-- collocate with parent link and remove mass from it -->
      <origin rpy="0 0 0" xyz="0.042428 0.0004084 0.0108165"/>
      <inertia ixx="1e-6" ixy="0" ixz="0" iyy="1e-6" iyz="0" izz="1e-6"/>
    </inertial>
  </link>
  <gazebo reference="head_hokuyo_frame">
    <sensor name="head_hokuyo_sensor" type="gpu_ray">
      <pose>0 0 0 0 0 0</pose>
      <visualize>false</visualize>
      <update_rate>40</update_rate>
      <ray>
        <scan>
          <horizontal>
            <samples>720</samples>
            <resolution>1</resolution>
            <min_angle>-1.570796</min_angle>
            <max_angle>1.570796</max_angle>
          </horizontal>
        </scan>
        <range>
          <min>0.10</min>
          <max>30.0</max>
          <resolution>0.01</resolution>
        </range>
        <noise>
          <type>gaussian</type>
          <!-- Noise parameters based on published spec for Hokuyo laser
               achieving "+-30mm" accuracy at range < 10m.  A mean of 0.0m and
               stddev of 0.01m will put 99.7% of samples within 0.03m of the true
               reading. -->
          <mean>0.0</mean>
          <stddev>0.01</stddev>
        </noise>
      </ray>
      <plugin filename="libgazebo_ros_gpu_laser.so" name="gazebo_ros_head_hokuyo_controller">
        <topicName>/multisense_sl/laser/scan</topicName>
        <frameName>head_hokuyo_frame</frameName>
      </plugin>
    </sensor>
  </gazebo>
  <joint name="left_camera_frame_joint" type="fixed">
    <!-- optical frame collocated with tilting DOF -->
    <origin xyz="0.0 0.035 -0.002"/>
    <parent link="head"/>
    <child link="left_camera_frame"/>
  </joint>
  <link name="left_camera_frame">
    <inertial>
      <mass value="1e-5"/>
      <!-- collocate with parent link and remove mass from it -->
      <origin xyz="-0.075493 0.035033383 0.02574"/>
      <inertia ixx="1e-6" ixy="0" ixz="0" iyy="1e-6" iyz="0" izz="1e-6"/>
    </inertial>
  </link>
  <joint name="left_camera_optical_frame_joint" type="fixed">
    <origin rpy="-1.5708 0.0 -1.5708" xyz="0 0 0"/>
    <parent link="left_camera_frame"/>
    <child link="left_camera_optical_frame"/>
  </joint>
  <link name="left_camera_optical_frame"/>
  <gazebo reference="left_camera_frame">
    <sensor name="stereo_camera" type="multicamera">
      <!-- see MultiSenseSLPlugin.h for available modes -->
      <update_rate>30.0</update_rate>
      <camera name="left">
        <!-- Spec sheet says 80deg X 45deg @ 1024x544pix.  Based on feedback
             from teams, we're instead doing 80deg X 80deg @ 800x800pix. -->
        <horizontal_fov>1.3962634</horizontal_fov>
        <image>
          <width>800</width>
          <height>800</height>
          <format>R8G8B8</format>
        </image>
        <clip>
          <near>0.02</near>
          <far>300</far>
        </clip>
        <noise>
          <type>gaussian</type>
          <!-- Noise is sampled independently per pixel on each frame.  
               That pixel's noise value is added to each of its color
               channels, which at that point lie in the range [0,1].
               The stddev value of 0.007 is based on experimental data 
               from a camera in a Sandia hand pointed at a static scene
               in a couple of different lighting conditions.  -->
          <mean>0.0</mean>
          <stddev>0.007</stddev>
        </noise>
      </camera>
      <camera name="right">
        <pose>0 -0.07 0 0 0 0</pose>
        <!-- Spec sheet says 80deg X 45deg @ 1024x544pix.  Based on feedback
             from teams, we're instead doing 80deg X 80deg @ 800x800pix. -->
        <horizontal_fov>1.3962634</horizontal_fov>
        <image>
          <width>800</width>
          <height>800</height>
          <format>R8G8B8</format>
        </image>
        <clip>
          <near>0.02</near>
          <far>300</far>
        </clip>
        <noise>
          <type>gaussian</type>
          <!-- Noise is sampled independently per pixel on each frame.  
               That pixel's noise value is added to each of its color
               channels, which at that point lie in the range [0,1].
               The stddev value of 0.007 is based on experimental data 
               from a camera in a Sandia hand pointed at a static scene
               in a couple of different lighting conditions.  -->
          <mean>0.0</mean>
          <stddev>0.007</stddev>
        </noise>
      </camera>
      <plugin filename="libgazebo_ros_multicamera.so" name="stereo_camera_controller">
        <alwaysOn>true</alwaysOn>
        <updateRate>0.0</updateRate>
        <cameraName>multisense_sl/camera</cameraName>
        <imageTopicName>image_raw</imageTopicName>
        <cameraInfoTopicName>camera_info</cameraInfoTopicName>
        <frameName>left_camera_optical_frame</frameName>
        <!--<rightFrameName>right_camera_optical_frame</rightFrameName>-->
        <hackBaseline>0.07</hackBaseline>
        <distortionK1>0.0</distortionK1>
        <distortionK2>0.0</distortionK2>
        <distortionK3>0.0</distortionK3>
        <distortionT1>0.0</distortionT1>
        <distortionT2>0.0</distortionT2>
      </plugin>
    </sensor>
  </gazebo>
  <joint name="right_camera_frame_joint" type="fixed">
    <origin xyz="0.0 -0.035 -0.002"/>
    <parent link="head"/>
    <child link="right_camera_frame"/>
  </joint>
  <link name="right_camera_frame">
    <inertial>
      <mass value="1e-5"/>
      <!-- collocate with parent link and remove mass from it -->
      <origin xyz="-0.075493 -0.034966617 0.02574"/>
      <inertia ixx="1e-6" ixy="0" ixz="0" iyy="1e-6" iyz="0" izz="1e-6"/>
    </inertial>
  </link>
  <joint name="right_camera_optical_frame_joint" type="fixed">
    <origin rpy="-1.5708 0.0 -1.5708" xyz="0 0 0"/>
    <parent link="right_camera_frame"/>
    <child link="right_camera_optical_frame"/>
  </joint>
  <link name="right_camera_optical_frame"/>
  <joint name="center_top_led_frame_joint" type="fixed">
    <origin xyz="0.01125 0.0 0.0105"/>
    <parent link="head"/>
    <child link="center_top_led_frame"/>
  </joint>
  <link name="center_top_led_frame">
    <inertial>
      <mass value="1e-5"/>
      <!-- collocate with parent link and remove mass from it -->
      <origin rpy="0 0 0" xyz="-0.064243 0.000033383 0.03824"/>
      <inertia ixx="1e-6" ixy="0" ixz="0" iyy="1e-6" iyz="0" izz="1e-6"/>
    </inertial>
  </link>
  <joint name="center_bottom_led_frame_joint" type="fixed">
    <origin xyz="0.01125 0.0 -0.0155"/>
    <parent link="head"/>
    <child link="center_bottom_led_frame"/>
  </joint>
  <link name="center_bottom_led_frame">
    <inertial>
      <mass value="1e-5"/>
      <!-- collocate with parent link and remove mass from it -->
      <origin rpy="0 0 0" xyz="-0.064243 0.000033383 0.01224"/>
      <inertia ixx="1e-6" ixy="0" ixz="0" iyy="1e-6" iyz="0" izz="1e-6"/>
    </inertial>
  </link>
  <joint name="left_led_frame_joint" type="fixed">
    <origin rpy="0 -0.15 0.53" xyz="-0.01443 0.07452 0.050346"/>
    <parent link="head"/>
    <child link="left_led_frame"/>
  </joint>
  <link name="left_led_frame">
    <inertial>
      <mass value="1e-5"/>
      <!-- collocate with parent link and remove mass from it -->
      <origin rpy="0 -0.15 0.53" xyz="-0.089923 0.074553383 0.078086"/>
      <inertia ixx="1e-6" ixy="0" ixz="0" iyy="1e-6" iyz="0" izz="1e-6"/>
    </inertial>
  </link>
  <joint name="right_led_frame_joint" type="fixed">
    <origin rpy="0 -0.15 -0.53" xyz="-0.01443 -0.07452 0.050346"/>
    <parent link="head"/>
    <child link="right_led_frame"/>
  </joint>
  <link name="right_led_frame">
    <inertial>
      <mass value="1e-5"/>
      <!-- collocate with parent link and remove mass from it -->
      <origin rpy="0 -0.15 -0.53" xyz="-0.089923 -0.074486617 0.07908"/>
      <inertia ixx="1e-6" ixy="0" ixz="0" iyy="1e-6" iyz="0" izz="1e-6"/>
    </inertial>
  </link>
  <gazebo>
    <plugin filename="libMultiSenseSLPlugin.so" name="multisense_plugin"/>
  </gazebo>
  <link name="head_imu_link">
    <inertial>
      <mass value="1e-5"/>
      <!-- collocate with parent link and remove mass from it -->
      <origin rpy="0 0 0" xyz="-0.122993 0.035033383 0.02774"/>
      <inertia ixx="1e-6" ixy="0" ixz="0" iyy="1e-6" iyz="0" izz="1e-6"/>
    </inertial>
    <visual>
      <origin rpy="0 0 0" xyz="0 0 0"/>
      <geometry>
        <box size="0.01 0.01 0.01"/>
      </geometry>
    </visual>
  </link>
  <joint name="head_imu_joint" type="fixed">
    <parent link="head"/>
    <child link="head_imu_link"/>
    <!-- putting it at the same z-level as the stereo -->
    <origin rpy="0 0 0" xyz="-0.0475 0.035 0.0"/>
  </joint>
  <gazebo reference="head_imu_link">
    <!-- this is expected to be reparented to head with appropriate offset
         when head_imu_link is reduced by fixed joint reduction -->
    <!-- todo: this is working with gazebo 1.4, need to write a unit test -->
    <sensor name="head_imu_sensor" type="imu">
      <always_on>1</always_on>
      <update_rate>1000.0</update_rate>
      <imu>
        <noise>
          <type>gaussian</type>
          <!-- Noise parameters from Boston Dynamics
               (http://gazebosim.org/wiki/Sensor_noise):
                 rates (rad/s): mean=0, stddev=2e-4
                 accels (m/s/s): mean=0, stddev=1.7e-2
                 rate bias (rad/s): 5e-6 - 1e-5
                 accel bias (m/s/s): 1e-1
               Experimentally, simulation provide rates with noise of
               about 1e-3 rad/s and accels with noise of about 1e-1 m/s/s.
               So we don't expect to see the noise unless number of inner iterations
               are increased.

               We will add bias.  In this model, bias is sampled once for rates
               and once for accels at startup; the sign (negative or positive)
               of each bias is then switched with equal probability.  Thereafter,
               the biases are fixed additive offsets.  We choose
               bias means and stddevs to produce biases close to the provided
               data. -->
          <rate>
            <mean>0.0</mean>
            <stddev>2e-4</stddev>
            <bias_mean>0.0000075</bias_mean>
            <bias_stddev>0.0000008</bias_stddev>
          </rate>
          <accel>
            <mean>0.0</mean>
            <stddev>1.7e-2</stddev>
            <bias_mean>0.1</bias_mean>
            <bias_stddev>0.001</bias_stddev>
          </accel>
        </noise>
      </imu>
    </sensor>
  </gazebo>
  <gazebo>
    <!-- include plugin for sandia hands -->
    <plugin filename="libSandiaHandPlugin.so" name="sandia_hand_plugin"/>
  </gazebo>
</robot>
